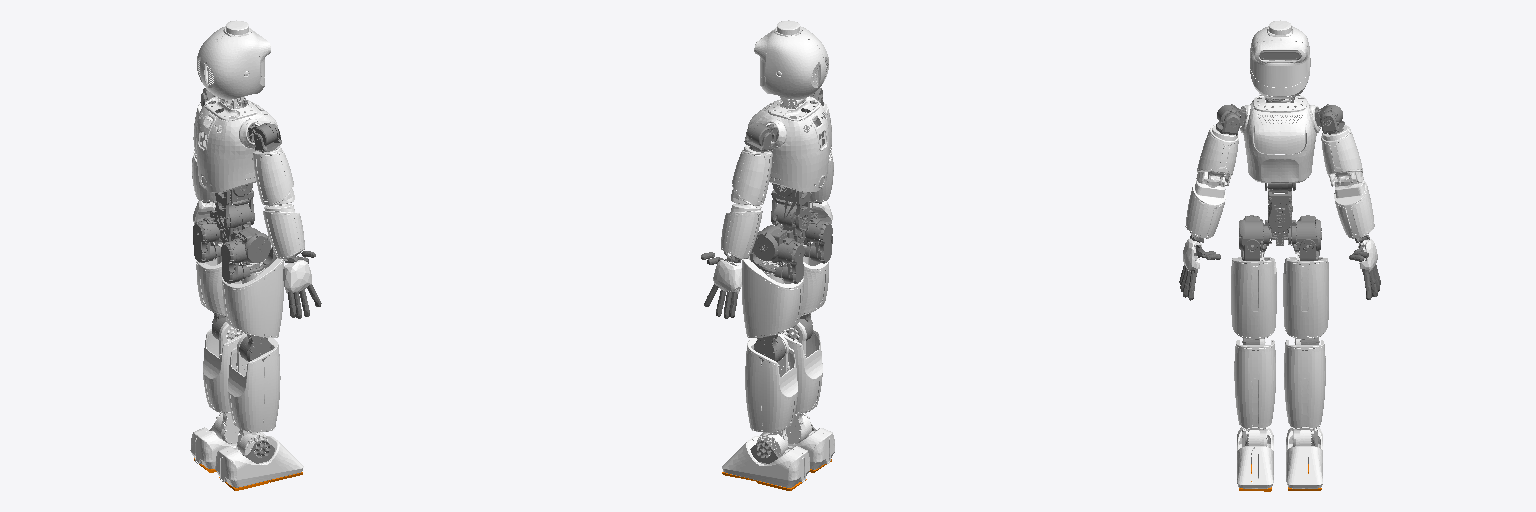
--- Render facts (derived) ---
Views: 3 orthographic renders of the robot side by side, from view 1: azimuth 30°, elevation 25°; view 2: azimuth 150°, elevation 25°; view 3: azimuth 270°, elevation 25°.
Model ergoCub with 204 links and 203 joints (57 revolute, 146 fixed), rooted at root_link, posed every joint at zero.
Links seen in each view (by area): view 1: chest, head, r_lower_leg, r_hip_3, l_lower_leg, r_ankle_2, r_upper_arm, r_forearm, l_hip_3, r_hip_2, l_ankle_2, l_hip_2 (+5 smaller); view 2: chest, head, l_lower_leg, l_hip_3, r_lower_leg, l_ankle_2, l_upper_arm, l_forearm, r_hip_3, l_hip_2, r_ankle_2, r_hip_2 (+5 smaller); view 3: chest, l_lower_leg, r_lower_leg, head, r_hip_3, l_hip_3, r_forearm, l_forearm, r_ankle_2, l_ankle_2, l_upper_arm, r_upper_arm (+4 smaller).
Boxes of the visible links, x1,y1,x2,y2 form: chest: [196, 96, 277, 192]; head: [197, 20, 270, 99]; r_lower_leg: [228, 334, 280, 455]; r_hip_3: [222, 247, 283, 337]; l_lower_leg: [203, 321, 244, 443]; r_ankle_2: [215, 436, 303, 487]; r_upper_arm: [253, 146, 294, 205]; r_forearm: [263, 203, 304, 258]; l_hip_3: [196, 242, 233, 315]; r_hip_2: [221, 236, 274, 283]; l_ankle_2: [190, 427, 265, 468]; l_hip_2: [193, 219, 221, 262]; chest: [748, 96, 828, 192]; head: [754, 20, 828, 99]; l_lower_leg: [745, 334, 797, 455]; l_hip_3: [742, 256, 803, 337]; r_lower_leg: [781, 322, 822, 444]; l_ankle_2: [722, 436, 809, 487]; l_upper_arm: [731, 145, 772, 205]; l_forearm: [721, 203, 762, 258]; r_hip_3: [792, 242, 828, 315]; l_hip_2: [750, 240, 804, 283]; r_ankle_2: [760, 428, 834, 469]; r_hip_2: [802, 218, 832, 263]; chest: [1239, 95, 1320, 183]; l_lower_leg: [1284, 339, 1325, 446]; r_lower_leg: [1234, 339, 1275, 446]; head: [1250, 20, 1310, 98]; r_hip_3: [1231, 251, 1276, 339]; l_hip_3: [1283, 251, 1328, 339]; r_forearm: [1185, 172, 1225, 238]; l_forearm: [1334, 172, 1374, 238]; r_ankle_2: [1237, 427, 1273, 488]; l_ankle_2: [1286, 427, 1322, 488]; l_upper_arm: [1321, 125, 1363, 186]; r_upper_arm: [1196, 125, 1238, 185].
Size in the robot's own frame: 0.2875 by 0.6045 by 1.47 metres.
66 mesh visuals loaded from 66 distinct referenced files (66 OBJ).

The robot description file, URDF, robot "ergoCub":
<?xml version="1.0"?>
<robot name="ergoCub">
  <link name="root_link">
    <inertial>
      <mass value="2.823751482824641"/>
      <origin xyz="0.0024748962432214403 -1.050794470993344e-4 0.023450368787955644" rpy="0 -0 0"/>
      <inertia ixx="0.005630606285299466" ixy="1.4369039688385168e-6" ixz="2.329934099458601e-5" iyy="0.004380033669258687" iyz="1.4098441290533537e-5" izz="0.003616681010808376"/>
    </inertial>
    <visual>
      <origin xyz="0 0 0" rpy="0 -0 0"/>
      <geometry>
        <mesh filename="package://ergoCub/meshes/simmechanics/sim_ecub_1-1_root_link.obj" scale="0.001 0.001 0.001"/>
      </geometry>
      <material name="">
        <color rgba="0.6 0.6 0.6 1"/>
      </material>
    </visual>
    <collision>
      <origin xyz="0 0 0" rpy="0 -0 0"/>
      <geometry>
        <box size="0 0 0"/>
      </geometry>
    </collision>
  </link>
  <joint name="l_hip_pitch" type="revolute">
    <origin xyz="0.02109999999999964 0.050500000000000836 1.942890293094024e-16" rpy="3.958535957527503e-15 3.810968172190701e-15 1.167434911886406e-16"/>
    <axis xyz="-5.772831379991284e-17 -1 -1.3843833381666392e-17"/>
    <parent link="root_link"/>
    <child link="l_hip_1"/>
    <limit lower="-0.7504915783575618" upper="1.7976891295541595" effort="1e+9" velocity="1e+9"/>
    <dynamics damping="2" friction="0"/>
  </joint>
  <link name="l_hip_1">
    <inertial>
      <mass value="2.231768868859629"/>
      <origin xyz="-0.0040154224851623455 0.028247280560774652 -6.811143992383195e-4" rpy="0 -0 0"/>
      <inertia ixx="0.002210921814931002" ixy="5.971255499379551e-5" ixz="-1.5432160879022988e-5" iyy="0.002695326128467937" iyz="-5.838535051658118e-6" izz="0.0024610381641843883"/>
    </inertial>
    <visual>
      <origin xyz="0 0 0" rpy="0 -0 0"/>
      <geometry>
        <mesh filename="package://ergoCub/meshes/simmechanics/sim_ecub_1-1_l_hip_1.obj" scale="0.001 0.001 0.001"/>
      </geometry>
      <material name="">
        <color rgba="0.6 0.6 0.6 1"/>
      </material>
    </visual>
    <collision>
      <origin xyz="0 0 0" rpy="0 -0 0"/>
      <geometry>
        <box size="0 0 0"/>
      </geometry>
    </collision>
  </link>
  <joint name="r_hip_pitch" type="revolute">
    <origin xyz="0.021099999999999643 -0.05049999999999917 -2.220446049250313e-16" rpy="3.986223624290839e-15 9.012328668422501e-14 4.978996250550603e-17"/>
    <axis xyz="-1.0880513989386065e-16 -1 1.384383338166008e-17"/>
    <parent link="root_link"/>
    <child link="r_hip_1"/>
    <limit lower="-0.7504915783575618" upper="1.7976891295541595" effort="1e+9" velocity="1e+9"/>
    <dynamics damping="2" friction="0"/>
  </joint>
  <link name="r_hip_1">
    <inertial>
      <mass value="2.2320852637398954"/>
      <origin xyz="-0.004032117730258793 -0.028249385885545365 -6.739019720393702e-4" rpy="0 -0 0"/>
      <inertia ixx="0.00221225947743564" ixy="-6.126720536020865e-5" ixz="-1.5035655169601288e-5" iyy="0.002695545891317729" iyz="6.443355522460266e-6" izz="0.0024608876750051726"/>
    </inertial>
    <visual>
      <origin xyz="0 0 0" rpy="0 -0 0"/>
      <geometry>
        <mesh filename="package://ergoCub/meshes/simmechanics/sim_ecub_1-1_r_hip_1.obj" scale="0.001 0.001 0.001"/>
      </geometry>
      <material name="">
        <color rgba="0.6 0.6 0.6 1"/>
      </material>
    </visual>
    <collision>
      <origin xyz="0 0 0" rpy="0 -0 0"/>
      <geometry>
        <box size="0 0 0"/>
      </geometry>
    </collision>
  </link>
  <joint name="torso_roll" type="revolute">
    <origin xyz="-2.23890229767886e-18 -5.551115123142428e-20 0.060500000000000095" rpy="0 -2.2470258116354473e-44 5.656623812198896e-30"/>
    <axis xyz="-1 0 1.4239886692466155e-15"/>
    <parent link="root_link"/>
    <child link="torso_1"/>
    <limit lower="-0.4014257279586958" upper="0.4014257279586958" effort="1e+9" velocity="1e+9"/>
    <dynamics damping="2" friction="0"/>
  </joint>
  <link name="torso_1">
    <inertial>
      <mass value="2.0645667"/>
      <origin xyz="-0.00963997362197503 6.168494736287859e-4 0.08244231288506354" rpy="0 -0 0"/>
      <inertia ixx="0.007406085999999999" ixy="0" ixz="0" iyy="0.0059470732999999994" iyz="0" izz="0.0031780111"/>
    </inertial>
    <visual>
      <origin xyz="0 0 0" rpy="0 -0 0"/>
      <geometry>
        <mesh filename="package://ergoCub/meshes/simmechanics/sim_ecub_1-1_torso_1.obj" scale="0.001 0.001 0.001"/>
      </geometry>
      <material name="">
        <color rgba="0.6 0.6 0.6 1"/>
      </material>
    </visual>
    <collision>
      <origin xyz="0 0 0" rpy="0 -0 0"/>
      <geometry>
        <box size="0 0 0"/>
      </geometry>
    </collision>
  </link>
  <joint name="torso_pitch" type="revolute">
    <origin xyz="-7.30886630439206e-17 -4.930380657631324e-32 0.11800000000000001" rpy="3.9719461100401744e-15 2.710505431213761e-20 1.0587911275090697e-22"/>
    <axis xyz="1.058791184074231e-22 1 4.336808689942018e-19"/>
    <parent link="torso_1"/>
    <child link="torso_2"/>
    <limit lower="-0.3141592653589793" upper="0.7853981633974483" effort="1e+9" velocity="1e+9"/>
    <dynamics damping="2" friction="0"/>
  </joint>
  <link name="torso_2">
    <inertial>
      <mass value="0.7051627057068411"/>
      <origin xyz="0.0015724674776760373 0.0036223466761378907 0.026019504666210766" rpy="0 -0 0"/>
      <inertia ixx="0.0012590296877101025" ixy="4.1986239270733835e-6" ixz="-5.398163583772818e-6" iyy="6.675525890436374e-4" iyz="7.014302140884287e-5" izz="0.001145822810927014"/>
    </inertial>
    <visual>
      <origin xyz="0 0 0" rpy="0 -0 0"/>
      <geometry>
        <mesh filename="package://ergoCub/meshes/simmechanics/sim_ecub_1-1_torso_2.obj" scale="0.001 0.001 0.001"/>
      </geometry>
      <material name="">
        <color rgba="0.6 0.6 0.6 1"/>
      </material>
    </visual>
    <collision>
      <origin xyz="0 0 0" rpy="0 -0 0"/>
      <geometry>
        <box size="0 0 0"/>
      </geometry>
    </collision>
  </link>
  <joint name="torso_yaw" type="revolute">
    <origin xyz="7.32502235717738e-17 2.561326957877574e-16 0.0644699999999999" rpy="-3.971868545919581e-15 -4.385099568445115e-23 -3.1763738272196853e-22"/>
    <axis xyz="2.084864385226231e-15 -2.114127025714114e-15 -1"/>
    <parent link="torso_2"/>
    <child link="chest"/>
    <limit lower="-0.7504915783575618" upper="0.7504915783575618" effort="1e+9" velocity="1e+9"/>
    <dynamics damping="2" friction="0"/>
  </joint>
  <link name="chest">
    <inertial>
      <mass value="8.065471632648594"/>
      <origin xyz="-0.010721051678060345 -3.482064053382885e-4 0.07611063517438793" rpy="0 -0 0"/>
      <inertia ixx="0.048454754024617776" ixy="1.7611941682820642e-4" ixz="-3.124089280569708e-4" iyy="0.044938830524554475" iyz="-1.2962048932614557e-4" izz="0.030687687298016447"/>
    </inertial>
    <visual>
      <origin xyz="0 0 0" rpy="0 -0 0"/>
      <geometry>
        <mesh filename="package://ergoCub/meshes/simmechanics/sim_ecub_1-1_chest.obj" scale="0.001 0.001 0.001"/>
      </geometry>
      <material name="">
        <color rgba="1 1 1 1"/>
      </material>
    </visual>
    <collision>
      <origin xyz="0 0 0" rpy="0 -0 0"/>
      <geometry>
        <box size="0 0 0"/>
      </geometry>
    </collision>
  </link>
  <joint name="neck_pitch" type="revolute">
    <origin xyz="0.004861512347971912 4.1253975310307907e-16 0.22529999999999994" rpy="-1.541978321110266e-15 -2.0480667158215426e-15 -1.389802281096855e-15"/>
    <axis xyz="2.6472211157644926e-18 -1 -7.807858529815144e-16"/>
    <parent link="chest"/>
    <child link="neck_2"/>
    <limit lower="-0.5235987755982988" upper="0.3839724354387525" effort="1e+9" velocity="1e+9"/>
    <dynamics damping="2" friction="0"/>
  </joint>
  <link name="neck_2">
    <inertial>
      <mass value="0.12100314943032965"/>
      <origin xyz="-0.006305773955890982 3.0141314376407138e-5 0.006373188453183354" rpy="0 -0 0"/>
      <inertia ixx="4.5383766592166864e-5" ixy="-9.375752008423039e-8" ixz="8.622664755132213e-6" iyy="3.848306673536227e-5" iyz="4.870043501244136e-8" izz="3.7535538604448367e-5"/>
    </inertial>
    <visual>
      <origin xyz="0 0 0" rpy="0 -0 0"/>
      <geometry>
        <mesh filename="package://ergoCub/meshes/simmechanics/sim_ecub_1-1_head_neck_2.obj" scale="0.001 0.001 0.001"/>
      </geometry>
      <material name="">
        <color rgba="0.6 0.6 0.6 1"/>
      </material>
    </visual>
    <collision>
      <origin xyz="0 0 0" rpy="0 -0 0"/>
      <geometry>
        <box size="0 0 0"/>
      </geometry>
    </collision>
  </link>
  <joint name="l_shoulder_pitch" type="revolute">
    <origin xyz="-0.013518676842610159 0.06704761117227499 0.12351981080941767" rpy="0.2536123238732541 -0.05203160550449479 -0.27527873241387235"/>
    <axis xyz="-3.452099717193846e-16 1.0000000000000002 3.0531133177191805e-16"/>
    <parent link="chest"/>
    <child link="l_shoulder_1"/>
    <limit lower="-2.9670597283903604" upper="0.6108652381980153" effort="1e+9" velocity="1e+9"/>
    <dynamics damping="2" friction="0"/>
  </joint>
  <link name="l_shoulder_1">
    <inertial>
      <mass value="0.7913756606310043"/>
      <origin xyz="1.4824275422014796e-4 0.06782971819041986 5.036196460999898e-4" rpy="0 -0 0"/>
      <inertia ixx="0.01" ixy="0" ixz="0" iyy="0.01" iyz="0" izz="0.01"/>
    </inertial>
    <visual>
      <origin xyz="0 0 0" rpy="0 -0 0"/>
      <geometry>
        <mesh filename="package://ergoCub/meshes/simmechanics/sim_ecub_1-1_l_shoulder_1.obj" scale="0.001 0.001 0.001"/>
      </geometry>
      <material name="">
        <color rgba="0.6 0.6 0.6 1"/>
      </material>
    </visual>
    <collision>
      <origin xyz="0 0 0" rpy="0 -0 0"/>
      <geometry>
        <box size="0 0 0"/>
      </geometry>
    </collision>
  </link>
  <joint name="r_shoulder_pitch" type="revolute">
    <origin xyz="-0.013518676842610352 -0.06704761117227452 0.12351981080941783" rpy="-0.25361232387326116 -0.05203160550449495 0.2752787324138702"/>
    <axis xyz="-2.445960101127298e-16 1 3.552713678800501e-15"/>
    <parent link="chest"/>
    <child link="r_shoulder_1"/>
    <limit lower="-2.9670597283903604" upper="0.6108652381980153" effort="1e+9" velocity="1e+9"/>
    <dynamics damping="2" friction="0"/>
  </joint>
  <link name="r_shoulder_1">
    <inertial>
      <mass value="0.7922822880502421"/>
      <origin xyz="1.7243569867328445e-4 -0.06784040318161474 4.7600094527533443e-4" rpy="0 -0 0"/>
      <inertia ixx="0.01" ixy="0" ixz="0" iyy="0.01" iyz="0" izz="0.01"/>
    </inertial>
    <visual>
      <origin xyz="0 0 0" rpy="0 -0 0"/>
      <geometry>
        <mesh filename="package://ergoCub/meshes/simmechanics/sim_ecub_1-1_r_shoulder_1.obj" scale="0.001 0.001 0.001"/>
      </geometry>
      <material name="">
        <color rgba="0.6 0.6 0.6 1"/>
      </material>
    </visual>
    <collision>
      <origin xyz="0 0 0" rpy="0 -0 0"/>
      <geometry>
        <box size="0 0 0"/>
      </geometry>
    </collision>
  </link>
  <joint name="r_shoulder_roll" type="revolute">
    <origin xyz="0.007499999999999977 -0.09330000000000004 -3.885780586188048e-16" rpy="-9.325873406851307e-15 9.520162436160717e-15 -4.718447854656912e-15"/>
    <axis xyz="-1.0000000000000007 8.760353553682006e-16 -4.510281037539194e-16"/>
    <parent link="r_shoulder_1"/>
    <child link="r_shoulder_2"/>
    <limit lower="-0.2617993877991494" upper="2.6179938779914944" effort="1e+9" velocity="1e+9"/>
    <dynamics damping="2" friction="0"/>
  </joint>
  <link name="r_shoulder_2">
    <inertial>
      <mass value="0.4392272062642899"/>
      <origin xyz="0.005113618901434032 -2.13348557806331e-4 -0.020425805469504787" rpy="0 -0 0"/>
      <inertia ixx="0.01" ixy="0" ixz="0" iyy="0.01" iyz="0" izz="0.01"/>
    </inertial>
    <visual>
      <origin xyz="0 0 0" rpy="0 -0 0"/>
      <geometry>
        <mesh filename="package://ergoCub/meshes/simmechanics/sim_ecub_1-1_r_shoulder_2.obj" scale="0.001 0.001 0.001"/>
      </geometry>
      <material name="">
        <color rgba="0.6 0.6 0.6 1"/>
      </material>
    </visual>
    <collision>
      <origin xyz="0 0 0" rpy="0 -0 0"/>
      <geometry>
        <box size="0 0 0"/>
      </geometry>
    </collision>
  </link>
  <joint name="r_arm_ft_sensor" type="fixed">
    <origin xyz="-0.006850000000000004 -5.551115123125783e-17 -0.054300000000000015" rpy="-2.220446049250312e-16 -2.3592239273284576e-16 1.6098233857064762e-15"/>
    <parent link="r_shoulder_2"/>
    <child link="r_shoulder_3"/>
  </joint>
  <link name="r_shoulder_3">
    <inertial>
      <mass value="0.271466272759966"/>
      <origin xyz="-8.31167799586717e-5 -3.0654831449927755e-5 -0.007966545320293866" rpy="0 -0 0"/>
      <inertia ixx="0.01" ixy="0" ixz="0" iyy="0.01" iyz="0" izz="0.01"/>
    </inertial>
    <visual>
      <origin xyz="0 0 0" rpy="0 -0 0"/>
      <geometry>
        <mesh filename="package://ergoCub/meshes/simmechanics/sim_ecub_1-1_r_shoulder_3.obj" scale="0.001 0.001 0.001"/>
      </geometry>
      <material name="">
        <color rgba="0.6 0.6 0.6 1"/>
      </material>
    </visual>
    <collision>
      <origin xyz="0 0 0" rpy="0 -0 0"/>
      <geometry>
        <box size="0 0 0"/>
      </geometry>
    </collision>
  </link>
  <joint name="r_shoulder_yaw" type="revolute">
    <origin xyz="-7.979727989493313e-17 5.551115123125783e-17 -0.02249999999999998" rpy="-5.55111512312578e-17 -3.0531133177191805e-16 7.660538869913577e-15"/>
    <axis xyz="2.567390744445681e-16 2.775557561562927e-17 1.0000000000000004"/>
    <parent link="r_shoulder_3"/>
    <child link="r_upper_arm"/>
    <limit lower="-0.8726646259971648" upper="1.3962634015954636" effort="1e+9" velocity="1e+9"/>
    <dynamics damping="2" friction="0"/>
  </joint>
  <link name="r_upper_arm">
    <inertial>
      <mass value="1.7722348545631907"/>
      <origin xyz="1.4699786491786937e-4 -0.0023354938418406186 -0.05011711267210951" rpy="0 -0 0"/>
      <inertia ixx="0.0034219198528275844" ixy="3.081029189714289e-5" ixz="2.5743017599563002e-5" iyy="0.003510878854314856" iyz="-1.0938393403810045e-4" izz="0.0015765483711818404"/>
    </inertial>
    <visual>
      <origin xyz="0 0 0" rpy="0 -0 0"/>
      <geometry>
        <mesh filename="package://ergoCub/meshes/simmechanics/sim_ecub_1-1_r_upperarm.obj" scale="0.001 0.001 0.001"/>
      </geometry>
      <material name="">
        <color rgba="1 1 1 1"/>
      </material>
    </visual>
    <collision>
      <origin xyz="0 0 0" rpy="0 -0 0"/>
      <geometry>
        <box size="0 0 0"/>
      </geometry>
    </collision>
  </link>
  <joint name="r_elbow" type="revolute">
    <origin xyz="0.01000000000000002 0.0015000000000005287 -0.12369999999999992" rpy="-4.1633363423443286e-16 -5.842548667089886e-15 -8.326672684688652e-15"/>
    <axis xyz="3.001071613439684e-16 -1.0000000000000027 1.2712053631958044e-14"/>
    <parent link="r_upper_arm"/>
    <child link="r_forearm"/>
    <limit lower="-0.05235987755982989" upper="1.3089969389957472" effort="1e+9" velocity="1e+9"/>
    <dynamics damping="2" friction="0"/>
  </joint>
  <link name="r_forearm">
    <inertial>
      <mass value="1.4760712424977045"/>
      <origin xyz="-0.01830687629472739 -0.002214887320910963 -0.08814943647449926" rpy="0 -0 0"/>
      <inertia ixx="0.009999999999999998" ixy="0" ixz="0" iyy="0.01" iyz="0" izz="0.01"/>
    </inertial>
    <visual>
      <origin xyz="0 0 0" rpy="0 -0 0"/>
      <geometry>
        <mesh filename="package://ergoCub/meshes/simmechanics/sim_ecub_1-1_r_forearm.obj" scale="0.001 0.001 0.001"/>
      </geometry>
      <material name="">
        <color rgba="1 1 1 1"/>
      </material>
    </visual>
    <collision>
      <origin xyz="0 0 0" rpy="0 -0 0"/>
      <geometry>
        <box size="0 0 0"/>
      </geometry>
    </collision>
  </link>
  <joint name="r_wrist_yaw" type="revolute">
    <origin xyz="-0.014999999999999767 -0.0019999999999965323 -0.1943500000000011" rpy="-2.081668171172164e-15 -1.1587952819525071e-14 -2.997602166487915e-15"/>
    <axis xyz="5.5788706987414416e-15 -1.2628786905111175e-14 1.000000000000002"/>
    <parent link="r_forearm"/>
    <child link="r_wrist_1"/>
    <limit lower="-1.6057029118347832" upper="1.6057029118347832" effort="1e+9" velocity="1e+9"/>
    <dynamics damping="2" friction="0"/>
  </joint>
  <link name="r_wrist_1">
    <inertial>
      <mass value="0.12269276206782376"/>
      <origin xyz="-1.4544607175177166e-4 1.559247070407055e-4 0.022377800821402394" rpy="0 -0 0"/>
      <inertia ixx="0.01" ixy="0" ixz="0" iyy="0.01" iyz="0" izz="0.01"/>
    </inertial>
    <visual>
      <origin xyz="0 0 0" rpy="0 -0 0"/>
      <geometry>
        <mesh filename="package://ergoCub/meshes/simmechanics/sim_ecub_1-1_r_wrist_1.obj" scale="0.001 0.001 0.001"/>
      </geometry>
      <material name="">
        <color rgba="0.6 0.6 0.6 1"/>
      </material>
    </visual>
    <collision>
      <origin xyz="0 0 0" rpy="0 -0 0"/>
      <geometry>
        <box size="0 0 0"/>
      </geometry>
    </collision>
  </link>
  <joint name="r_wrist_roll" type="revolute">
    <origin xyz="1.4224732503009818e-16 2.498001805406602e-16 1.3877787807814457e-16" rpy="3.8857805861880484e-16 5.551115123125783e-17 -1.6653345369377353e-16"/>
    <axis xyz="0.9999999999999997 -2.480654570646835e-16 -1.873501354054953e-16"/>
    <parent link="r_wrist_1"/>
    <child link="r_wrist_2"/>
    <limit lower="-1.0821041362364843" upper="0.9075712110370514" effort="1e+9" velocity="1e+9"/>
    <dynamics damping="2" friction="0"/>
  </joint>
  <link name="r_wrist_2">
    <inertial>
      <mass value="0.021188357245777188"/>
      <origin xyz="5.05499045400093e-11 7.897372606293362e-4 -0.004696960055006527" rpy="0 -0 0"/>
      <inertia ixx="0.01" ixy="0" ixz="0" iyy="0.01" iyz="0" izz="0.01"/>
    </inertial>
    <visual>
      <origin xyz="0 0 0" rpy="0 -0 0"/>
      <geometry>
        <mesh filename="package://ergoCub/meshes/simmechanics/sim_ecub_1-1_r_wrist_2.obj" scale="0.001 0.001 0.001"/>
      </geometry>
      <material name="">
        <color rgba="0.5 0.5 0.5 1"/>
      </material>
    </visual>
    <collision>
      <origin xyz="0 0 0" rpy="0 -0 0"/>
      <geometry>
        <box size="0 0 0"/>
      </geometry>
    </collision>
  </link>
  <joint name="r_wrist_pitch" type="revolute">
    <origin xyz="-4.85722573273506e-17 0 2.7755575615628914e-17" rpy="2.2204460492503136e-16 -5.551115123125783e-17 -3.88578058618805e-16"/>
    <axis xyz="4.128641872824801e-16 -0.9999999999999998 -8.049116928532385e-16"/>
    <parent link="r_wrist_2"/>
    <child link="r_hand_palm"/>
    <limit lower="-0.5585053606381855" upper="0.5585053606381855" effort="1e+9" velocity="1e+9"/>
    <dynamics damping="2" friction="0"/>
  </joint>
  <link name="r_hand_palm">
    <inertial>
      <mass value="0.2020068404688116"/>
      <origin xyz="-0.003982157972782507 -0.0021135289059891482 -0.05842371394186491" rpy="0 -0 0"/>
      <inertia ixx="0.01" ixy="0" ixz="0" iyy="0.01" iyz="0" izz="0.01"/>
    </inertial>
    <visual>
      <origin xyz="0 0 0" rpy="0 -0 0"/>
      <geometry>
        <mesh filename="package://ergoCub/meshes/simmechanics/sim_ecub_1-1_r_hand_palm.obj" scale="0.001 0.001 0.001"/>
      </geometry>
      <material name="">
        <color rgba="1 1 1 1"/>
      </material>
    </visual>
    <collision>
      <origin xyz="0 0 0" rpy="0 -0 0"/>
      <geometry>
        <box size="0 0 0"/>
      </geometry>
    </collision>
  </link>
  <joint name="r_index_add" type="revolute">
    <origin xyz="0.022499999999999992 0.0015000000000002234 -0.06859999999999983" rpy="-1.6833790438334957e-15 0.29670597283904 3.141592653589792"/>
    <axis xyz="-5.389323627044831e-16 -0.9999999999999999 1.6046911875538946e-15"/>
    <parent link="r_hand_palm"/>
    <child link="r_hand_index_1"/>
    <limit lower="0" upper="0.2617993877991494" effort="1e+9" velocity="1e+9"/>
    <dynamics damping="2" friction="0"/>
  </joint>
  <link name="r_hand_index_1">
    <inertial>
      <mass value="0.019232477290189804"/>
      <origin xyz="-0.008420124408709713 0.003850331678233287 -0.01714942611279774" rpy="0 -0 0"/>
      <inertia ixx="0.01" ixy="0" ixz="0" iyy="0.01" iyz="0" izz="0.01"/>
    </inertial>
    <visual>
      <origin xyz="0 0 0" rpy="0 -0 0"/>
      <geometry>
        <mesh filename="package://ergoCub/meshes/simmechanics/sim_ecub_1-1_r_hand_index_1.obj" scale="0.001 0.001 0.001"/>
      </geometry>
      <material name="">
        <color rgba="0.5 0.5 0.5 1"/>
      </material>
    </visual>
    <collision>
      <origin xyz="0 0 0" rpy="0 -0 0"/>
      <geometry>
        <box size="0 0 0"/>
      </geometry>
    </collision>
  </link>
  <joint name="r_middle_prox" type="revolute">
    <origin xyz="0.009599999988882939 0.00150000000000039 -0.1030000000010361" rpy="-1.8596235662471376e-15 -1.0793124727292991e-10 3.1415926535897927"/>
    <axis xyz="-0.9999999999999996 -4.562322741819007e-15 1.079337105802658e-10"/>
    <parent link="r_hand_palm"/>
    <child link="r_hand_middle_1"/>
    <limit lower="0" upper="1.5707963267948966" effort="1e+9" velocity="1e+9"/>
    <dynamics damping="2" friction="0"/>
  </joint>
  <link name="r_hand_middle_1">
    <inertial>
      <mass value="0.007486365997467528"/>
      <origin xyz="5.610258533731913e-5 0.0011131046827904112 -0.01742880983276912" rpy="0 -0 0"/>
      <inertia ixx="0.01" ixy="0" ixz="0" iyy="0.01" iyz="0" izz="0.01"/>
    </inertial>
    <visual>
      <origin xyz="0 0 0" rpy="0 -0 0"/>
      <geometry>
        <mesh filename="package://ergoCub/meshes/simmechanics/sim_ecub_1-1_r_hand_middle_1.obj" scale="0.001 0.001 0.001"/>
      </geometry>
      <material name="">
        <color rgba="0.5 0.5 0.5 1"/>
      </material>
    </visual>
    <collision>
      <origin xyz="0 0 0" rpy="0 -0 0"/>
      <geometry>
        <box size="0 0 0"/>
      </geometry>
    </collision>
  </link>
  <joint name="r_pinkie_prox" type="revolute">
    <origin xyz="-0.035982680943166166 0.002377759579109573 -0.09206828131946371" rpy="4.1095343980510334e-4 -0.08726646259972864 3.1154127148098776"/>
    <axis xyz="-0.9999999999999998 4.364801434782878e-15 0"/>
    <parent link="r_hand_palm"/>
    <child link="r_hand_pinkie_1"/>
    <limit lower="0" upper="1.5707963267948966" effort="1e+9" velocity="1e+9"/>
    <dynamics damping="2" friction="0"/>
  </joint>
  <link name="r_hand_pinkie_1">
    <inertial>
      <mass value="0.006357585733638135"/>
      <origin xyz="3.616260147435227e-5 0.0012147050941129778 -0.015053109692718447" rpy="0 -0 0"/>
      <inertia ixx="0.01" ixy="0" ixz="0" iyy="0.01" iyz="0" izz="0.01"/>
    </inertial>
    <visual>
      <origin xyz="0 0 0" rpy="0 -0 0"/>
      <geometry>
        <mesh filename="package://ergoCub/meshes/simmechanics/sim_ecub_1-1_r_hand_pinkie_1.obj" scale="0.001 0.001 0.001"/>
      </geometry>
      <material name="">
        <color rgba="0.5 0.5 0.5 1"/>
      </material>
    </visual>
    <collision>
      <origin xyz="0 0 0" rpy="0 -0 0"/>
      <geometry>
        <box size="0 0 0"/>
      </geometry>
    </collision>
  </link>
  <joint name="r_ring_prox" type="revolute">
    <origin xyz="-0.015417755568684424 0.001849813728471178 -0.09788067183717986" rpy="2.019965811910767e-14 -0.08726646270762471 3.11541271480963"/>
    <axis xyz="-0.9999999999999997 -2.498435601042699e-13 1.0789123761067998e-10"/>
    <parent link="r_hand_palm"/>
    <child link="r_hand_ring_1"/>
    <limit lower="0" upper="1.5707963267948966" effort="1e+9" velocity="1e+9"/>
    <dynamics damping="2" friction="0"/>
  </joint>
  <link name="r_hand_ring_1">
    <inertial>
      <mass value="0.007486365997467528"/>
      <origin xyz="5.6102585337293107e-5 0.0011131045999587252 -0.017428809839565573" rpy="0 -0 0"/>
      <inertia ixx="0.01" ixy="0" ixz="0" iyy="0.01" iyz="0" izz="0.01"/>
    </inertial>
    <visual>
      <origin xyz="0 0 0" rpy="0 -0 0"/>
      <geometry>
        <mesh filename="package://ergoCub/meshes/simmechanics/sim_ecub_1-1_r_hand_ring_1.obj" scale="0.001 0.001 0.001"/>
      </geometry>
      <material name="">
        <color rgba="0.5 0.5 0.5 1"/>
      </material>
    </visual>
    <collision>
      <origin xyz="0 0 0" rpy="0 -0 0"/>
      <geometry>
        <box size="0 0 0"/>
      </geometry>
    </collision>
  </link>
  <joint name="r_thumb_add" type="revolute">
    <origin xyz="0.023374863252664337 0.003000000000000058 -0.03452383847607743" rpy="1.566711369727914e-15 -0.226892802651332 -5.127419028200447e-16"/>
    <axis xyz="-1.0793213545134961e-10 2.4089270891491094e-15 0.9999999999999998"/>
    <parent link="r_hand_palm"/>
    <child link="r_hand_thumb_1"/>
    <limit lower="0" upper="1.7453292519943295" effort="1e+9" velocity="1e+9"/>
    <dynamics damping="2" friction="0"/>
  </joint>
  <link name="r_hand_thumb_1">
    <inertial>
      <mass value="0.02894174189037044"/>
      <origin xyz="0.0183756324403817 -4.55521018183358e-5 0.002126473485347669" rpy="0 -0 0"/>
      <inertia ixx="0.01" ixy="0" ixz="0" iyy="0.01" iyz="0" izz="0.01"/>
    </inertial>
    <visual>
      <origin xyz="0 0 0" rpy="0 -0 0"/>
      <geometry>
        <mesh filename="package://ergoCub/meshes/simmechanics/sim_ecub_1-1_r_hand_thumb_1.obj" scale="0.001 0.001 0.001"/>
      </geometry>
      <material name="">
        <color rgba="0.5 0.5 0.5 1"/>
      </material>
    </visual>
    <collision>
      <origin xyz="0 0 0" rpy="0 -0 0"/>
      <geometry>
        <box size="0 0 0"/>
      </geometry>
    </collision>
  </link>
  <joint name="r_thumb_prox" type="revolute">
    <origin xyz="0.0380746544995605 0.003469109580325286 -0.0036017448035497446" rpy="-1.7697290685198344 -0.13749152761469902 -2.965379613992927"/>
    <axis xyz="9.992007221626409e-16 -1.1102230246251565e-15 -0.9999999999999997"/>
    <parent link="r_hand_thumb_1"/>
    <child link="r_hand_thumb_2"/>
    <limit lower="0" upper="1.5707963267948966" effort="1e+9" velocity="1e+9"/>
    <dynamics damping="2" friction="0"/>
  </joint>
  <link name="r_hand_thumb_2">
    <inertial>
      <mass value="0.00669603218404702"/>
      <origin xyz="-0.014887264468035837 -0.0011329726380328586 6.26600593671145e-5" rpy="0 -0 0"/>
      <inertia ixx="0.01" ixy="0" ixz="0" iyy="0.01" iyz="0" izz="0.01"/>
    </inertial>
    <visual>
      <origin xyz="0 0 0" rpy="0 -0 0"/>
      <geometry>
        <mesh filename="package://ergoCub/meshes/simmechanics/sim_ecub_1-1_r_hand_thumb_2.obj" scale="0.001 0.001 0.001"/>
      </geometry>
      <material name="">
        <color rgba="0.5 0.5 0.5 1"/>
      </material>
    </visual>
    <collision>
      <origin xyz="0 0 0" rpy="0 -0 0"/>
      <geometry>
        <box size="0 0 0"/>
      </geometry>
    </collision>
  </link>
  <joint name="r_thumb_dist" type="revolute">
    <origin xyz="-0.035000000003687984 0.0014999999936707586 -1.0737244426906045e-12" rpy="-1.87424381570267e-11 1.845751329554446e-11 3.1415926535883125"/>
    <axis xyz="1.8458673825549887e-11 1.8743298579870785e-11 -0.9999999999999999"/>
    <parent link="r_hand_thumb_2"/>
    <child link="r_hand_thumb_3"/>
    <limit lower="0" upper="1.7697638615222502" effort="1e+9" velocity="1e+9"/>
    <dynamics damping="2" friction="0"/>
  </joint>
  <link name="r_hand_thumb_3">
    <inertial>
      <mass value="0.00683159462238797"/>
      <origin xyz="0.016086236544425966 0.0026526877650291103 4.703179416121195e-5" rpy="0 -0 0"/>
      <inertia ixx="0.01" ixy="0" ixz="0" iyy="0.01" iyz="0" izz="0.01"/>
    </inertial>
    <visual>
      <origin xyz="0 0 0" rpy="0 -0 0"/>
      <geometry>
        <mesh filename="package://ergoCub/meshes/simmechanics/sim_ecub_1-1_r_hand_thumb_3.obj" scale="0.001 0.001 0.001"/>
      </geometry>
      <material name="">
        <color rgba="0.5 0.5 0.5 1"/>
      </material>
    </visual>
    <collision>
      <origin xyz="0 0 0" rpy="0 -0 0"/>
      <geometry>
        <box size="0 0 0"/>
      </geometry>
    </collision>
  </link>
  <joint name="r_ring_dist" type="revolute">
    <origin xyz="-1.498102770308707e-11 -0.0015000000002765024 -0.040000000000737446" rpy="-5.828670879282074e-16 1.0789557441936992e-10 2.461919557106285e-13"/>
    <axis xyz="-0.9999999999999999 2.4672971998818127e-13 -1.0789569585001324e-10"/>
    <parent link="r_hand_ring_1"/>
    <child link="r_hand_ring_2"/>
    <limit lower="0" upper="1.7994344588061537" effort="1e+9" velocity="1e+9"/>
    <dynamics damping="2" friction="0"/>
  </joint>
  <link name="r_hand_ring_2">
    <inertial>
      <mass value="0.007251413355667432"/>
      <origin xyz="4.43251343077225e-5 0.00275470906266162 -0.018890876418029168" rpy="0 -0 0"/>
      <inertia ixx="0.01" ixy="0" ixz="0" iyy="0.01" iyz="0" izz="0.01"/>
    </inertial>
    <visual>
      <origin xyz="0 0 0" rpy="0 -0 0"/>
      <geometry>
        <mesh filename="package://ergoCub/meshes/simmechanics/sim_ecub_1-1_r_hand_ring_2.obj" scale="0.001 0.001 0.001"/>
      </geometry>
      <material name="">
        <color rgba="0.5 0.5 0.5 1"/>
      </material>
    </visual>
    <collision>
      <origin xyz="0 0 0" rpy="0 -0 0"/>
      <geometry>
        <box size="0 0 0"/>
      </geometry>
    </collision>
  </link>
  <joint name="r_pinkie_dist" type="revolute">
    <origin xyz="4.5102810375396984e-17 -0.001514193309379297 -0.03499938883211873" rpy="-0.0012956915198213642 -1.8735013540549517e-16 -2.775557561562892e-16"/>
    <axis xyz="-0.9999999999999999 9.036247971209683e-16 -2.4586692098222613e-15"/>
    <parent link="r_hand_pinkie_1"/>
    <child link="r_hand_pinkie_2"/>
    <limit lower="0" upper="1.7226399717184033" effort="1e+9" velocity="1e+9"/>
    <dynamics damping="2" friction="0"/>
  </joint>
  <link name="r_hand_pinkie_2">
    <inertial>
      <mass value="0.007240237490764073"/>
      <origin xyz="2.1391072559044655e-5 0.0027712863562942003 -0.018930305880602127" rpy="0 -0 0"/>
      <inertia ixx="0.01" ixy="0" ixz="0" iyy="0.01" iyz="0" izz="0.01"/>
    </inertial>
    <visual>
      <origin xyz="0 0 0" rpy="0 -0 0"/>
      <geometry>
        <mesh filename="package://ergoCub/meshes/simmechanics/sim_ecub_1-1_r_hand_pinkie_2.obj" scale="0.001 0.001 0.001"/>
      </geometry>
      <material name="">
        <color rgba="0.5 0.5 0.5 1"/>
      </material>
    </visual>
    <collision>
      <origin xyz="0 0 0" rpy="0 -0 0"/>
      <geometry>
        <box size="0 0 0"/>
      </geometry>
    </collision>
  </link>
  <joint name="r_middle_dist" type="revolute">
    <origin xyz="-1.5434174771566944e-11 -0.0014999999999999736 -0.0399999999989637" rpy="-7.535550930470877e-8 1.0793281546295219e-10 0"/>
    <axis xyz="-0.9999999999999998 -2.0695253452753748e-15 -1.0792969296086812e-10"/>
    <parent link="r_hand_middle_1"/>
    <child link="r_hand_middle_2"/>
    <limit lower="0" upper="1.7994344588061537" effort="1e+9" velocity="1e+9"/>
    <dynamics damping="2" friction="0"/>
  </joint>
  <link name="r_hand_middle_2">
    <inertial>
      <mass value="0.007251413355667432"/>
      <origin xyz="4.432513430769475e-5 0.0027547091926723166 -0.018890876399070666" rpy="0 -0 0"/>
      <inertia ixx="0.01" ixy="0" ixz="0" iyy="0.01" iyz="0" izz="0.01"/>
    </inertial>
    <visual>
      <origin xyz="0 0 0" rpy="0 -0 0"/>
      <geometry>
        <mesh filename="package://ergoCub/meshes/simmechanics/sim_ecub_1-1_r_hand_middle_2.obj" scale="0.001 0.001 0.001"/>
      </geometry>
      <material name="">
        <color rgba="0.5 0.5 0.5 1"/>
      </material>
    </visual>
    <collision>
      <origin xyz="0 0 0" rpy="0 -0 0"/>
      <geometry>
        <box size="0 0 0"/>
      </geometry>
    </collision>
  </link>
  <joint name="r_index_prox" type="revolute">
    <origin xyz="-0.009192533317427393 5.551115123125783e-17 -0.030713451316238316" rpy="-3.0531133177191805e-16 -2.0816681711721685e-17 0"/>
    <axis xyz="-0.9999999999999993 3.434752482434078e-15 -1.672273430841644e-15"/>
    <parent link="r_hand_index_1"/>
    <child link="r_hand_index_2"/>
    <limit lower="0" upper="1.5707963267948966" effort="1e+9" velocity="1e+9"/>
    <dynamics damping="2" friction="0"/>
  </joint>
  <link name="r_hand_index_2">
    <inertial>
      <mass value="0.007486365997467528"/>
      <origin xyz="5.610258533736423e-5 0.0011131050125119946 -0.01742880980571504" rpy="0 -0 0"/>
      <inertia ixx="0.01" ixy="0" ixz="0" iyy="0.01" iyz="0" izz="0.01"/>
    </inertial>
    <visual>
      <origin xyz="0 0 0" rpy="0 -0 0"/>
      <geometry>
        <mesh filename="package://ergoCub/meshes/simmechanics/sim_ecub_1-1_r_hand_index_2.obj" scale="0.001 0.001 0.001"/>
      </geometry>
      <material name="">
        <color rgba="0.5 0.5 0.5 1"/>
      </material>
    </visual>
    <collision>
      <origin xyz="0 0 0" rpy="0 -0 0"/>
      <geometry>
        <box size="0 0 0"/>
      </geometry>
    </collision>
  </link>
  <joint name="r_index_dist" type="revolute">
    <origin xyz="4.163336342344337e-17 -0.0014999999999998903 -0.040000000000000036" rpy="1.942890293094024e-16 3.469446951953614e-17 1.665334536937736e-16"/>
    <axis xyz="-0.9999999999999993 -2.0122792321330975e-16 -4.510281037539697e-16"/>
    <parent link="r_hand_index_2"/>
    <child link="r_hand_index_3"/>
    <limit lower="0" upper="1.7994344588061537" effort="1e+9" velocity="1e+9"/>
    <dynamics damping="2" friction="0"/>
  </joint>
  <link name="r_hand_index_3">
    <inertial>
      <mass value="0.007251413355667432"/>
      <origin xyz="4.432513430773638e-5 0.0027547026217409343 -0.01889087735725714" rpy="0 -0 0"/>
      <inertia ixx="0.01" ixy="0" ixz="0" iyy="0.01" iyz="0" izz="0.01"/>
    </inertial>
    <visual>
      <origin xyz="0 0 0" rpy="0 -0 0"/>
      <geometry>
        <mesh filename="package://ergoCub/meshes/simmechanics/sim_ecub_1-1_r_hand_index_3.obj" scale="0.001 0.001 0.001"/>
      </geometry>
      <material name="">
        <color rgba="0.5 0.5 0.5 1"/>
      </material>
    </visual>
    <collision>
      <origin xyz="0 0 0" rpy="0 -0 0"/>
      <geometry>
        <box size="0 0 0"/>
      </geometry>
    </collision>
  </link>
  <joint name="l_shoulder_roll" type="revolute">
    <origin xyz="0.005000000000000011 0.09329999999999987 -3.0531133177191805e-16" rpy="2.6895152771544417e-14 1.790234627208065e-15 -2.3314683517128287e-15"/>
    <axis xyz="1 4.891920202255013e-16 3.3029134982598896e-15"/>
    <parent link="l_shoulder_1"/>
    <child link="l_shoulder_2"/>
    <limit lower="-0.2617993877991494" upper="2.6179938779914944" effort="1e+9" velocity="1e+9"/>
    <dynamics damping="2" friction="0"/>
  </joint>
  <link name="l_shoulder_2">
    <inertial>
      <mass value="0.44093319265387243"/>
      <origin xyz="0.007519395712385758 1.8727197477702573e-4 -0.020486062588588566" rpy="0 -0 0"/>
      <inertia ixx="0.01" ixy="0" ixz="0" iyy="0.01" iyz="0" izz="0.01"/>
    </inertial>
    <visual>
      <origin xyz="0 0 0" rpy="0 -0 0"/>
      <geometry>
        <mesh filename="package://ergoCub/meshes/simmechanics/sim_ecub_1-1_l_shoulder_2.obj" scale="0.001 0.001 0.001"/>
      </geometry>
      <material name="">
        <color rgba="0.6 0.6 0.6 1"/>
      </material>
    </visual>
    <collision>
      <origin xyz="0 0 0" rpy="0 -0 0"/>
      <geometry>
        <box size="0 0 0"/>
      </geometry>
    </collision>
  </link>
  <joint name="l_arm_ft_sensor" type="fixed">
    <origin xyz="-0.004349999999999986 -2.7755575615628914e-17 -0.05430000000000004" rpy="2.2204460492503136e-16 6.938893903907228e-18 1.4988010832439621e-15"/>
    <parent link="l_shoulder_2"/>
    <child link="l_shoulder_3"/>
  </joint>
  <link name="l_shoulder_3">
    <inertial>
      <mass value="0.271466272759966"/>
      <origin xyz="8.311677995862313e-5 3.065483169523153e-5 -0.007966545320293866" rpy="0 -0 0"/>
      <inertia ixx="0.01" ixy="0" ixz="0" iyy="0.01" iyz="0" izz="0.01"/>
    </inertial>
    <visual>
      <origin xyz="0 0 0" rpy="0 -0 0"/>
      <geometry>
        <mesh filename="package://ergoCub/meshes/simmechanics/sim_ecub_1-1_l_shoulder_3.obj" scale="0.001 0.001 0.001"/>
      </geometry>
      <material name="">
        <color rgba="0.6 0.6 0.6 1"/>
      </material>
    </visual>
    <collision>
      <origin xyz="0 0 0" rpy="0 -0 0"/>
      <geometry>
        <box size="0 0 0"/>
      </geometry>
    </collision>
  </link>
  <joint name="l_shoulder_yaw" type="revolute">
    <origin xyz="4.163336342344337e-17 -5.551115123125783e-17 -0.022499999999999937" rpy="-3.3029134982598486e-15 -3.002459392220658e-14 6.383782391594671e-15"/>
    <axis xyz="-3.0080105073437835e-14 3.191891195797326e-15 -0.9999999999999977"/>
    <parent link="l_shoulder_3"/>
    <child link="l_upper_arm"/>
    <limit lower="-0.8726646259971648" upper="1.3962634015954636" effort="1e+9" velocity="1e+9"/>
    <dynamics damping="2" friction="0"/>
  </joint>
  <link name="l_upper_arm">
    <inertial>
      <mass value="1.7708527474969076"/>
      <origin xyz="1.3049265136780286e-4 0.0022530185376357925 -0.050065038959805325" rpy="0 -0 0"/>
      <inertia ixx="0.003417154867942194" ixy="-2.952452997527239e-5" ixz="2.6752323704214618e-5" iyy="0.0035109035513553296" iyz="1.0388063737032838e-4" izz="0.0015716101936389657"/>
    </inertial>
    <visual>
      <origin xyz="0 0 0" rpy="0 -0 0"/>
      <geometry>
        <mesh filename="package://ergoCub/meshes/simmechanics/sim_ecub_1-1_l_upperarm.obj" scale="0.001 0.001 0.001"/>
      </geometry>
      <material name="">
        <color rgba="1 1 1 1"/>
      </material>
    </visual>
    <collision>
      <origin xyz="0 0 0" rpy="0 -0 0"/>
      <geometry>
        <box size="0 0 0"/>
      </geometry>
    </collision>
  </link>
  <joint name="l_elbow" type="revolute">
    <origin xyz="0.009999999999996342 -0.0014999999999996405 -0.12369999999999956" rpy="-3.1641356201817088e-15 -3.134298376394895e-14 -7.827072323607395e-15"/>
    <axis xyz="-4.215378046622413e-16 -0.9999999999999953 6.5780714209038095e-15"/>
    <parent link="l_upper_arm"/>
    <child link="l_forearm"/>
    <limit lower="-0.05235987755982989" upper="1.3089969389957472" effort="1e+9" velocity="1e+9"/>
    <dynamics damping="2" friction="0"/>
  </joint>
  <link name="l_forearm">
    <inertial>
      <mass value="1.4604487031386884"/>
      <origin xyz="-0.018553263328673478 0.0023119252259846124 -0.08919372240797706" rpy="0 -0 0"/>
      <inertia ixx="0.009999999999999998" ixy="0" ixz="0" iyy="0.010000000000000002" iyz="0" izz="0.01"/>
    </inertial>
    <visual>
      <origin xyz="0 0 0" rpy="0 -0 0"/>
      <geometry>
        <mesh filename="package://ergoCub/meshes/simmechanics/sim_ecub_1-1_l_forearm.obj" scale="0.001 0.001 0.001"/>
      </geometry>
      <material name="">
        <color rgba="1 1 1 1"/>
      </material>
    </visual>
    <collision>
      <origin xyz="0 0 0" rpy="0 -0 0"/>
      <geometry>
        <box size="0 0 0"/>
      </geometry>
    </collision>
  </link>
  <joint name="l_wrist_yaw" type="revolute">
    <origin xyz="-0.014999999999992455 0.0020000000000007234 -0.1943500000000013" rpy="-2.775557561562897e-16 -7.741723928589295e-14 -5.551115123125795e-17"/>
    <axis xyz="-3.1023794644369224e-14 2.9420910152566676e-15 -0.9999999999999981"/>
    <parent link="l_forearm"/>
    <child link="l_wrist_1"/>
    <limit lower="-1.6057029118347832" upper="1.6057029118347832" effort="1e+9" velocity="1e+9"/>
    <dynamics damping="2" friction="0"/>
  </joint>
  <link name="l_wrist_1">
    <inertial>
      <mass value="0.1226928"/>
      <origin xyz="1.4545073498396788e-4 -1.5595311920038601e-4 0.022377795694245" rpy="0 -0 0"/>
      <inertia ixx="0.01" ixy="0" ixz="0" iyy="0.01" iyz="0" izz="0.01"/>
    </inertial>
    <visual>
      <origin xyz="0 0 0" rpy="0 -0 0"/>
      <geometry>
        <mesh filename="package://ergoCub/meshes/simmechanics/sim_ecub_1-1_l_wrist_1.obj" scale="0.001 0.001 0.001"/>
      </geometry>
      <material name="">
        <color rgba="0.6 0.6 0.6 1"/>
      </material>
    </visual>
    <collision>
      <origin xyz="0 0 0" rpy="0 -0 0"/>
      <geometry>
        <box size="0 0 0"/>
      </geometry>
    </collision>
  </link>
  <joint name="l_wrist_roll" type="revolute">
    <origin xyz="2.7755575615628914e-17 1.942890293094024e-16 2.7755575615628914e-17" rpy="3.885780586188047e-16 9.71445146547012e-17 -4.440892098500624e-16"/>
    <axis xyz="-1.0000000000000004 4.909267437014364e-16 -2.0122792321330943e-16"/>
    <parent link="l_wrist_1"/>
    <child link="l_wrist_2"/>
    <limit lower="-1.0821041362364843" upper="0.9075712110370514" effort="1e+9" velocity="1e+9"/>
    <dynamics damping="2" friction="0"/>
  </joint>
  <link name="l_wrist_2">
    <inertial>
      <mass value="0.02118836"/>
      <origin xyz="-7.4183919215875535e-9 -7.897157534373368e-4 -0.0046969679508168105" rpy="0 -0 0"/>
      <inertia ixx="0.01" ixy="0" ixz="0" iyy="0.01" iyz="0" izz="0.01"/>
    </inertial>
    <visual>
      <origin xyz="0 0 0" rpy="0 -0 0"/>
      <geometry>
        <mesh filename="package://ergoCub/meshes/simmechanics/sim_ecub_1-1_l_wrist_2.obj" scale="0.001 0.001 0.001"/>
      </geometry>
      <material name="">
        <color rgba="0.5 0.5 0.5 1"/>
      </material>
    </visual>
    <collision>
      <origin xyz="0 0 0" rpy="0 -0 0"/>
      <geometry>
        <box size="0 0 0"/>
      </geometry>
    </collision>
  </link>
  <joint name="l_wrist_pitch" type="revolute">
    <origin xyz="-1.214306433183765e-16 -1.6653345369377348e-16 0" rpy="-4.163336342344336e-16 1.0798191507621624e-10 3.330669073875468e-16"/>
    <axis xyz="-2.4459601009774425e-16 -1.0000000000000002 -1.3600232051562635e-15"/>
    <parent link="l_wrist_2"/>
    <child link="l_hand_palm"/>
    <limit lower="-0.5585053606381855" upper="0.5585053606381855" effort="1e+9" velocity="1e+9"/>
    <dynamics damping="2" friction="0"/>
  </joint>
  <link name="l_hand_palm">
    <inertial>
      <mass value="0.20364988213680776"/>
      <origin xyz="-0.003950502224178115 0.0019881930945492288 -0.058015852438740544" rpy="0 -0 0"/>
      <inertia ixx="0.01" ixy="0" ixz="0" iyy="0.01" iyz="0" izz="0.01"/>
    </inertial>
    <visual>
      <origin xyz="0 0 0" rpy="0 -0 0"/>
      <geometry>
        <mesh filename="package://ergoCub/meshes/simmechanics/sim_ecub_1-1_l_hand_palm.obj" scale="0.001 0.001 0.001"/>
      </geometry>
      <material name="">
        <color rgba="1 1 1 1"/>
      </material>
    </visual>
    <collision>
      <origin xyz="0 0 0" rpy="0 -0 0"/>
      <geometry>
        <box size="0 0 0"/>
      </geometry>
    </collision>
  </link>
  <joint name="l_index_add" type="revolute">
    <origin xyz="0.022500000000000023 -0.0015000000000006952 -0.0685999999999996" rpy="-8.416895217637947e-16 -0.29670597224465534 5.804755322508926e-17"/>
    <axis xyz="1.1895336853461886e-15 0.9999999999999999 -1.9812040713213337e-15"/>
    <parent link="l_hand_palm"/>
    <child link="l_hand_index_1"/>
    <limit lower="0" upper="0.2617993877991494" effort="1e+9" velocity="1e+9"/>
    <dynamics damping="2" friction="0"/>
  </joint>
  <link name="l_hand_index_1">
    <inertial>
      <mass value="0.01923264"/>
      <origin xyz="0.008430306749277854 0.0038510231844406384 -0.017148502808541133" rpy="0 -0 0"/>
      <inertia ixx="0.01" ixy="0" ixz="0" iyy="0.01" iyz="0" izz="0.01"/>
    </inertial>
    <visual>
      <origin xyz="0 0 0" rpy="0 -0 0"/>
      <geometry>
        <mesh filename="package://ergoCub/meshes/simmechanics/sim_ecub_1-1_l_hand_index_1.obj" scale="0.001 0.001 0.001"/>
      </geometry>
      <material name="">
        <color rgba="0.5 0.5 0.5 1"/>
      </material>
    </visual>
    <collision>
      <origin xyz="0 0 0" rpy="0 -0 0"/>
      <geometry>
        <box size="0 0 0"/>
      </geometry>
    </collision>
  </link>
  <joint name="l_middle_prox" type="revolute">
    <origin xyz="0.00960000000000016 -0.0015000000000005842 -0.10299999999999959" rpy="5.479728916549446e-4 1.4363510381087963e-15 -8.32667268468867e-16"/>
    <axis xyz="-1.0000000000000004 1.6098145522958664e-16 4.176883423103147e-15"/>
    <parent link="l_hand_palm"/>
    <child link="l_hand_middle_1"/>
    <limit lower="0" upper="1.5707963267948966" effort="1e+9" velocity="1e+9"/>
    <dynamics damping="2" friction="0"/>
  </joint>
  <link name="l_hand_middle_1">
    <inertial>
      <mass value="0.007486366"/>
      <origin xyz="5.609414423399586e-5 0.0010938363913530202 -0.0174225309754375" rpy="0 -0 0"/>
      <inertia ixx="0.01" ixy="0" ixz="0" iyy="0.01" iyz="0" izz="0.01"/>
    </inertial>
    <visual>
      <origin xyz="0 0 0" rpy="0 -0 0"/>
      <geometry>
        <mesh filename="package://ergoCub/meshes/simmechanics/sim_ecub_1-1_l_hand_middle_1.obj" scale="0.001 0.001 0.001"/>
      </geometry>
      <material name="">
        <color rgba="0.5 0.5 0.5 1"/>
      </material>
    </visual>
    <collision>
      <origin xyz="0 0 0" rpy="0 -0 0"/>
      <geometry>
        <box size="0 0 0"/>
      </geometry>
    </collision>
  </link>
  <joint name="l_pinkie_prox" type="revolute">
    <origin xyz="-0.035982322249527285 -0.0023883158589564635 -0.09206560929209856" rpy="-1.9934591492976922e-5 0.08728175651239228 0.02618761244812705"/>
    <axis xyz="-0.9999999998538295 7.644772463726695e-6 -1.529375771042174e-5"/>
    <parent link="l_hand_palm"/>
    <child link="l_hand_pinkie_1"/>
    <limit lower="0" upper="1.5707963267948966" effort="1e+9" velocity="1e+9"/>
    <dynamics damping="2" friction="0"/>
  </joint>
  <link name="l_hand_pinkie_1">
    <inertial>
      <mass value="0.006357586"/>
      <origin xyz="3.6554577562467744e-5 0.0012135491682558897 -0.015052861815374408" rpy="0 -0 0"/>
      <inertia ixx="0.01" ixy="0" ixz="0" iyy="0.01" iyz="0" izz="0.01"/>
    </inertial>
    <visual>
      <origin xyz="0 0 0" rpy="0 -0 0"/>
      <geometry>
        <mesh filename="package://ergoCub/meshes/simmechanics/sim_ecub_1-1_l_hand_pinkie_1.obj" scale="0.001 0.001 0.001"/>
      </geometry>
      <material name="">
        <color rgba="0.5 0.5 0.5 1"/>
      </material>
    </visual>
    <collision>
      <origin xyz="0 0 0" rpy="0 -0 0"/>
      <geometry>
        <box size="0 0 0"/>
      </geometry>
    </collision>
  </link>
  <joint name="l_ring_prox" type="revolute">
    <origin xyz="-0.015417755558120038 -0.0018498137284707894 -0.09788067183884419" rpy="-4.001819369804634e-5 0.08726646259973214 0.026179938779914452"/>
    <axis xyz="-1.0000000000000002 4.364549018964596e-17 3.6637359812630166e-15"/>
    <parent link="l_hand_palm"/>
    <child link="l_hand_ring_1"/>
    <limit lower="0" upper="1.5707963267948966" effort="1e+9" velocity="1e+9"/>
    <dynamics damping="2" friction="0"/>
  </joint>
  <link name="l_hand_ring_1">
    <inertial>
      <mass value="0.007486366"/>
      <origin xyz="5.610953414397422e-5 0.001113903955753115 -0.017428756834488968" rpy="0 -0 0"/>
      <inertia ixx="0.01" ixy="0" ixz="0" iyy="0.01" iyz="0" izz="0.01"/>
    </inertial>
    <visual>
      <origin xyz="0 0 0" rpy="0 -0 0"/>
      <geometry>
        <mesh filename="package://ergoCub/meshes/simmechanics/sim_ecub_1-1_l_hand_ring_1.obj" scale="0.001 0.001 0.001"/>
      </geometry>
      <material name="">
        <color rgba="0.5 0.5 0.5 1"/>
      </material>
    </visual>
    <collision>
      <origin xyz="0 0 0" rpy="0 -0 0"/>
      <geometry>
        <box size="0 0 0"/>
      </geometry>
    </collision>
  </link>
  <joint name="l_thumb_add" type="revolute">
    <origin xyz="0.02337486325639077 -0.0030000000000002525 -0.03452383847355461" rpy="-0.04044970061859103 0.22331918636553513 2.9608435412698353"/>
    <axis xyz="9.71445146547012e-16 1.0269562977782698e-15 -1.0000000000000002"/>
    <parent link="l_hand_palm"/>
    <child link="l_hand_thumb_1"/>
    <limit lower="0" upper="1.7453292519943295" effort="1e+9" velocity="1e+9"/>
    <dynamics damping="2" friction="0"/>
  </joint>
  <link name="l_hand_thumb_1">
    <inertial>
      <mass value="0.029029542280278556"/>
      <origin xyz="-0.018039176431428286 -0.0028662725726853466 0.0021177719486905056" rpy="0 -0 0"/>
      <inertia ixx="0.01" ixy="0" ixz="0" iyy="0.01" iyz="0" izz="0.01"/>
    </inertial>
    <visual>
      <origin xyz="0 0 0" rpy="0 -0 0"/>
      <geometry>
        <mesh filename="package://ergoCub/meshes/simmechanics/sim_ecub_1-1_l_hand_thumb_1.obj" scale="0.001 0.001 0.001"/>
      </geometry>
      <material name="">
        <color rgba="0.5 0.5 0.5 1"/>
      </material>
    </visual>
    <collision>
      <origin xyz="0 0 0" rpy="0 -0 0"/>
      <geometry>
        <box size="0 0 0"/>
      </geometry>
    </collision>
  </link>
  <joint name="l_thumb_prox" type="revolute">
    <origin xyz="-0.038093197449591214 -0.0032591938585579128 -0.0036017448035497446" rpy="1.37186358506996 0.1374915276146556 -3.1415926535689005"/>
    <axis xyz="5.134781488891349e-16 3.1363800445660672e-15 -0.9999999999999996"/>
    <parent link="l_hand_thumb_1"/>
    <child link="l_hand_thumb_2"/>
    <limit lower="0" upper="1.5707963267948966" effort="1e+9" velocity="1e+9"/>
    <dynamics damping="2" friction="0"/>
  </joint>
  <link name="l_hand_thumb_2">
    <inertial>
      <mass value="0.00669603218404702"/>
      <origin xyz="0.014887264468035857 0.0011329726380328031 6.266005936719776e-5" rpy="0 -0 0"/>
      <inertia ixx="0.01" ixy="0" ixz="0" iyy="0.01" iyz="0" izz="0.01"/>
    </inertial>
    <visual>
      <origin xyz="0 0 0" rpy="0 -0 0"/>
      <geometry>
        <mesh filename="package://ergoCub/meshes/simmechanics/sim_ecub_1-1_l_hand_thumb_2.obj" scale="0.001 0.001 0.001"/>
      </geometry>
      <material name="">
        <color rgba="0.5 0.5 0.5 1"/>
      </material>
    </visual>
    <collision>
      <origin xyz="0 0 0" rpy="0 -0 0"/>
      <geometry>
        <box size="0 0 0"/>
      </geometry>
    </collision>
  </link>
  <joint name="l_thumb_dist" type="revolute">
    <origin xyz="0.03500000000368915 -0.001499999993667872 1.0741685319004546e-12" rpy="1.8750459518379624e-11 -1.8465340367868066e-11 -1.4806766923669552e-12"/>
    <axis xyz="-1.846719305254041e-11 -1.8750709318560158e-11 -0.9999999999999996"/>
    <parent link="l_hand_thumb_2"/>
    <child link="l_hand_thumb_3"/>
    <limit lower="0" upper="1.7697638615222502" effort="1e+9" velocity="1e+9"/>
    <dynamics damping="2" friction="0"/>
  </joint>
  <link name="l_hand_thumb_3">
    <inertial>
      <mass value="0.006831595"/>
      <origin xyz="0.016086252532748233 0.0026526887310780456 4.701425890352162e-5" rpy="0 -0 0"/>
      <inertia ixx="0.01" ixy="0" ixz="0" iyy="0.01" iyz="0" izz="0.01"/>
    </inertial>
    <visual>
      <origin xyz="0 0 0" rpy="0 -0 0"/>
      <geometry>
        <mesh filename="package://ergoCub/meshes/simmechanics/sim_ecub_1-1_l_hand_thumb_3.obj" scale="0.001 0.001 0.001"/>
      </geometry>
      <material name="">
        <color rgba="0.5 0.5 0.5 1"/>
      </material>
    </visual>
    <collision>
      <origin xyz="0 0 0" rpy="0 -0 0"/>
      <geometry>
        <box size="0 0 0"/>
      </geometry>
    </collision>
  </link>
  <joint name="l_ring_dist" type="revolute">
    <origin xyz="1.4987329953475292e-11 -0.0015000000002768354 -0.04000000000073728" rpy="-1.2044308636062927e-4 -1.0794291155358238e-10 -2.509104035652854e-13"/>
    <axis xyz="-1 -2.617159685310911e-13 1.0794249544288393e-10"/>
    <parent link="l_hand_ring_1"/>
    <child link="l_hand_ring_2"/>
    <limit lower="0" upper="1.7994344588061537" effort="1e+9" velocity="1e+9"/>
    <dynamics damping="2" friction="0"/>
  </joint>
  <link name="l_hand_ring_2">
    <inertial>
      <mass value="0.007251413"/>
      <origin xyz="4.433654030530642e-5 0.0027546754597598533 -0.01889085949732494" rpy="0 -0 0"/>
      <inertia ixx="0.01" ixy="0" ixz="0" iyy="0.01" iyz="0" izz="0.01"/>
    </inertial>
    <visual>
      <origin xyz="0 0 0" rpy="0 -0 0"/>
      <geometry>
        <mesh filename="package://ergoCub/meshes/simmechanics/sim_ecub_1-1_l_hand_ring_2.obj" scale="0.001 0.001 0.001"/>
      </geometry>
      <material name="">
        <color rgba="0.5 0.5 0.5 1"/>
      </material>
    </visual>
    <collision>
      <origin xyz="0 0 0" rpy="0 -0 0"/>
      <geometry>
        <box size="0 0 0"/>
      </geometry>
    </collision>
  </link>
  <joint name="l_pinkie_dist" type="revolute">
    <origin xyz="1.4015903021524778e-11 -0.0014999999962120036 -0.03500000000709719" rpy="-4.438681233740257e-5 -1.0794289073690067e-10 -2.489120021209601e-13"/>
    <axis xyz="-0.9999999998538309 7.645451042193251e-6 -1.5293310428212298e-5"/>
    <parent link="l_hand_pinkie_1"/>
    <child link="l_hand_pinkie_2"/>
    <limit lower="0" upper="1.7226399717184033" effort="1e+9" velocity="1e+9"/>
    <dynamics damping="2" friction="0"/>
  </joint>
  <link name="l_hand_pinkie_2">
    <inertial>
      <mass value="0.007240237"/>
      <origin xyz="2.2378292628411067e-5 0.0027712834790767915 -0.018930353878106154" rpy="0 -0 0"/>
      <inertia ixx="0.01" ixy="0" ixz="0" iyy="0.01" iyz="0" izz="0.01"/>
    </inertial>
    <visual>
      <origin xyz="0 0 0" rpy="0 -0 0"/>
      <geometry>
        <mesh filename="package://ergoCub/meshes/simmechanics/sim_ecub_1-1_l_hand_pinkie_2.obj" scale="0.001 0.001 0.001"/>
      </geometry>
      <material name="">
        <color rgba="0.5 0.5 0.5 1"/>
      </material>
    </visual>
    <collision>
      <origin xyz="0 0 0" rpy="0 -0 0"/>
      <geometry>
        <box size="0 0 0"/>
      </geometry>
    </collision>
  </link>
  <joint name="l_middle_dist" type="revolute">
    <origin xyz="1.5440777129116512e-11 -0.001499999999999363 -0.03999999999896309" rpy="0.017535706363213464 -1.0797945176888035e-10 5.917488721252084e-14"/>
    <axis xyz="-1 1.952334931070572e-12 1.0795870667149422e-10"/>
    <parent link="l_hand_middle_1"/>
    <child link="l_hand_middle_2"/>
    <limit lower="0" upper="1.7994344588061537" effort="1e+9" velocity="1e+9"/>
    <dynamics damping="2" friction="0"/>
  </joint>
  <link name="l_hand_middle_2">
    <inertial>
      <mass value="0.007251413"/>
      <origin xyz="4.4316320155644157e-5 0.0027547229469275236 -0.018890877319942878" rpy="0 -0 0"/>
      <inertia ixx="0.01" ixy="0" ixz="0" iyy="0.01" iyz="0" izz="0.01"/>
    </inertial>
    <visual>
      <origin xyz="0 0 0" rpy="0 -0 0"/>
      <geometry>
        <mesh filename="package://ergoCub/meshes/simmechanics/sim_ecub_1-1_l_hand_middle_2.obj" scale="0.001 0.001 0.001"/>
      </geometry>
      <material name="">
        <color rgba="0.5 0.5 0.5 1"/>
      </material>
    </visual>
    <collision>
      <origin xyz="0 0 0" rpy="0 -0 0"/>
      <geometry>
        <box size="0 0 0"/>
      </geometry>
    </collision>
  </link>
  <joint name="l_index_prox" type="revolute">
    <origin xyz="0.00919253334679343 0 -0.030713451309624218" rpy="-3.0531133177191815e-16 -7.023611484080483e-10 -7.771561172376096e-16"/>
    <axis xyz="-1 8.326672684688522e-17 7.023654435833748e-10"/>
    <parent link="l_hand_index_1"/>
    <child link="l_hand_index_2"/>
    <limit lower="0" upper="1.5707963267948966" effort="1e+9" velocity="1e+9"/>
    <dynamics damping="2" friction="0"/>
  </joint>
  <link name="l_hand_index_2">
    <inertial>
      <mass value="0.007486366"/>
      <origin xyz="5.6100110941745274e-5 0.001113133191428639 -0.01742880406449937" rpy="0 -0 0"/>
      <inertia ixx="0.01" ixy="0" ixz="0" iyy="0.01" iyz="0" izz="0.01"/>
    </inertial>
    <visual>
      <origin xyz="0 0 0" rpy="0 -0 0"/>
      <geometry>
        <mesh filename="package://ergoCub/meshes/simmechanics/sim_ecub_1-1_l_hand_index_2.obj" scale="0.001 0.001 0.001"/>
      </geometry>
      <material name="">
        <color rgba="0.5 0.5 0.5 1"/>
      </material>
    </visual>
    <collision>
      <origin xyz="0 0 0" rpy="0 -0 0"/>
      <geometry>
        <box size="0 0 0"/>
      </geometry>
    </collision>
  </link>
  <joint name="l_index_dist" type="revolute">
    <origin xyz="-1.3877787807814457e-17 -0.001500000000000029 -0.03999999999999987" rpy="-7.482326172536535e-8 1.8041124150158794e-16 -6.106226635438361e-16"/>
    <axis xyz="-1 -2.359224176539984e-16 4.163337069211178e-17"/>
    <parent link="l_hand_index_2"/>
    <child link="l_hand_index_3"/>
    <limit lower="0" upper="1.7994344588061537" effort="1e+9" velocity="1e+9"/>
    <dynamics damping="2" friction="0"/>
  </joint>
  <link name="l_hand_index_3">
    <inertial>
      <mass value="0.007251413"/>
      <origin xyz="4.431356673249148e-5 0.0027546711855188366 -0.018890916917498335" rpy="0 -0 0"/>
      <inertia ixx="0.01" ixy="0" ixz="0" iyy="0.01" iyz="0" izz="0.01"/>
    </inertial>
    <visual>
      <origin xyz="0 0 0" rpy="0 -0 0"/>
      <geometry>
        <mesh filename="package://ergoCub/meshes/simmechanics/sim_ecub_1-1_l_hand_index_3.obj" scale="0.001 0.001 0.001"/>
      </geometry>
      <material name="">
        <color rgba="0.5 0.5 0.5 1"/>
      </material>
    </visual>
    <collision>
      <origin xyz="0 0 0" rpy="0 -0 0"/>
      <geometry>
        <box size="0 0 0"/>
      </geometry>
    </collision>
  </link>
  <joint name="neck_roll" type="revolute">
    <origin xyz="8.673617379884035e-19 6.416192023745373e-17 0.009499999999999786" rpy="-1.7364294099408703e-15 -2.980403162017727e-16 1.580860396783509e-15"/>
    <axis xyz="1 -1.6820355477448088e-15 -3.806893332301044e-15"/>
    <parent link="neck_2"/>
    <child link="neck_3"/>
    <limit lower="-0.3490658503988659" upper="0.3490658503988659" effort="1e+9" velocity="1e+9"/>
    <dynamics damping="2" friction="0"/>
  </joint>
  <link name="neck_3">
    <inertial>
      <mass value="0.17811376821431446"/>
      <origin xyz="7.590511663558711e-4 -4.0916906938460536e-5 0.036035516549226765" rpy="0 -0 0"/>
      <inertia ixx="9.70548692219775e-5" ixy="1.7629468835177367e-7" ixz="6.130672988864901e-6" iyy="1.0759851740143377e-4" iyz="-2.503969674072287e-7" izz="3.626415440724103e-5"/>
    </inertial>
    <visual>
      <origin xyz="0 0 0" rpy="0 -0 0"/>
      <geometry>
        <mesh filename="package://ergoCub/meshes/simmechanics/sim_ecub_1-1_head_neck_3.obj" scale="0.001 0.001 0.001"/>
      </geometry>
      <material name="">
        <color rgba="0.6 0.6 0.6 1"/>
      </material>
    </visual>
    <collision>
      <origin xyz="0 0 0" rpy="0 -0 0"/>
      <geometry>
        <box size="0 0 0"/>
      </geometry>
    </collision>
  </link>
  <joint name="neck_yaw" type="revolute">
    <origin xyz="-1.43982048506075e-16 -4.1419339784385294e-17 0.06914999999999999" rpy="1.2720090288173385e-15 -3.1687776687987536e-15 3.715432083235576e-16"/>
    <axis xyz="3.1628618281392715e-15 1.6479574685948862e-15 0.9999999999999998"/>
    <parent link="neck_3"/>
    <child link="head"/>
    <limit lower="-0.7853981633974483" upper="0.7853981633974483" effort="1e+9" velocity="1e+9"/>
    <dynamics damping="2" friction="0"/>
  </joint>
  <link name="head">
    <inertial>
      <mass value="1.6902682"/>
      <origin xyz="-0.01620091412622722 -0.002268813231724542 0.03500744217497026" rpy="0 -0 0"/>
      <inertia ixx="0.007991907355842523" ixy="1.8186740348760937e-4" ixz="-1.9244538977657914e-4" iyy="0.009883124315185845" iyz="-3.994074771344834e-5" izz="0.00786000669468763"/>
    </inertial>
    <visual>
      <origin xyz="0 0 0" rpy="0 -0 0"/>
      <geometry>
        <mesh filename="package://ergoCub/meshes/simmechanics/sim_ecub_1-1_head.obj" scale="0.001 0.001 0.001"/>
      </geometry>
      <material name="">
        <color rgba="1 1 1 1"/>
      </material>
    </visual>
    <collision>
      <origin xyz="0 0 0" rpy="0 -0 0"/>
      <geometry>
        <box size="0 0 0"/>
      </geometry>
    </collision>
  </link>
  <joint name="camera_tilt" type="revolute">
    <origin xyz="0.06250999999999993 -3.0000000001105853e-5 0.07639250000000064" rpy="9.166950960511526e-15 2.595819949100105e-4 1.9343583275079285e-15"/>
    <axis xyz="-3.1332662159460226e-17 -1 -1.3036401662462866e-15"/>
    <parent link="head"/>
    <child link="realsense"/>
    <limit lower="-0.5235987755982988" upper="0.5235987755982988" effort="1e+9" velocity="1e+9"/>
    <dynamics damping="2" friction="0"/>
  </joint>
  <link name="realsense">
    <inertial>
      <mass value="0.0973042045264468"/>
      <origin xyz="-0.01566548310600667 0.004519995218644514 0.002745610154123612" rpy="0 -0 0"/>
      <inertia ixx="0.01" ixy="0" ixz="0" iyy="0.01" iyz="0" izz="0.01"/>
    </inertial>
    <visual>
      <origin xyz="0 0 0" rpy="0 -0 0"/>
      <geometry>
        <mesh filename="package://ergoCub/meshes/simmechanics/sim_ecub_1-1_realsense.obj" scale="0.001 0.001 0.001"/>
      </geometry>
      <material name="">
        <color rgba="0.6 0.6 0.6 1"/>
      </material>
    </visual>
    <collision>
      <origin xyz="0 0 0" rpy="0 -0 0"/>
      <geometry>
        <box size="0 0 0"/>
      </geometry>
    </collision>
  </link>
  <joint name="r_hip_roll" type="revolute">
    <origin xyz="-0.047250000000000625 -0.033099999999999824 -0.009000000000000091" rpy="-2.73316156054826e-16 2.504641391024977e-16 -3.1036377681447894e-15"/>
    <axis xyz="-1 -3.3813287685016297e-16 -7.120227705451219e-17"/>
    <parent link="r_hip_1"/>
    <child link="r_hip_2"/>
    <limit lower="-0.2792526803190927" upper="1.9024088846738192" effort="1e+9" velocity="1e+9"/>
    <dynamics damping="2" friction="0"/>
  </joint>
  <link name="r_hip_2">
    <inertial>
      <mass value="1.8425374083524118"/>
      <origin xyz="-0.004338858395569037 -4.276785411407025e-5 -0.03711583728304848" rpy="0 -0 0"/>
      <inertia ixx="0.003120303249647105" ixy="2.3735315120274186e-6" ixz="0.0010124685247925123" iyy="0.005459166113270065" iyz="-1.8523984061140002e-6" izz="0.003419002844852166"/>
    </inertial>
    <visual>
      <origin xyz="0 0 0" rpy="0 -0 0"/>
      <geometry>
        <mesh filename="package://ergoCub/meshes/simmechanics/sim_ecub_1-1_r_hip_2.obj" scale="0.001 0.001 0.001"/>
      </geometry>
      <material name="">
        <color rgba="0.6 0.6 0.6 1"/>
      </material>
    </visual>
    <collision>
      <origin xyz="0 0 0" rpy="0 -0 0"/>
      <geometry>
        <box size="0 0 0"/>
      </geometry>
    </collision>
  </link>
  <joint name="r_leg_ft_sensor" type="fixed">
    <origin xyz="0.036699999999999976 -5.551115123125783e-17 -0.08969999999999992" rpy="-1.3775953441385743e-15 5.490828022886651e-16 1.6105578736269433e-15"/>
    <parent link="r_hip_2"/>
    <child link="r_hip_3"/>
  </joint>
  <link name="r_hip_3">
    <inertial>
      <mass value="2.147900058066585"/>
      <origin xyz="0.0051510124501743006 0.012832092744145235 -0.05168842502826221" rpy="0 -0 0"/>
      <inertia ixx="0.007193177523135792" ixy="3.498727117566612e-5" ixz="2.4096738440560362e-5" iyy="0.008149001665389528" iyz="-1.2572783372468582e-4" izz="0.0057278283877820494"/>
    </inertial>
    <visual>
      <origin xyz="0 0 0" rpy="0 -0 0"/>
      <geometry>
        <mesh filename="package://ergoCub/meshes/simmechanics/sim_ecub_1-1_r_hip_3.obj" scale="0.001 0.001 0.001"/>
      </geometry>
      <material name="">
        <color rgba="1 1 1 1"/>
      </material>
    </visual>
    <collision>
      <origin xyz="0 0 0" rpy="0 -0 0"/>
      <geometry>
        <box size="0 0 0"/>
      </geometry>
    </collision>
  </link>
  <joint name="r_hip_yaw" type="revolute">
    <origin xyz="-2.8622937353617317e-16 0.014999999999999777 -0.07269999999999871" rpy="-3.94514163379533e-15 7.430123072146451e-16 1.2193157749540276e-6"/>
    <axis xyz="-2.3953050207433507e-20 1.4749328491810949e-15 -1"/>
    <parent link="r_hip_3"/>
    <child link="r_upper_leg"/>
    <limit lower="-1.3788101090755203" upper="1.3788101090755203" effort="1e+9" velocity="1e+9"/>
    <dynamics damping="2" friction="0"/>
  </joint>
  <link name="r_upper_leg">
    <inertial>
      <mass value="2.784923431729287"/>
      <origin xyz="0.008517474024287675 -0.014468465702474021 -0.12674960557185616" rpy="0 -0 0"/>
      <inertia ixx="0.01186013252999811" ixy="5.455450241372543e-5" ixz="5.393573740676933e-4" iyy="0.01210913335208505" iyz="-4.0331041015476653e-4" izz="0.0022609706907693243"/>
    </inertial>
    <visual>
      <origin xyz="0 0 0" rpy="0 -0 0"/>
      <geometry>
        <mesh filename="package://ergoCub/meshes/simmechanics/sim_ecub_1-1_r_upper_leg.obj" scale="0.001 0.001 0.001"/>
      </geometry>
      <material name="">
        <color rgba="0.6 0.6 0.6 1"/>
      </material>
    </visual>
    <collision>
      <origin xyz="0 0 0" rpy="0 -0 0"/>
      <geometry>
        <box size="0 0 0"/>
      </geometry>
    </collision>
  </link>
  <joint name="r_knee" type="revolute">
    <origin xyz="0.01060000963260985 0.007899987075259289 -0.17970000000000058" rpy="6.892643261935339e-14 -6.650159361880639e-14 -1.2193157700904425e-6"/>
    <axis xyz="1.2193157766326317e-6 -0.9999999999992566 4.719551160658923e-15"/>
    <parent link="r_upper_leg"/>
    <child link="r_lower_leg"/>
    <limit lower="-1.8151424220741028" upper="0.10471975511965978" effort="1e+9" velocity="1e+9"/>
    <dynamics damping="2" friction="0"/>
  </joint>
  <link name="r_lower_leg">
    <inertial>
      <mass value="3.7621532589747924"/>
      <origin xyz="0.0012157689164458522 -0.006184734585333342 -0.21372759879868175" rpy="0 -0 0"/>
      <inertia ixx="0.04644215616821937" ixy="3.7269274872175814e-5" ixz="-8.519885904633137e-4" iyy="0.047738936736850285" iyz="-0.0018042981721195497" izz="0.004839671863500647"/>
    </inertial>
    <visual>
      <origin xyz="0 0 0" rpy="0 -0 0"/>
      <geometry>
        <mesh filename="package://ergoCub/meshes/simmechanics/sim_ecub_1-1_r_lower_leg.obj" scale="0.001 0.001 0.001"/>
      </geometry>
      <material name="">
        <color rgba="1 1 1 1"/>
      </material>
    </visual>
    <collision>
      <origin xyz="0 0 0" rpy="0 -0 0"/>
      <geometry>
        <box size="0 0 0"/>
      </geometry>
    </collision>
  </link>
  <joint name="r_ankle_pitch" type="revolute">
    <origin xyz="-5.936223734792634e-15 -0.03190000000000005 -0.3210000000000002" rpy="-2.9932805576414174e-15 -2.0242047360524565e-14 8.880636788937802e-17"/>
    <axis xyz="-3.505264366441263e-17 1 -1.331317022347139e-16"/>
    <parent link="r_lower_leg"/>
    <child link="r_ankle_1"/>
    <limit lower="-0.7853981633974483" upper="0.7853981633974483" effort="1e+9" velocity="1e+9"/>
    <dynamics damping="2" friction="0"/>
  </joint>
  <link name="r_ankle_1">
    <inertial>
      <mass value="0.3481278950635556"/>
      <origin xyz="-0.0013672309746954776 -6.60186959019704e-4 -0.014087432401547305" rpy="0 -0 0"/>
      <inertia ixx="0.01" ixy="0" ixz="0" iyy="0.01" iyz="0" izz="0.01"/>
    </inertial>
    <visual>
      <origin xyz="0 0 0" rpy="0 -0 0"/>
      <geometry>
        <mesh filename="package://ergoCub/meshes/simmechanics/sim_ecub_1-1_r_ankle_1.obj" scale="0.001 0.001 0.001"/>
      </geometry>
      <material name="">
        <color rgba="0.6 0.6 0.6 1"/>
      </material>
    </visual>
    <collision>
      <origin xyz="0 0 0" rpy="0 -0 0"/>
      <geometry>
        <box size="0 0 0"/>
      </geometry>
    </collision>
  </link>
  <joint name="r_ankle_roll" type="revolute">
    <origin xyz="-0.052750000000001546 0.018200000000000008 -0.0349999999999977" rpy="-1.0176053241861382e-24 3.8838282931741325e-14 -9.278622199115707e-23"/>
    <axis xyz="-1 -1.628246671334752e-16 2.560295622560413e-15"/>
    <parent link="r_ankle_1"/>
    <child link="r_ankle_2"/>
    <limit lower="-0.4363323129985824" upper="0.4363323129985824" effort="1e+9" velocity="1e+9"/>
    <dynamics damping="2" friction="0"/>
  </joint>
  <link name="r_ankle_2">
    <inertial>
      <mass value="1.5418216247038539"/>
      <origin xyz="0.04052646811695935 -8.642493098851012e-5 -0.023871143533700234" rpy="0 -0 0"/>
      <inertia ixx="0.01" ixy="0" ixz="0" iyy="0.009999999999999998" iyz="0" izz="0.01"/>
    </inertial>
    <visual>
      <origin xyz="0 0 0" rpy="0 -0 0"/>
      <geometry>
        <mesh filename="package://ergoCub/meshes/simmechanics/sim_ecub_1-1_r_ankle_2.obj" scale="0.001 0.001 0.001"/>
      </geometry>
      <material name="">
        <color rgba="1 1 1 1"/>
      </material>
    </visual>
    <collision>
      <origin xyz="0 0 0" rpy="0 -0 0"/>
      <geometry>
        <box size="0 0 0"/>
      </geometry>
    </collision>
  </link>
  <joint name="r_foot_front_ft_sensor" type="fixed">
    <origin xyz="0.13525000000000004 0 -0.04789999999999994" rpy="2.66139136471374e-17 -9.20811369242055e-17 -1.4551888385804406e-15"/>
    <parent link="r_ankle_2"/>
    <child link="r_foot_front"/>
  </joint>
  <link name="r_foot_front">
    <inertial>
      <mass value="0.22110467939552797"/>
      <origin xyz="5.879202911245884e-4 -3.747924692820703e-9 -0.02000061661590058" rpy="0 -0 0"/>
      <inertia ixx="0.009999999999999998" ixy="0" ixz="0" iyy="0.01" iyz="0" izz="0.01"/>
    </inertial>
    <visual>
      <origin xyz="0 0 0" rpy="0 -0 0"/>
      <geometry>
        <mesh filename="package://ergoCub/meshes/simmechanics/sim_ecub_1-1_r_foot_front.obj" scale="0.001 0.001 0.001"/>
      </geometry>
      <material name="">
        <color rgba="1 0.51 0 1"/>
      </material>
    </visual>
    <collision>
      <origin xyz="0 0 -0.0193" rpy="0 -0 0"/>
      <geometry>
        <box size="0.117 0.1 0.006"/>
      </geometry>
    </collision>
  </link>
  <joint name="r_foot_rear_ft_sensor" type="fixed">
    <origin xyz="0.016 0 -0.04789999999999983" rpy="2.661391364712478e-17 -9.208113692419957e-17 -1.566211141042955e-15"/>
    <parent link="r_ankle_2"/>
    <child link="r_foot_rear"/>
  </joint>
  <link name="r_foot_rear">
    <inertial>
      <mass value="0.22110467939552797"/>
      <origin xyz="5.879202911244878e-4 -3.747924665065128e-9 -0.020000616615901023" rpy="0 -0 0"/>
      <inertia ixx="0.01" ixy="0" ixz="0" iyy="0.01" iyz="0" izz="0.01"/>
    </inertial>
    <visual>
      <origin xyz="0 0 0" rpy="0 -0 0"/>
      <geometry>
        <mesh filename="package://ergoCub/meshes/simmechanics/sim_ecub_1-1_r_foot_rear.obj" scale="0.001 0.001 0.001"/>
      </geometry>
      <material name="">
        <color rgba="1 0.51 0 1"/>
      </material>
    </visual>
    <collision>
      <origin xyz="0 0 -0.0193" rpy="0 -0 0"/>
      <geometry>
        <box size="0.117 0.1 0.006"/>
      </geometry>
    </collision>
  </link>
  <joint name="l_hip_roll" type="revolute">
    <origin xyz="-0.04725000000000078 0.033100000000000004 -0.009000000000000119" rpy="7.584245024416732e-16 1.5745686587446743e-30 1.1102230246251548e-16"/>
    <axis xyz="1 -6.123233995736708e-17 6.3201403498236e-16"/>
    <parent link="l_hip_1"/>
    <child link="l_hip_2"/>
    <limit lower="-0.2792526803190927" upper="1.9024088846738192" effort="1e+9" velocity="1e+9"/>
    <dynamics damping="2" friction="0"/>
  </joint>
  <link name="l_hip_2">
    <inertial>
      <mass value="1.8338392164825101"/>
      <origin xyz="-0.004125697068299468 3.917475804632309e-5 -0.03750964603556273" rpy="0 -0 0"/>
      <inertia ixx="0.003159514595905926" ixy="-1.6542815235215681e-6" ixz="9.977368607484037e-4" iyy="0.005488243677251951" iyz="-2.1904093887368695e-6" izz="0.0033984945726571185"/>
    </inertial>
    <visual>
      <origin xyz="0 0 0" rpy="0 -0 0"/>
      <geometry>
        <mesh filename="package://ergoCub/meshes/simmechanics/sim_ecub_1-1_l_hip_2.obj" scale="0.001 0.001 0.001"/>
      </geometry>
      <material name="">
        <color rgba="0.6 0.6 0.6 1"/>
      </material>
    </visual>
    <collision>
      <origin xyz="0 0 0" rpy="0 -0 0"/>
      <geometry>
        <box size="0 0 0"/>
      </geometry>
    </collision>
  </link>
  <joint name="l_leg_ft_sensor" type="fixed">
    <origin xyz="0.03669999999999985 -1.3877787807814457e-17 -0.08970000000000003" rpy="-1.1075796462727634e-15 -2.3847605106274887e-30 2.775557561562846e-16"/>
    <parent link="l_hip_2"/>
    <child link="l_hip_3"/>
  </joint>
  <link name="l_hip_3">
    <inertial>
      <mass value="2.147524084050246"/>
      <origin xyz="0.005176125839593024 -0.01282881302682233 -0.05174852447453404" rpy="0 -0 0"/>
      <inertia ixx="0.007242161971060034" ixy="-3.321392954197042e-5" ixz="2.505985505401264e-5" iyy="0.008197962692605146" iyz="1.2474874840596051e-4" izz="0.005727458772759987"/>
    </inertial>
    <visual>
      <origin xyz="0 0 0" rpy="0 -0 0"/>
      <geometry>
        <mesh filename="package://ergoCub/meshes/simmechanics/sim_ecub_1-1_l_hip_3.obj" scale="0.001 0.001 0.001"/>
      </geometry>
      <material name="">
        <color rgba="1 1 1 1"/>
      </material>
    </visual>
    <collision>
      <origin xyz="0 0 0" rpy="0 -0 0"/>
      <geometry>
        <box size="0 0 0"/>
      </geometry>
    </collision>
  </link>
  <joint name="l_hip_yaw" type="revolute">
    <origin xyz="-8.448103328007051e-16 -0.014999999999999944 -0.07269999999999993" rpy="3.011883887564833e-16 1.143142903721238e-14 -2.2204460492502608e-16"/>
    <axis xyz="-8.622588011769357e-16 1.593666547307703e-16 1"/>
    <parent link="l_hip_3"/>
    <child link="l_upper_leg"/>
    <limit lower="-1.3788101090755203" upper="1.3788101090755203" effort="1e+9" velocity="1e+9"/>
    <dynamics damping="2" friction="0"/>
  </joint>
  <link name="l_upper_leg">
    <inertial>
      <mass value="2.784923431765453"/>
      <origin xyz="0.008503494694160183 0.014484874736048647 -0.12674659802303312" rpy="0 -0 0"/>
      <inertia ixx="0.011852293952284196" ixy="-4.907145319317264e-5" ixz="5.393933817879138e-4" iyy="0.012109807149567942" iyz="3.9208918647670385e-4" izz="0.002253627916731084"/>
    </inertial>
    <visual>
      <origin xyz="0 0 0" rpy="0 -0 0"/>
      <geometry>
        <mesh filename="package://ergoCub/meshes/simmechanics/sim_ecub_1-1_l_upper_leg.obj" scale="0.001 0.001 0.001"/>
      </geometry>
      <material name="">
        <color rgba="0.6 0.6 0.6 1"/>
      </material>
    </visual>
    <collision>
      <origin xyz="0 0 0" rpy="0 -0 0"/>
      <geometry>
        <box size="0 0 0"/>
      </geometry>
    </collision>
  </link>
  <joint name="l_knee" type="revolute">
    <origin xyz="0.010600000000000822 -0.007900000000000185 -0.17969999999999958" rpy="1.970486418692682e-16 -1.1419428146632273e-14 2.8602839935211434e-15"/>
    <axis xyz="-2.608937546411318e-16 -1 5.166588955193111e-17"/>
    <parent link="l_upper_leg"/>
    <child link="l_lower_leg"/>
    <limit lower="-1.8151424220741028" upper="0.10471975511965978" effort="1e+9" velocity="1e+9"/>
    <dynamics damping="2" friction="0"/>
  </joint>
  <link name="l_lower_leg">
    <inertial>
      <mass value="3.767581145212888"/>
      <origin xyz="0.0014201768088090358 0.006186333743956739 -0.21383298861124922" rpy="0 -0 0"/>
      <inertia ixx="0.04647110900067475" ixy="-2.1189289797886653e-5" ixz="-8.110710215722959e-4" iyy="0.04776726641499918" iyz="0.0018123762001582078" izz="0.004840491251955261"/>
    </inertial>
    <visual>
      <origin xyz="0 0 0" rpy="0 -0 0"/>
      <geometry>
        <mesh filename="package://ergoCub/meshes/simmechanics/sim_ecub_1-1_l_lower_leg.obj" scale="0.001 0.001 0.001"/>
      </geometry>
      <material name="">
        <color rgba="1 1 1 1"/>
      </material>
    </visual>
    <collision>
      <origin xyz="0 0 0" rpy="0 -0 0"/>
      <geometry>
        <box size="0 0 0"/>
      </geometry>
    </collision>
  </link>
  <joint name="l_ankle_pitch" type="revolute">
    <origin xyz="-4.468647674116255e-15 0.03189999999999981 -0.3209999999999995" rpy="-1.9704864186927032e-16 -8.673617379880112e-19 -1.8683953730959558e-16"/>
    <axis xyz="-2.389602037081462e-16 1 1.4538275231733847e-16"/>
    <parent link="l_lower_leg"/>
    <child link="l_ankle_1"/>
    <limit lower="-0.7853981633974483" upper="0.7853981633974483" effort="1e+9" velocity="1e+9"/>
    <dynamics damping="2" friction="0"/>
  </joint>
  <link name="l_ankle_1">
    <inertial>
      <mass value="0.3481278951519182"/>
      <origin xyz="-0.0013852125067176195 6.601869600093568e-4 -0.014087432474324535" rpy="0 -0 0"/>
      <inertia ixx="0.01" ixy="0" ixz="0" iyy="0.01" iyz="0" izz="0.01"/>
    </inertial>
    <visual>
      <origin xyz="0 0 0" rpy="0 -0 0"/>
      <geometry>
        <mesh filename="package://ergoCub/meshes/simmechanics/sim_ecub_1-1_l_ankle_1.obj" scale="0.001 0.001 0.001"/>
      </geometry>
      <material name="">
        <color rgba="0.6 0.6 0.6 1"/>
      </material>
    </visual>
    <collision>
      <origin xyz="0 0 0" rpy="0 -0 0"/>
      <geometry>
        <box size="0 0 0"/>
      </geometry>
    </collision>
  </link>
  <joint name="l_ankle_roll" type="revolute">
    <origin xyz="-0.052750000000000324 -0.01819999999999991 -0.03499999999999959" rpy="3.340196646750626e-19 1.1217589357404033e-14 -2.3665827156630354e-30"/>
    <axis xyz="1 -4.05028482201375e-16 -1.2496691978128869e-15"/>
    <parent link="l_ankle_1"/>
    <child link="l_ankle_2"/>
    <limit lower="-0.4363323129985824" upper="0.4363323129985824" effort="1e+9" velocity="1e+9"/>
    <dynamics damping="2" friction="0"/>
  </joint>
  <link name="l_ankle_2">
    <inertial>
      <mass value="1.5418216247038539"/>
      <origin xyz="0.0405224005088543 -9.790751646740482e-5 -0.02387114353368558" rpy="0 -0 0"/>
      <inertia ixx="0.01" ixy="0" ixz="0" iyy="0.010000000000000002" iyz="0" izz="0.01"/>
    </inertial>
    <visual>
      <origin xyz="0 0 0" rpy="0 -0 0"/>
      <geometry>
        <mesh filename="package://ergoCub/meshes/simmechanics/sim_ecub_1-1_l_ankle_2.obj" scale="0.001 0.001 0.001"/>
      </geometry>
      <material name="">
        <color rgba="1 1 1 1"/>
      </material>
    </visual>
    <collision>
      <origin xyz="0 0 0" rpy="0 -0 0"/>
      <geometry>
        <box size="0 0 0"/>
      </geometry>
    </collision>
  </link>
  <joint name="l_foot_front_ft_sensor" type="fixed">
    <origin xyz="0.13524999999999998 -5.551115123125783e-17 -0.047899999999999165" rpy="-8.751425667295598e-31 1.9428902930939912e-16 -9.788946385468152e-16"/>
    <parent link="l_ankle_2"/>
    <child link="l_foot_front"/>
  </joint>
  <link name="l_foot_front">
    <inertial>
      <mass value="0.22110467939552797"/>
      <origin xyz="5.879202911245329e-4 -3.747924692820703e-9 -0.02000061661590158" rpy="0 -0 0"/>
      <inertia ixx="0.01" ixy="0" ixz="0" iyy="0.01" iyz="0" izz="0.01"/>
    </inertial>
    <visual>
      <origin xyz="0 0 0" rpy="0 -0 0"/>
      <geometry>
        <mesh filename="package://ergoCub/meshes/simmechanics/sim_ecub_1-1_l_foot_front.obj" scale="0.001 0.001 0.001"/>
      </geometry>
      <material name="">
        <color rgba="1 0.51 0 1"/>
      </material>
    </visual>
    <collision>
      <origin xyz="0 0 -0.0193" rpy="0 -0 0"/>
      <geometry>
        <box size="0.117 0.1 0.006"/>
      </geometry>
    </collision>
  </link>
  <joint name="l_foot_rear_ft_sensor" type="fixed">
    <origin xyz="0.015999999999999986 -4.163336342344337e-17 -0.04789999999999994" rpy="-1.0970096963229695e-30 1.942890293093975e-16 2.0306083615826833e-17"/>
    <parent link="l_ankle_2"/>
    <child link="l_foot_rear"/>
  </joint>
  <link name="l_foot_rear">
    <inertial>
      <mass value="0.22110467939552797"/>
      <origin xyz="5.879202911244826e-4 -3.7479246789429155e-9 -0.020000616615901134" rpy="0 -0 0"/>
      <inertia ixx="0.01" ixy="0" ixz="0" iyy="0.01" iyz="0" izz="0.01"/>
    </inertial>
    <visual>
      <origin xyz="0 0 0" rpy="0 -0 0"/>
      <geometry>
        <mesh filename="package://ergoCub/meshes/simmechanics/sim_ecub_1-1_l_foot_rear.obj" scale="0.001 0.001 0.001"/>
      </geometry>
      <material name="">
        <color rgba="1 0.51 0 1"/>
      </material>
    </visual>
    <collision>
      <origin xyz="0 0 -0.0193" rpy="0 -0 0"/>
      <geometry>
        <box size="0.117 0.1 0.006"/>
      </geometry>
    </collision>
  </link>
  <link name="head_imu_0"/>
  <joint name="head_imu_0_fixed_joint" type="fixed">
    <origin xyz="-0.004299999999999899 -0.005500000000001061 0.03823450000000106" rpy="-3.141592653589788 -9.688477917552238e-15 1.5707963267948986"/>
    <parent link="head"/>
    <child link="head_imu_0"/>
  </joint>
  <link name="realsense_imu_0"/>
  <joint name="realsense_imu_0_fixed_joint" type="fixed">
    <origin xyz="0.007515481871156526 0.010000000000000002 1.7352099479506222e-8" rpy="-1.5707963267948966 3.7596758519972983e-16 -1.5707963267948966"/>
    <parent link="realsense"/>
    <child link="realsense_imu_0"/>
  </joint>
  <link name="l_arm_ft"/>
  <joint name="l_arm_ft_fixed_joint" type="fixed">
    <origin xyz="-0.004349999999999996 -2.7755575615628914e-17 -0.054300000000000015" rpy="3.141592653589793 2.498001805406602e-16 -1.5707963267948952"/>
    <parent link="l_shoulder_2"/>
    <child link="l_arm_ft"/>
  </joint>
  <link name="l_foot_front_ft"/>
  <joint name="l_foot_front_ft_fixed_joint" type="fixed">
    <origin xyz="0.13525 -4.163336342344337e-17 -0.047899999999999054" rpy="-4.259189482954547e-17 -7.513330770412076e-17 -2.0943951023931966"/>
    <parent link="l_ankle_2"/>
    <child link="l_foot_front_ft"/>
  </joint>
  <link name="l_foot_rear_ft"/>
  <joint name="l_foot_rear_ft_fixed_joint" type="fixed">
    <origin xyz="0.015999999999999993 -2.7755575615628914e-17 -0.04789999999999983" rpy="-4.259189482954531e-17 -7.513330770412153e-17 -2.0943951023931957"/>
    <parent link="l_ankle_2"/>
    <child link="l_foot_rear_ft"/>
  </joint>
  <link name="l_leg_ft"/>
  <joint name="l_leg_ft_fixed_joint" type="fixed">
    <origin xyz="0.03669999999999986 -1.3877787807814457e-17 -0.08969999999999997" rpy="-3.1415926535897927 -1.4675346083959194e-15 2.617993877991494"/>
    <parent link="l_hip_2"/>
    <child link="l_leg_ft"/>
  </joint>
  <link name="r_arm_ft"/>
  <joint name="r_arm_ft_fixed_joint" type="fixed">
    <origin xyz="-0.006849999999999986 -2.7755575615628914e-17 -0.05429999999999999" rpy="3.141592653589793 1.6653345369377348e-16 1.5707963267948981"/>
    <parent link="r_shoulder_2"/>
    <child link="r_arm_ft"/>
  </joint>
  <link name="r_foot_front_ft"/>
  <joint name="r_foot_front_ft_fixed_joint" type="fixed">
    <origin xyz="0.13525 1.3877787807814457e-17 -0.04789999999999983" rpy="-4.2591894829555776e-17 -7.513330770412949e-17 -2.094395102393197"/>
    <parent link="r_ankle_2"/>
    <child link="r_foot_front_ft"/>
  </joint>
  <link name="r_foot_rear_ft"/>
  <joint name="r_foot_rear_ft_fixed_joint" type="fixed">
    <origin xyz="0.016 1.3877787807814457e-17 -0.04789999999999994" rpy="-4.2591894829543154e-17 -7.513330770412949e-17 -2.0943951023931966"/>
    <parent link="r_ankle_2"/>
    <child link="r_foot_rear_ft"/>
  </joint>
  <link name="r_leg_ft"/>
  <joint name="r_leg_ft_fixed_joint" type="fixed">
    <origin xyz="0.03669999999999999 0 -0.08969999999999997" rpy="-3.1415926535897927 -8.654368135774127e-16 -2.6179938779914935"/>
    <parent link="r_hip_2"/>
    <child link="r_leg_ft"/>
  </joint>
  <link name="realsense_depth_frame"/>
  <joint name="realsense_depth_frame_fixed_joint" type="fixed">
    <origin xyz="0.007515481871156526 0.010000000000000002 1.7352099479506222e-8" rpy="-1.5707963267948966 3.7596758519972983e-16 -1.5707963267948966"/>
    <parent link="realsense"/>
    <child link="realsense_depth_frame"/>
  </joint>
  <link name="imu_frame"/>
  <joint name="imu_frame_fixed_joint" type="fixed">
    <origin xyz="-0.004299999999999899 -0.005500000000001061 0.03823450000000106" rpy="-3.141592653589788 -9.688477917552238e-15 1.5707963267948986"/>
    <parent link="head"/>
    <child link="imu_frame"/>
  </joint>
  <link name="realsense_rgb_frame"/>
  <joint name="realsense_rgb_frame_fixed_joint" type="fixed">
    <origin xyz="0.007515481871156526 -0.011499999999999996 1.7352099701550827e-8" rpy="-1.5707963267948966 3.7596758519972983e-16 -1.5707963267948966"/>
    <parent link="realsense"/>
    <child link="realsense_rgb_frame"/>
  </joint>
  <link name="head_laser_frame"/>
  <joint name="head_laser_frame_fixed_joint" type="fixed">
    <origin xyz="5.000000000061726e-5 -1.938549701738834e-15 0.13480249990363524" rpy="9.721954681893984e-15 5.33156930061495e-15 3.167605067133685e-15"/>
    <parent link="head"/>
    <child link="head_laser_frame"/>
  </joint>
  <link name="l_hand_index_skin_0"/>
  <joint name="l_hand_index_skin_0_fixed_joint" type="fixed">
    <origin xyz="-1.3877787807814457e-17 -0.002433918058236534 -0.03140545777888892" rpy="-5.286130912234566e-16 1.2225055986691187 -1.570796326794897"/>
    <parent link="l_hand_index_3"/>
    <child link="l_hand_index_skin_0"/>
  </joint>
  <link name="l_hand_index_skin_1"/>
  <joint name="l_hand_index_skin_1_fixed_joint" type="fixed">
    <origin xyz="0.0032999999999999974 -0.0031311476143919548 -0.033280418005286916" rpy="-5.049308804587452e-16 1.2200949024613605 -1.570796326794897"/>
    <parent link="l_hand_index_3"/>
    <child link="l_hand_index_skin_1"/>
  </joint>
  <link name="l_hand_index_skin_10"/>
  <joint name="l_hand_index_skin_10_fixed_joint" type="fixed">
    <origin xyz="-0.003300000000000025 -0.004081940988398508 -0.03776668459795801" rpy="-3.1415926535897913 1.5049109712528748 1.5707963267948997"/>
    <parent link="l_hand_index_3"/>
    <child link="l_hand_index_skin_10"/>
  </joint>
  <link name="l_hand_index_skin_11"/>
  <joint name="l_hand_index_skin_11_fixed_joint" type="fixed">
    <origin xyz="-0.0033000000000000113 -0.0031311476143919548 -0.033280418005286916" rpy="-5.049308804587451e-16 1.2200949024613599 -1.570796326794897"/>
    <parent link="l_hand_index_3"/>
    <child link="l_hand_index_skin_11"/>
  </joint>
  <link name="l_hand_index_skin_2"/>
  <joint name="l_hand_index_skin_2_fixed_joint" type="fixed">
    <origin xyz="-6.938893903907228e-18 -0.003758241653579991 -0.035192049408458936" rpy="-6.620570360759466e-16 1.3056813328515076 -1.5707963267948972"/>
    <parent link="l_hand_index_3"/>
    <child link="l_hand_index_skin_2"/>
  </joint>
  <link name="l_hand_index_skin_3"/>
  <joint name="l_hand_index_skin_3_fixed_joint" type="fixed">
    <origin xyz="0.0032999999999999974 -0.004081940988398425 -0.03776668459795801" rpy="-3.1415926535897913 1.5049109712528748 1.5707963267948997"/>
    <parent link="l_hand_index_3"/>
    <child link="l_hand_index_skin_3"/>
  </joint>
  <link name="l_hand_index_skin_4"/>
  <joint name="l_hand_index_skin_4_fixed_joint" type="fixed">
    <origin xyz="0.005929525942276338 -0.001192320688661208 -0.03799999999999998" rpy="3.1415926535897922 1.2994442229713599 2.7771555423255903"/>
    <parent link="l_hand_index_3"/>
    <child link="l_hand_index_skin_4"/>
  </joint>
  <link name="l_hand_index_skin_5"/>
  <joint name="l_hand_index_skin_5_fixed_joint" type="fixed">
    <origin xyz="1.3877787807814457e-17 -0.0034840921633512434 -0.03982136611863335" rpy="-3.1415926535897927 1.088751329798359 1.5707963267948972"/>
    <parent link="l_hand_index_3"/>
    <child link="l_hand_index_skin_5"/>
  </joint>
  <link name="l_hand_index_skin_6"/>
  <joint name="l_hand_index_skin_6_fixed_joint" type="fixed">
    <origin xyz="0.0032999999999999696 -0.001828801718873424 -0.04176963440415199" rpy="3.141592653589793 0.7788155893137823 2.5320677565812"/>
    <parent link="l_hand_index_3"/>
    <child link="l_hand_index_skin_6"/>
  </joint>
  <link name="l_hand_index_skin_7"/>
  <joint name="l_hand_index_skin_7_fixed_joint" type="fixed">
    <origin xyz="-6.938893903907228e-18 -2.9018466437888413e-4 -0.043259640911881" rpy="-3.141592653589793 0.6209480183022732 1.571212482632116"/>
    <parent link="l_hand_index_3"/>
    <child link="l_hand_index_skin_7"/>
  </joint>
  <link name="l_hand_index_skin_8"/>
  <joint name="l_hand_index_skin_8_fixed_joint" type="fixed">
    <origin xyz="-0.003300000000000025 -0.0018288017188733685 -0.041769634404151934" rpy="-3.1415926535897927 0.7788155893137829 0.6095248970085935"/>
    <parent link="l_hand_index_3"/>
    <child link="l_hand_index_skin_8"/>
  </joint>
  <link name="l_hand_index_skin_9"/>
  <joint name="l_hand_index_skin_9_fixed_joint" type="fixed">
    <origin xyz="-0.005929525942276387 -0.001192320688661208 -0.03799999999999998" rpy="-3.141592653589792 1.2994442229713608 0.36443711126420336"/>
    <parent link="l_hand_index_3"/>
    <child link="l_hand_index_skin_9"/>
  </joint>
  <link name="l_hand_middle_skin_0"/>
  <joint name="l_hand_middle_skin_0_fixed_joint" type="fixed">
    <origin xyz="0 -0.002433918058236506 -0.03140545777888887" rpy="1.626501819149097e-16 1.22250559866912 -1.5707963267948966"/>
    <parent link="l_hand_middle_2"/>
    <child link="l_hand_middle_skin_0"/>
  </joint>
  <link name="l_hand_middle_skin_1"/>
  <joint name="l_hand_middle_skin_1_fixed_joint" type="fixed">
    <origin xyz="0.0033000000000000043 -0.003131147614391927 -0.033280418005286805" rpy="1.615778817467984e-16 1.2200949024613614 -1.5707963267948966"/>
    <parent link="l_hand_middle_2"/>
    <child link="l_hand_middle_skin_1"/>
  </joint>
  <link name="l_hand_middle_skin_10"/>
  <joint name="l_hand_middle_skin_10_fixed_joint" type="fixed">
    <origin xyz="-0.003299999999999973 -0.004081940988398425 -0.037766684597957956" rpy="3.1415926535897922 1.5049109712528765 1.5707963267948972"/>
    <parent link="l_hand_middle_2"/>
    <child link="l_hand_middle_skin_10"/>
  </joint>
  <link name="l_hand_middle_skin_11"/>
  <joint name="l_hand_middle_skin_11_fixed_joint" type="fixed">
    <origin xyz="-0.003299999999999994 -0.0031311476143918715 -0.033280418005286805" rpy="1.615778817467984e-16 1.2200949024613614 -1.5707963267948966"/>
    <parent link="l_hand_middle_2"/>
    <child link="l_hand_middle_skin_11"/>
  </joint>
  <link name="l_hand_middle_skin_2"/>
  <joint name="l_hand_middle_skin_2_fixed_joint" type="fixed">
    <origin xyz="-6.938893903907228e-18 -0.0037582416535799634 -0.035192049408458936" rpy="2.118582515443029e-16 1.305681332851508 -1.5707963267948966"/>
    <parent link="l_hand_middle_2"/>
    <child link="l_hand_middle_skin_2"/>
  </joint>
  <link name="l_hand_middle_skin_3"/>
  <joint name="l_hand_middle_skin_3_fixed_joint" type="fixed">
    <origin xyz="0.0033000000000000113 -0.004081940988398369 -0.03776668459795801" rpy="3.1415926535897922 1.5049109712528765 1.5707963267948968"/>
    <parent link="l_hand_middle_2"/>
    <child link="l_hand_middle_skin_3"/>
  </joint>
  <link name="l_hand_middle_skin_4"/>
  <joint name="l_hand_middle_skin_4_fixed_joint" type="fixed">
    <origin xyz="0.005929525942276356 -0.0011923206886611804 -0.03799999999999998" rpy="3.1415926535897922 1.2994442229713614 2.7771555423255903"/>
    <parent link="l_hand_middle_2"/>
    <child link="l_hand_middle_skin_4"/>
  </joint>
  <link name="l_hand_middle_skin_5"/>
  <joint name="l_hand_middle_skin_5_fixed_joint" type="fixed">
    <origin xyz="1.0408340855860843e-17 -0.0034840921633511046 -0.03982136611863335" rpy="3.141592653589793 1.0887513297983595 1.570796326794897"/>
    <parent link="l_hand_middle_2"/>
    <child link="l_hand_middle_skin_5"/>
  </joint>
  <link name="l_hand_middle_skin_6"/>
  <joint name="l_hand_middle_skin_6_fixed_joint" type="fixed">
    <origin xyz="0.003300000000000008 -0.0018288017188733685 -0.04176963440415188" rpy="3.1415926535897927 0.7788155893137828 2.5320677565811995"/>
    <parent link="l_hand_middle_2"/>
    <child link="l_hand_middle_skin_6"/>
  </joint>
  <link name="l_hand_middle_skin_7"/>
  <joint name="l_hand_middle_skin_7_fixed_joint" type="fixed">
    <origin xyz="-3.469446951953614e-18 -2.9018466437885637e-4 -0.04325964091188095" rpy="3.141592653589793 0.6209480183022731 1.571212482632116"/>
    <parent link="l_hand_middle_2"/>
    <child link="l_hand_middle_skin_7"/>
  </joint>
  <link name="l_hand_middle_skin_8"/>
  <joint name="l_hand_middle_skin_8_fixed_joint" type="fixed">
    <origin xyz="-0.003299999999999994 -0.0018288017188733963 -0.041769634404151934" rpy="-3.141592653589793 0.7788155893137828 0.6095248970085932"/>
    <parent link="l_hand_middle_2"/>
    <child link="l_hand_middle_skin_8"/>
  </joint>
  <link name="l_hand_middle_skin_9"/>
  <joint name="l_hand_middle_skin_9_fixed_joint" type="fixed">
    <origin xyz="-0.0059295259422763695 -0.001192320688661208 -0.03799999999999998" rpy="-3.1415926535897922 1.2994442229713608 0.3644371112642029"/>
    <parent link="l_hand_middle_2"/>
    <child link="l_hand_middle_skin_9"/>
  </joint>
  <link name="l_hand_pinkie_skin_0"/>
  <joint name="l_hand_pinkie_skin_0_fixed_joint" type="fixed">
    <origin xyz="1.1364587082021704e-6 -0.0024339180633243807 -0.03140545776518122" rpy="4.4810406990145916e-5 1.222505598463966 -1.5707618523704918"/>
    <parent link="l_hand_pinkie_2"/>
    <child link="l_hand_pinkie_skin_0"/>
  </joint>
  <link name="l_hand_pinkie_skin_1"/>
  <joint name="l_hand_pinkie_skin_1_fixed_joint" type="fixed">
    <origin xyz="0.003301159802142385 -0.003131172849448638 -0.033280367523160825" rpy="4.451498643578038e-5 1.2200949022586114 -1.5707621667995164"/>
    <parent link="l_hand_pinkie_2"/>
    <child link="l_hand_pinkie_skin_1"/>
  </joint>
  <link name="l_hand_pinkie_skin_10"/>
  <joint name="l_hand_pinkie_skin_10_fixed_joint" type="fixed">
    <origin xyz="-0.003298778855785424 -0.004081915763448796 -0.037766735051979805" rpy="3.14136036390978 1.5049109693635563 1.5705568956520668"/>
    <parent link="l_hand_pinkie_2"/>
    <child link="l_hand_pinkie_skin_10"/>
  </joint>
  <link name="l_hand_pinkie_skin_11"/>
  <joint name="l_hand_pinkie_skin_11_fixed_joint" type="fixed">
    <origin xyz="-0.003298840196892895 -0.0031311223894700813 -0.033280468459722046" rpy="4.4514986435780384e-5 1.2200949022586114 -1.5707621667995162"/>
    <parent link="l_hand_pinkie_2"/>
    <child link="l_hand_pinkie_skin_11"/>
  </joint>
  <link name="l_hand_pinkie_skin_2"/>
  <joint name="l_hand_pinkie_skin_2_fixed_joint" type="fixed">
    <origin xyz="1.1842435866243894e-6 -0.0037582416586290635 -0.0351920493944633" rpy="5.8367315429754e-5 1.305681332537708 -1.570747644146057"/>
    <parent link="l_hand_pinkie_2"/>
    <child link="l_hand_pinkie_skin_2"/>
  </joint>
  <link name="l_hand_pinkie_skin_3"/>
  <joint name="l_hand_pinkie_skin_3_fixed_joint" type="fixed">
    <origin xyz="0.0033012211432498564 -0.00408196622342738 -0.03776663411541853" rpy="3.14136036390978 1.5049109693635563 1.5705568956520668"/>
    <parent link="l_hand_pinkie_2"/>
    <child link="l_hand_pinkie_skin_3"/>
  </joint>
  <link name="l_hand_pinkie_skin_4"/>
  <joint name="l_hand_pinkie_skin_4_fixed_joint" type="fixed">
    <origin xyz="0.005930772745783179 -0.0011923660276871306 -0.037999909302654955" rpy="3.141572315440389 1.2994585118923023 2.7771283028717044"/>
    <parent link="l_hand_pinkie_2"/>
    <child link="l_hand_pinkie_skin_4"/>
  </joint>
  <link name="l_hand_pinkie_skin_5"/>
  <joint name="l_hand_pinkie_skin_5_fixed_joint" type="fixed">
    <origin xyz="1.2571376604118834e-6 -0.003484092168408337 -0.03982136610406428" rpy="3.1415596646367674 1.0887513294579219 1.570759451523612"/>
    <parent link="l_hand_pinkie_2"/>
    <child link="l_hand_pinkie_skin_5"/>
  </joint>
  <link name="l_hand_pinkie_skin_6"/>
  <joint name="l_hand_pinkie_skin_6_fixed_joint" type="fixed">
    <origin xyz="0.0033012995883024976 -0.00182882695396816 -0.04176958392088087" rpy="3.1415803523625088 0.7788281285900823 2.532051470238895"/>
    <parent link="l_hand_pinkie_2"/>
    <child link="l_hand_pinkie_skin_6"/>
  </joint>
  <link name="l_hand_pinkie_skin_7"/>
  <joint name="l_hand_pinkie_skin_7_fixed_joint" type="fixed">
    <origin xyz="1.3341394995113054e-6 -2.901846695293475e-4 -0.04325964089653633" rpy="3.141573850067606 0.6209480244661378 1.571193897169884"/>
    <parent link="l_hand_pinkie_2"/>
    <child link="l_hand_pinkie_skin_7"/>
  </joint>
  <link name="l_hand_pinkie_skin_8"/>
  <joint name="l_hand_pinkie_skin_8_fixed_joint" type="fixed">
    <origin xyz="-0.003298700410732769 -0.0018287764939896034 -0.041769684857442146" rpy="3.1415803529363586 0.7788030498279591 0.6095086111791652"/>
    <parent link="l_hand_pinkie_2"/>
    <child link="l_hand_pinkie_skin_8"/>
  </joint>
  <link name="l_hand_pinkie_skin_9"/>
  <joint name="l_hand_pinkie_skin_9_fixed_joint" type="fixed">
    <origin xyz="-0.005928279137036092 -0.0011922753598834768 -0.0380000906680969" rpy="3.14157231834453 1.2994299338602708 0.36440987468608"/>
    <parent link="l_hand_pinkie_2"/>
    <child link="l_hand_pinkie_skin_9"/>
  </joint>
  <link name="l_hand_ring_skin_0"/>
  <joint name="l_hand_ring_skin_0_fixed_joint" type="fixed">
    <origin xyz="6.938893903907228e-18 -0.0024339180582365616 -0.03140545777888881" rpy="5.692756367021836e-16 1.222505598669119 -1.5707963267948966"/>
    <parent link="l_hand_ring_2"/>
    <child link="l_hand_ring_skin_0"/>
  </joint>
  <link name="l_hand_ring_skin_1"/>
  <joint name="l_hand_ring_skin_1_fixed_joint" type="fixed">
    <origin xyz="0.0033000000000000095 -0.0031311476143919548 -0.033280418005286805" rpy="5.655225861137946e-16 1.2200949024613605 -1.5707963267948966"/>
    <parent link="l_hand_ring_2"/>
    <child link="l_hand_ring_skin_1"/>
  </joint>
  <link name="l_hand_ring_skin_10"/>
  <joint name="l_hand_ring_skin_10_fixed_joint" type="fixed">
    <origin xyz="-0.0033000000000000043 -0.004081940988398369 -0.037766684597957956" rpy="3.141592653589791 1.5049109712528765 1.5707963267948966"/>
    <parent link="l_hand_ring_2"/>
    <child link="l_hand_ring_skin_10"/>
  </joint>
  <link name="l_hand_ring_skin_11"/>
  <joint name="l_hand_ring_skin_11_fixed_joint" type="fixed">
    <origin xyz="-0.0032999999999999887 -0.003131147614391927 -0.03328041800528686" rpy="5.655225861137945e-16 1.2200949024613605 -1.5707963267948966"/>
    <parent link="l_hand_ring_2"/>
    <child link="l_hand_ring_skin_11"/>
  </joint>
  <link name="l_hand_ring_skin_2"/>
  <joint name="l_hand_ring_skin_2_fixed_joint" type="fixed">
    <origin xyz="-5.204170427930421e-18 -0.003758241653579991 -0.03519204940845888" rpy="6.885393175189842e-16 1.305681332851508 -1.5707963267948963"/>
    <parent link="l_hand_ring_2"/>
    <child link="l_hand_ring_skin_2"/>
  </joint>
  <link name="l_hand_ring_skin_3"/>
  <joint name="l_hand_ring_skin_3_fixed_joint" type="fixed">
    <origin xyz="0.003300000000000008 -0.004081940988398397 -0.037766684597957956" rpy="3.141592653589791 1.5049109712528765 1.5707963267948968"/>
    <parent link="l_hand_ring_2"/>
    <child link="l_hand_ring_skin_3"/>
  </joint>
  <link name="l_hand_ring_skin_4"/>
  <joint name="l_hand_ring_skin_4_fixed_joint" type="fixed">
    <origin xyz="0.005929525942276373 -0.0011923206886612359 -0.03799999999999992" rpy="3.141592653589792 1.299444222971361 2.7771555423255903"/>
    <parent link="l_hand_ring_2"/>
    <child link="l_hand_ring_skin_4"/>
  </joint>
  <link name="l_hand_ring_skin_5"/>
  <joint name="l_hand_ring_skin_5_fixed_joint" type="fixed">
    <origin xyz="6.938893903907228e-18 -0.00348409216335116 -0.03982136611863335" rpy="3.1415926535897927 1.088751329798359 1.5707963267948968"/>
    <parent link="l_hand_ring_2"/>
    <child link="l_hand_ring_skin_5"/>
  </joint>
  <link name="l_hand_ring_skin_6"/>
  <joint name="l_hand_ring_skin_6_fixed_joint" type="fixed">
    <origin xyz="0.003299999999999994 -0.0018288017188733685 -0.041769634404151934" rpy="3.1415926535897927 0.7788155893137829 2.5320677565811995"/>
    <parent link="l_hand_ring_2"/>
    <child link="l_hand_ring_skin_6"/>
  </joint>
  <link name="l_hand_ring_skin_7"/>
  <joint name="l_hand_ring_skin_7_fixed_joint" type="fixed">
    <origin xyz="1.9081958235744878e-17 -2.9018466437888413e-4 -0.04325964091188089" rpy="3.141592653589793 0.6209480183022733 1.5712124826321159"/>
    <parent link="l_hand_ring_2"/>
    <child link="l_hand_ring_skin_7"/>
  </joint>
  <link name="l_hand_ring_skin_8"/>
  <joint name="l_hand_ring_skin_8_fixed_joint" type="fixed">
    <origin xyz="-0.0032999999999999852 -0.0018288017188733685 -0.041769634404151934" rpy="-3.141592653589793 0.7788155893137823 0.6095248970085929"/>
    <parent link="l_hand_ring_2"/>
    <child link="l_hand_ring_skin_8"/>
  </joint>
  <link name="l_hand_ring_skin_9"/>
  <joint name="l_hand_ring_skin_9_fixed_joint" type="fixed">
    <origin xyz="-0.005929525942276356 -0.0011923206886611804 -0.03799999999999992" rpy="-3.1415926535897927 1.2994442229713594 0.3644371112642026"/>
    <parent link="l_hand_ring_2"/>
    <child link="l_hand_ring_skin_9"/>
  </joint>
  <link name="l_sole"/>
  <joint name="l_sole_fixed_joint" type="fixed">
    <origin xyz="0.059629999999999996 -1.3877787807814457e-17 -0.024299999999999877" rpy="0 1.5094274020956558e-31 0"/>
    <parent link="l_foot_rear"/>
    <child link="l_sole"/>
  </joint>
  <link name="l_hand_thumb_skin_0"/>
  <joint name="l_hand_thumb_skin_0_fixed_joint" type="fixed">
    <origin xyz="0.026405457778888957 -0.002433918058236617 5.551115123125783e-17" rpy="-1.5707963267948963 1.1102230246251565e-16 2.793301925464017"/>
    <parent link="l_hand_thumb_3"/>
    <child link="l_hand_thumb_skin_0"/>
  </joint>
  <link name="l_hand_thumb_skin_1"/>
  <joint name="l_hand_thumb_skin_1_fixed_joint" type="fixed">
    <origin xyz="0.028280418005286963 -0.0031311476143920103 0.0033000000000000806" rpy="-1.5707963267948961 -7.216449660063518e-16 -2.1816615649914324"/>
    <parent link="l_hand_thumb_3"/>
    <child link="l_hand_thumb_skin_1"/>
  </joint>
  <link name="l_hand_thumb_skin_10"/>
  <joint name="l_hand_thumb_skin_10_fixed_joint" type="fixed">
    <origin xyz="0.032766684597958076 -0.004081940988398508 -0.0032999999999999696" rpy="-1.5707963267948961 -5.551115123125783e-17 -3.075707298047779"/>
    <parent link="l_hand_thumb_3"/>
    <child link="l_hand_thumb_skin_10"/>
  </joint>
  <link name="l_hand_thumb_skin_11"/>
  <joint name="l_hand_thumb_skin_11_fixed_joint" type="fixed">
    <origin xyz="0.028280418005286963 -0.0031311476143919825 -0.0032999999999999696" rpy="-1.5707963267948961 -0 2.790891229256258"/>
    <parent link="l_hand_thumb_3"/>
    <child link="l_hand_thumb_skin_11"/>
  </joint>
  <link name="l_hand_thumb_skin_2"/>
  <joint name="l_hand_thumb_skin_2_fixed_joint" type="fixed">
    <origin xyz="0.030192049408458998 -0.0037582416535800467 0" rpy="-1.5707963267948961 -0 2.8764776596464054"/>
    <parent link="l_hand_thumb_3"/>
    <child link="l_hand_thumb_skin_2"/>
  </joint>
  <link name="l_hand_thumb_skin_3"/>
  <joint name="l_hand_thumb_skin_3_fixed_joint" type="fixed">
    <origin xyz="0.03276668459795809 -0.004081940988398536 0.003300000000000025" rpy="-1.5707963267948961 -7.216449660063518e-16 -2.1816615649914324"/>
    <parent link="l_hand_thumb_3"/>
    <child link="l_hand_thumb_skin_3"/>
  </joint>
  <link name="l_hand_thumb_skin_4"/>
  <joint name="l_hand_thumb_skin_4_fixed_joint" type="fixed">
    <origin xyz="0.03300000000000006 -0.0011923206886612636 0.005929525942276415" rpy="-3.1415926535897927 3.3306690738754696e-16 -3.1415926535883125"/>
    <parent link="l_hand_thumb_3"/>
    <child link="l_hand_thumb_skin_4"/>
  </joint>
  <link name="l_hand_thumb_skin_5"/>
  <joint name="l_hand_thumb_skin_5_fixed_joint" type="fixed">
    <origin xyz="0.034821366118633415 -0.0034840921633512156 8.326672684688674e-17" rpy="-1.5707963267948963 -2.220446049250313e-16 -2.6595476565932565"/>
    <parent link="l_hand_thumb_3"/>
    <child link="l_hand_thumb_skin_5"/>
  </joint>
  <link name="l_hand_thumb_skin_6"/>
  <joint name="l_hand_thumb_skin_6_fixed_joint" type="fixed">
    <origin xyz="0.036769634404151985 -0.0018288017188734795 0.003300000000000053" rpy="1.5707963267948968 -2.7755575615628914e-16 -2.399827721490722"/>
    <parent link="l_hand_thumb_3"/>
    <child link="l_hand_thumb_skin_6"/>
  </joint>
  <link name="l_hand_thumb_skin_7"/>
  <joint name="l_hand_thumb_skin_7_fixed_joint" type="fixed">
    <origin xyz="0.03825964091188104 -2.9018466437893964e-4 0" rpy="-1.570554204626614 -3.384708831138008e-4 -2.1917443860728234"/>
    <parent link="l_hand_thumb_3"/>
    <child link="l_hand_thumb_skin_7"/>
  </joint>
  <link name="l_hand_thumb_skin_8"/>
  <joint name="l_hand_thumb_skin_8_fixed_joint" type="fixed">
    <origin xyz="0.03676963440415201 -0.001828801718873424 -0.003299999999999942" rpy="-2.3592109405351698 0.6231239758157896 -2.6159603834403367"/>
    <parent link="l_hand_thumb_3"/>
    <child link="l_hand_thumb_skin_8"/>
  </joint>
  <link name="l_hand_thumb_skin_9"/>
  <joint name="l_hand_thumb_skin_9_fixed_joint" type="fixed">
    <origin xyz="0.03300000000000007 -0.0011923206886612636 -0.005929525942276359" rpy="-2.7645689049691455 0.25312544974719003 -3.042753660865159"/>
    <parent link="l_hand_thumb_3"/>
    <child link="l_hand_thumb_skin_9"/>
  </joint>
  <link name="r_hand_index_skin_0"/>
  <joint name="r_hand_index_skin_0_fixed_joint" type="fixed">
    <origin xyz="3.469446951953614e-17 -0.002433928982192385 -0.03140545693228214" rpy="2.8463754567347765e-16 1.2225052508328904 -1.5707963267948963"/>
    <parent link="r_hand_index_3"/>
    <child link="r_hand_index_skin_0"/>
  </joint>
  <link name="r_hand_index_skin_1"/>
  <joint name="r_hand_index_skin_1_fixed_joint" type="fixed">
    <origin xyz="0.0032999999999999974 -0.0031311591905268388 -0.033280416916158295" rpy="2.4236659217065896e-16 1.2200945546251307 -1.5707963267948963"/>
    <parent link="r_hand_index_3"/>
    <child link="r_hand_index_skin_1"/>
  </joint>
  <link name="r_hand_index_skin_10"/>
  <joint name="r_hand_index_skin_10_fixed_joint" type="fixed">
    <origin xyz="-0.0032999999999999696 -0.0040819541250192715 -0.03776668317810877" rpy="3.1415926535897922 1.5049113190891115 1.5707963267948952"/>
    <parent link="r_hand_index_3"/>
    <child link="r_hand_index_skin_10"/>
  </joint>
  <link name="r_hand_index_skin_11"/>
  <joint name="r_hand_index_skin_11_fixed_joint" type="fixed">
    <origin xyz="-0.0033000000000000043 -0.0031311591905267833 -0.033280416916158295" rpy="2.4236659217065896e-16 1.2200945546251307 -1.5707963267948963"/>
    <parent link="r_hand_index_3"/>
    <child link="r_hand_index_skin_11"/>
  </joint>
  <link name="r_hand_index_skin_2"/>
  <joint name="r_hand_index_skin_2_fixed_joint" type="fixed">
    <origin xyz="6.938893903907228e-18 -0.003758253894649538 -0.03519204810120419" rpy="3.177869701880381e-16 1.3056809850152777 -1.5707963267948961"/>
    <parent link="r_hand_index_3"/>
    <child link="r_hand_index_skin_2"/>
  </joint>
  <link name="r_hand_index_skin_3"/>
  <joint name="r_hand_index_skin_3_fixed_joint" type="fixed">
    <origin xyz="0.0033000000000000043 -0.004081954125019299 -0.03776668317810877" rpy="3.1415926535897922 1.5049113190891115 1.5707963267948952"/>
    <parent link="r_hand_index_3"/>
    <child link="r_hand_index_skin_3"/>
  </joint>
  <link name="r_hand_index_skin_4"/>
  <joint name="r_hand_index_skin_4_fixed_joint" type="fixed">
    <origin xyz="0.005929525942276359 -0.0011923339064377758 -0.03799999958526529" rpy="-3.1415914410880514 1.299444346948154 2.777156710461142"/>
    <parent link="r_hand_index_3"/>
    <child link="r_hand_index_skin_4"/>
  </joint>
  <link name="r_hand_index_skin_5"/>
  <joint name="r_hand_index_skin_5_fixed_joint" type="fixed">
    <origin xyz="6.938893903907228e-18 -0.003484106014664784 -0.03982136490673749" rpy="3.141592653589793 1.0887516776345891 1.5707963267948963"/>
    <parent link="r_hand_index_3"/>
    <child link="r_hand_index_skin_5"/>
  </joint>
  <link name="r_hand_index_skin_6"/>
  <joint name="r_hand_index_skin_6_fixed_joint" type="fixed">
    <origin xyz="0.0033000000000000043 -0.0018288162478654058 -0.04176963376802595" rpy="-3.141592252887904 0.7788157884423246 2.5320680380490246"/>
    <parent link="r_hand_index_3"/>
    <child link="r_hand_index_skin_6"/>
  </joint>
  <link name="r_hand_index_skin_7"/>
  <joint name="r_hand_index_skin_7_fixed_joint" type="fixed">
    <origin xyz="-2.7755575615628914e-17 -2.901997116492028e-4 -0.04325964081094158" rpy="-3.1415926534118155 0.6209483661384732 1.5712124827356644"/>
    <parent link="r_hand_index_3"/>
    <child link="r_hand_index_skin_7"/>
  </joint>
  <link name="r_hand_index_skin_8"/>
  <joint name="r_hand_index_skin_8_fixed_joint" type="fixed">
    <origin xyz="-0.0032999999999999835 -0.0018288162478654058 -0.04176963376802595" rpy="3.141592252887904 0.7788157884423246 0.6095246155407682"/>
    <parent link="r_hand_index_3"/>
    <child link="r_hand_index_skin_8"/>
  </joint>
  <link name="r_hand_index_skin_9"/>
  <joint name="r_hand_index_skin_9_fixed_joint" type="fixed">
    <origin xyz="-0.005929525942276352 -0.0011923339064378036 -0.03799999958526534" rpy="3.1415914410880514 1.2994443469481536 0.36443594312865046"/>
    <parent link="r_hand_index_3"/>
    <child link="r_hand_index_skin_9"/>
  </joint>
  <link name="r_hand_middle_skin_0"/>
  <joint name="r_hand_middle_skin_0_fixed_joint" type="fixed">
    <origin xyz="-2.0816681711721685e-17 -0.002433918058236506 -0.03140545777888887" rpy="-2.4397527287236403e-16 1.2225055986691193 -1.570796326794897"/>
    <parent link="r_hand_middle_2"/>
    <child link="r_hand_middle_skin_0"/>
  </joint>
  <link name="r_hand_middle_skin_1"/>
  <joint name="r_hand_middle_skin_1_fixed_joint" type="fixed">
    <origin xyz="0.003299999999999987 -0.0031311476143918993 -0.033280418005286916" rpy="-2.4236682262019717e-16 1.2200949024613599 -1.5707963267948972"/>
    <parent link="r_hand_middle_2"/>
    <child link="r_hand_middle_skin_1"/>
  </joint>
  <link name="r_hand_middle_skin_10"/>
  <joint name="r_hand_middle_skin_10_fixed_joint" type="fixed">
    <origin xyz="-0.0033000000000000113 -0.004081940988398369 -0.03776668459795801" rpy="-3.141592653589792 1.5049109712528799 1.5707963267948983"/>
    <parent link="r_hand_middle_2"/>
    <child link="r_hand_middle_skin_10"/>
  </joint>
  <link name="r_hand_middle_skin_11"/>
  <joint name="r_hand_middle_skin_11_fixed_joint" type="fixed">
    <origin xyz="-0.003300000000000025 -0.0031311476143918715 -0.03328041800528686" rpy="-2.4236682262019727e-16 1.2200949024613594 -1.5707963267948972"/>
    <parent link="r_hand_middle_2"/>
    <child link="r_hand_middle_skin_11"/>
  </joint>
  <link name="r_hand_middle_skin_2"/>
  <joint name="r_hand_middle_skin_2_fixed_joint" type="fixed">
    <origin xyz="-4.5102810375396984e-17 -0.003758241653579991 -0.035192049408458936" rpy="-3.177873773164535e-16 1.3056813328515076 -1.5707963267948972"/>
    <parent link="r_hand_middle_2"/>
    <child link="r_hand_middle_skin_2"/>
  </joint>
  <link name="r_hand_middle_skin_3"/>
  <joint name="r_hand_middle_skin_3_fixed_joint" type="fixed">
    <origin xyz="0.003299999999999942 -0.004081940988398425 -0.03776668459795801" rpy="-3.141592653589792 1.5049109712528799 1.5707963267948986"/>
    <parent link="r_hand_middle_2"/>
    <child link="r_hand_middle_skin_3"/>
  </joint>
  <link name="r_hand_middle_skin_4"/>
  <joint name="r_hand_middle_skin_4_fixed_joint" type="fixed">
    <origin xyz="0.005929525942276321 -0.001192320688661208 -0.03799999999999998" rpy="-3.141592653589792 1.2994442229713614 2.7771555423255876"/>
    <parent link="r_hand_middle_2"/>
    <child link="r_hand_middle_skin_4"/>
  </joint>
  <link name="r_hand_middle_skin_5"/>
  <joint name="r_hand_middle_skin_5_fixed_joint" type="fixed">
    <origin xyz="-2.42861286636753e-17 -0.0034840921633511046 -0.03982136611863335" rpy="-3.141592653589793 1.08875132979836 1.5707963267948968"/>
    <parent link="r_hand_middle_2"/>
    <child link="r_hand_middle_skin_5"/>
  </joint>
  <link name="r_hand_middle_skin_6"/>
  <joint name="r_hand_middle_skin_6_fixed_joint" type="fixed">
    <origin xyz="0.0032999999999999766 -0.0018288017188733963 -0.041769634404151934" rpy="-3.1415926535897927 0.778815589313783 2.532067756581199"/>
    <parent link="r_hand_middle_2"/>
    <child link="r_hand_middle_skin_6"/>
  </joint>
  <link name="r_hand_middle_skin_7"/>
  <joint name="r_hand_middle_skin_7_fixed_joint" type="fixed">
    <origin xyz="-5.204170427930421e-17 -2.9018466437888413e-4 -0.04325964091188089" rpy="-3.141592653589793 0.6209480183022739 1.5712124826321157"/>
    <parent link="r_hand_middle_2"/>
    <child link="r_hand_middle_skin_7"/>
  </joint>
  <link name="r_hand_middle_skin_8"/>
  <joint name="r_hand_middle_skin_8_fixed_joint" type="fixed">
    <origin xyz="-0.0033000000000000217 -0.0018288017188733408 -0.04176963440415199" rpy="3.1415926535897927 0.778815589313783 0.6095248970085936"/>
    <parent link="r_hand_middle_2"/>
    <child link="r_hand_middle_skin_8"/>
  </joint>
  <link name="r_hand_middle_skin_9"/>
  <joint name="r_hand_middle_skin_9_fixed_joint" type="fixed">
    <origin xyz="-0.00592952594227638 -0.0011923206886611526 -0.03799999999999998" rpy="3.141592653589792 1.299444222971361 0.3644371112642049"/>
    <parent link="r_hand_middle_2"/>
    <child link="r_hand_middle_skin_9"/>
  </joint>
  <link name="r_hand_pinkie_skin_0"/>
  <joint name="r_hand_pinkie_skin_0_fixed_joint" type="fixed">
    <origin xyz="0 -0.0024339180582408637 -0.03140545777888881" rpy="2.6430654561173425e-16 1.2225055986691284 -1.5707963267948966"/>
    <parent link="r_hand_pinkie_2"/>
    <child link="r_hand_pinkie_skin_0"/>
  </joint>
  <link name="r_hand_pinkie_skin_1"/>
  <joint name="r_hand_pinkie_skin_1_fixed_joint" type="fixed">
    <origin xyz="0.0033000000000000113 -0.0031311476143962846 -0.03328041800528675" rpy="1.8177511696515236e-16 1.2200949024613699 -1.5707963267948966"/>
    <parent link="r_hand_pinkie_2"/>
    <child link="r_hand_pinkie_skin_1"/>
  </joint>
  <link name="r_hand_pinkie_skin_10"/>
  <joint name="r_hand_pinkie_skin_10_fixed_joint" type="fixed">
    <origin xyz="-0.0032999999999999974 -0.004081940988402782 -0.037766684597957845" rpy="3.1415926535897922 1.5049109712528714 1.5707963267948974"/>
    <parent link="r_hand_pinkie_2"/>
    <child link="r_hand_pinkie_skin_10"/>
  </joint>
  <link name="r_hand_pinkie_skin_11"/>
  <joint name="r_hand_pinkie_skin_11_fixed_joint" type="fixed">
    <origin xyz="-0.0032999999999999904 -0.0031311476143963124 -0.033280418005286805" rpy="1.8177511696515236e-16 1.2200949024613699 -1.5707963267948966"/>
    <parent link="r_hand_pinkie_2"/>
    <child link="r_hand_pinkie_skin_11"/>
  </joint>
  <link name="r_hand_pinkie_skin_2"/>
  <joint name="r_hand_pinkie_skin_2_fixed_joint" type="fixed">
    <origin xyz="0 -0.003758241653584321 -0.03519204940845877" rpy="3.17787377316464e-16 1.3056813328515169 -1.5707963267948966"/>
    <parent link="r_hand_pinkie_2"/>
    <child link="r_hand_pinkie_skin_2"/>
  </joint>
  <link name="r_hand_pinkie_skin_3"/>
  <joint name="r_hand_pinkie_skin_3_fixed_joint" type="fixed">
    <origin xyz="0.003300000000000018 -0.004081940988402699 -0.0377666845979579" rpy="3.1415926535897922 1.5049109712528714 1.5707963267948977"/>
    <parent link="r_hand_pinkie_2"/>
    <child link="r_hand_pinkie_skin_3"/>
  </joint>
  <link name="r_hand_pinkie_skin_4"/>
  <joint name="r_hand_pinkie_skin_4_fixed_joint" type="fixed">
    <origin xyz="0.005929525942276366 -0.0011923206886655102 -0.03799999999999981" rpy="3.1415926535897625 1.2994442229713585 2.777155542325558"/>
    <parent link="r_hand_pinkie_2"/>
    <child link="r_hand_pinkie_skin_4"/>
  </joint>
  <link name="r_hand_pinkie_skin_5"/>
  <joint name="r_hand_pinkie_skin_5_fixed_joint" type="fixed">
    <origin xyz="1.3877787807814457e-17 -0.00348409216335549 -0.03982136611863324" rpy="3.141592653589793 1.0887513297983513 1.5707963267948968"/>
    <parent link="r_hand_pinkie_2"/>
    <child link="r_hand_pinkie_skin_5"/>
  </joint>
  <link name="r_hand_pinkie_skin_6"/>
  <joint name="r_hand_pinkie_skin_6_fixed_joint" type="fixed">
    <origin xyz="0.0033000000000000043 -0.0018288017188776429 -0.04176963440415177" rpy="3.1415926535897833 0.778815589313778 2.532067756581192"/>
    <parent link="r_hand_pinkie_2"/>
    <child link="r_hand_pinkie_skin_6"/>
  </joint>
  <link name="r_hand_pinkie_skin_7"/>
  <joint name="r_hand_pinkie_skin_7_fixed_joint" type="fixed">
    <origin xyz="-6.938893903907228e-18 -2.901846643830752e-4 -0.04325964091188084" rpy="3.141592653589793 0.620948018302265 1.5712124826321159"/>
    <parent link="r_hand_pinkie_2"/>
    <child link="r_hand_pinkie_skin_7"/>
  </joint>
  <link name="r_hand_pinkie_skin_8"/>
  <joint name="r_hand_pinkie_skin_8_fixed_joint" type="fixed">
    <origin xyz="-0.0032999999999999904 -0.0018288017188776429 -0.04176963440415177" rpy="-3.1415926535897833 0.7788155893137778 0.6095248970086008"/>
    <parent link="r_hand_pinkie_2"/>
    <child link="r_hand_pinkie_skin_8"/>
  </joint>
  <link name="r_hand_pinkie_skin_9"/>
  <joint name="r_hand_pinkie_skin_9_fixed_joint" type="fixed">
    <origin xyz="-0.005929525942276352 -0.0011923206886654825 -0.03799999999999981" rpy="-3.141592653589763 1.299444222971359 0.3644371112642355"/>
    <parent link="r_hand_pinkie_2"/>
    <child link="r_hand_pinkie_skin_9"/>
  </joint>
  <link name="r_hand_ring_skin_0"/>
  <joint name="r_hand_ring_skin_0_fixed_joint" type="fixed">
    <origin xyz="3.469446951953614e-18 -0.0024339182743748355 -0.03140545776213821" rpy="1.4231890647798227e-16 1.222505591786931 -1.5707963267948966"/>
    <parent link="r_hand_ring_2"/>
    <child link="r_hand_ring_skin_0"/>
  </joint>
  <link name="r_hand_ring_skin_1"/>
  <joint name="r_hand_ring_skin_1_fixed_joint" type="fixed">
    <origin xyz="0.0032999999999999974 -0.0031311478434340456 -0.03328041798373782" rpy="1.4138064386867392e-16 1.2200948955791715 -1.5707963267948966"/>
    <parent link="r_hand_ring_2"/>
    <child link="r_hand_ring_skin_1"/>
  </joint>
  <link name="r_hand_ring_skin_10"/>
  <joint name="r_hand_ring_skin_10_fixed_joint" type="fixed">
    <origin xyz="-0.0033000000000000113 -0.004081941248315957 -0.03776668456986537" rpy="3.1415926535897927 1.5049109781350702 1.5707963267948977"/>
    <parent link="r_hand_ring_2"/>
    <child link="r_hand_ring_skin_10"/>
  </joint>
  <link name="r_hand_ring_skin_11"/>
  <joint name="r_hand_ring_skin_11_fixed_joint" type="fixed">
    <origin xyz="-0.0033000000000000026 -0.0031311478434340456 -0.033280417983737876" rpy="1.4138064386867392e-16 1.2200948955791715 -1.5707963267948966"/>
    <parent link="r_hand_ring_2"/>
    <child link="r_hand_ring_skin_11"/>
  </joint>
  <link name="r_hand_ring_skin_2"/>
  <joint name="r_hand_ring_skin_2_fixed_joint" type="fixed">
    <origin xyz="1.214306433183765e-17 -0.0037582418957782804 -0.035192049382594015" rpy="1.324114038587985e-16 1.305681325969319 -1.5707963267948966"/>
    <parent link="r_hand_ring_2"/>
    <child link="r_hand_ring_skin_2"/>
  </joint>
  <link name="r_hand_ring_skin_3"/>
  <joint name="r_hand_ring_skin_3_fixed_joint" type="fixed">
    <origin xyz="0.003299999999999987 -0.004081941248315901 -0.03776668456986537" rpy="3.1415926535897927 1.5049109781350702 1.5707963267948974"/>
    <parent link="r_hand_ring_2"/>
    <child link="r_hand_ring_skin_3"/>
  </joint>
  <link name="r_hand_ring_skin_4"/>
  <joint name="r_hand_ring_skin_4_fixed_joint" type="fixed">
    <origin xyz="0.005929525942276352 -0.0011923209501843446 -0.03799999999179421" rpy="-3.1415926295995895 1.2994442254243346 2.777155565437974"/>
    <parent link="r_hand_ring_2"/>
    <child link="r_hand_ring_skin_4"/>
  </joint>
  <link name="r_hand_ring_skin_5"/>
  <joint name="r_hand_ring_skin_5_fixed_joint" type="fixed">
    <origin xyz="-1.214306433183765e-17 -0.0034840924374092974 -0.03982136609465514" rpy="3.141592653589793 1.0887513366805477 1.570796326794897"/>
    <parent link="r_hand_ring_2"/>
    <child link="r_hand_ring_skin_5"/>
  </joint>
  <link name="r_hand_ring_skin_6"/>
  <joint name="r_hand_ring_skin_6_fixed_joint" type="fixed">
    <origin xyz="0.0032999999999999974 -0.0018288020063398913 -0.04176963439156578" rpy="-3.141592645661621 0.7788155932536848 2.53206776215024"/>
    <parent link="r_hand_ring_2"/>
    <child link="r_hand_ring_skin_6"/>
  </joint>
  <link name="r_hand_ring_skin_7"/>
  <joint name="r_hand_ring_skin_7_fixed_joint" type="fixed">
    <origin xyz="3.469446951953614e-18 -2.901849620998431e-4 -0.04325964090988388" rpy="-3.141592653586272 0.6209480251844615 1.5712124826341647"/>
    <parent link="r_hand_ring_2"/>
    <child link="r_hand_ring_skin_7"/>
  </joint>
  <link name="r_hand_ring_skin_8"/>
  <joint name="r_hand_ring_skin_8_fixed_joint" type="fixed">
    <origin xyz="-0.0032999999999999956 -0.0018288020063398913 -0.04176963439156589" rpy="3.141592645661621 0.7788155932536843 0.6095248914395535"/>
    <parent link="r_hand_ring_2"/>
    <child link="r_hand_ring_skin_8"/>
  </joint>
  <link name="r_hand_ring_skin_9"/>
  <joint name="r_hand_ring_skin_9_fixed_joint" type="fixed">
    <origin xyz="-0.0059295259422763695 -0.0011923209501843723 -0.03799999999179421" rpy="3.141592629599589 1.2994442254243332 0.36443708815181947"/>
    <parent link="r_hand_ring_2"/>
    <child link="r_hand_ring_skin_9"/>
  </joint>
  <link name="r_sole"/>
  <joint name="r_sole_fixed_joint" type="fixed">
    <origin xyz="0.05963 -1.3877787807814457e-17 -0.02429999999999999" rpy="0 3.1371750050201436e-30 0"/>
    <parent link="r_foot_rear"/>
    <child link="r_sole"/>
  </joint>
  <link name="r_hand_thumb_skin_0"/>
  <joint name="r_hand_thumb_skin_0_fixed_joint" type="fixed">
    <origin xyz="0.02640545777888894 -0.002433918058236617 0" rpy="-1.5707963267948961 2.220446049250313e-16 2.793301925464017"/>
    <parent link="r_hand_thumb_3"/>
    <child link="r_hand_thumb_skin_0"/>
  </joint>
  <link name="r_hand_thumb_skin_1"/>
  <joint name="r_hand_thumb_skin_1_fixed_joint" type="fixed">
    <origin xyz="0.028280418005286932 -0.0031311476143919825 0.003300000000000025" rpy="-1.570796326794896 -7.216449660063518e-16 -2.1816615649914324"/>
    <parent link="r_hand_thumb_3"/>
    <child link="r_hand_thumb_skin_1"/>
  </joint>
  <link name="r_hand_thumb_skin_10"/>
  <joint name="r_hand_thumb_skin_10_fixed_joint" type="fixed">
    <origin xyz="0.03276668459795807 -0.00408194098839848 -0.003300000000000025" rpy="-1.5707963267948961 5.551115123125783e-17 -3.075707298047779"/>
    <parent link="r_hand_thumb_3"/>
    <child link="r_hand_thumb_skin_10"/>
  </joint>
  <link name="r_hand_thumb_skin_11"/>
  <joint name="r_hand_thumb_skin_11_fixed_joint" type="fixed">
    <origin xyz="0.028280418005286953 -0.0031311476143919825 -0.0032999999999999974" rpy="-1.5707963267948961 1.6653345369377348e-16 2.790891229256258"/>
    <parent link="r_hand_thumb_3"/>
    <child link="r_hand_thumb_skin_11"/>
  </joint>
  <link name="r_hand_thumb_skin_2"/>
  <joint name="r_hand_thumb_skin_2_fixed_joint" type="fixed">
    <origin xyz="0.030192049408458994 -0.003758241653580019 0" rpy="-1.5707963267948961 2.7755575615628914e-16 2.8764776596464054"/>
    <parent link="r_hand_thumb_3"/>
    <child link="r_hand_thumb_skin_2"/>
  </joint>
  <link name="r_hand_thumb_skin_3"/>
  <joint name="r_hand_thumb_skin_3_fixed_joint" type="fixed">
    <origin xyz="0.03276668459795803 -0.004081940988398508 0.0032999999999999974" rpy="-1.570796326794896 -8.326672684688674e-16 -2.1816615649914324"/>
    <parent link="r_hand_thumb_3"/>
    <child link="r_hand_thumb_skin_3"/>
  </joint>
  <link name="r_hand_thumb_skin_4"/>
  <joint name="r_hand_thumb_skin_4_fixed_joint" type="fixed">
    <origin xyz="0.03300000000000006 -0.0011923206886612636 0.005929525942276415" rpy="-3.1415926535897927 2.220446049250313e-16 -3.1415926535883125"/>
    <parent link="r_hand_thumb_3"/>
    <child link="r_hand_thumb_skin_4"/>
  </joint>
  <link name="r_hand_thumb_skin_5"/>
  <joint name="r_hand_thumb_skin_5_fixed_joint" type="fixed">
    <origin xyz="0.03482136611863341 -0.0034840921633512434 0" rpy="-1.5707963267948961 -1.6653345369377348e-16 -2.659547656593256"/>
    <parent link="r_hand_thumb_3"/>
    <child link="r_hand_thumb_skin_5"/>
  </joint>
  <link name="r_hand_thumb_skin_6"/>
  <joint name="r_hand_thumb_skin_6_fixed_joint" type="fixed">
    <origin xyz="0.036769634404151964 -0.0018288017188734518 0.0032999999999999974" rpy="1.570796326794897 -2.220446049250313e-16 -2.399827721490722"/>
    <parent link="r_hand_thumb_3"/>
    <child link="r_hand_thumb_skin_6"/>
  </joint>
  <link name="r_hand_thumb_skin_7"/>
  <joint name="r_hand_thumb_skin_7_fixed_joint" type="fixed">
    <origin xyz="0.03825964091188099 -2.901846643789119e-4 0" rpy="-1.5705542046266139 -3.3847088311368976e-4 -2.191744386072823"/>
    <parent link="r_hand_thumb_3"/>
    <child link="r_hand_thumb_skin_7"/>
  </joint>
  <link name="r_hand_thumb_skin_8"/>
  <joint name="r_hand_thumb_skin_8_fixed_joint" type="fixed">
    <origin xyz="0.036769634404152 -0.0018288017188734518 -0.003300000000000025" rpy="-2.3592109405351698 0.6231239758157898 -2.6159603834403367"/>
    <parent link="r_hand_thumb_3"/>
    <child link="r_hand_thumb_skin_8"/>
  </joint>
  <link name="r_hand_thumb_skin_9"/>
  <joint name="r_hand_thumb_skin_9_fixed_joint" type="fixed">
    <origin xyz="0.03300000000000001 -0.0011923206886612636 -0.005929525942276359" rpy="-2.7645689049691455 0.25312544974719 -3.042753660865159"/>
    <parent link="r_hand_thumb_3"/>
    <child link="r_hand_thumb_skin_9"/>
  </joint>
  <link name="waist_imu_0"/>
  <joint name="waist_imu_0_fixed_joint" type="fixed">
    <origin xyz="0.0606 -0.00639428 0.01745" rpy="1.5708 -0.000105208 -1.5708"/>
    <parent link="torso_1"/>
    <child link="waist_imu_0"/>
    <dynamics damping="0.1"/>
  </joint>
  <gazebo>
    <plugin name="ergocub_yarp_gazebo_plugin_IMU" filename="libgazebo_yarp_imu.so">
      <yarpConfigurationFile>model://ergoCub/conf/gazebo_ergocub_waist_inertial.ini</yarpConfigurationFile>
    </plugin>
  </gazebo>
  <gazebo reference="torso_1">
    <sensor name="waist_imu_0" type="imu">
      <always_on>1</always_on>
      <update_rate>100</update_rate>
      <pose>0.0606 -0.00639428 0.01745 1.5708 -0.000105208 -1.5708</pose>
      <plugin name="ergocub_yarp_gazebo_plugin_IMU" filename="libgazebo_yarp_imu.so">
        <yarpConfigurationFile>model://ergoCub/conf/gazebo_ergocub_waist_inertial.ini</yarpConfigurationFile>
      </plugin>
    </sensor>
  </gazebo>
  <gazebo>
    <plugin name="gzyarp::Imu" filename="gz-sim-yarp-imu-system">
      <yarpConfigurationFile>model://ergoCub/conf/gazebo_ergocub_waist_inertial.ini</yarpConfigurationFile>
    </plugin>
  </gazebo>
  <sensor name="waist_imu_0" type="accelerometer">
    <parent link="torso_1"/>
    <origin xyz="0.0606 -0.00639428 0.01745" rpy="1.5708 -0.000105208 -1.5708"/>
  </sensor>
  <link name="base_link"/>
  <joint name="base_link_fixed_joint" type="fixed">
    <origin xyz="0 0 0" rpy="0 -0 0"/>
    <axis xyz="0 0 0"/>
    <parent link="root_link"/>
    <child link="base_link"/>
  </joint>
  <gazebo reference="r_arm_ft_sensor">
    <preserveFixedJoint>true</preserveFixedJoint>
    <!-- For compatibility with SDFormat < 4.4 -->
    <disableFixedJointLumping>true</disableFixedJointLumping>
  </gazebo>
  <gazebo reference="l_arm_ft_sensor">
    <preserveFixedJoint>true</preserveFixedJoint>
    <!-- For compatibility with SDFormat < 4.4 -->
    <disableFixedJointLumping>true</disableFixedJointLumping>
  </gazebo>
  <gazebo>
    <plugin name="gzyarp::ForceTorque" filename="gz-sim-yarp-forcetorque-system">
      <yarpConfigurationFile>model://ergoCub/conf/FT/gazebo_ergocub_left_arm_ft.ini</yarpConfigurationFile>
    </plugin>
  </gazebo>
  <gazebo>
    <plugin name="gzyarp::ForceTorque" filename="gz-sim-yarp-forcetorque-system">
      <yarpConfigurationFile>model://ergoCub/conf/FT/gazebo_ergocub_right_arm_ft.ini</yarpConfigurationFile>
    </plugin>
  </gazebo>
  <gazebo>
    <plugin name="gzyarp::Imu" filename="gz-sim-yarp-imu-system">
      <yarpConfigurationFile>model://ergoCub/conf/gazebo_ergocub_l_arm_ft_sensor_inertial.ini</yarpConfigurationFile>
    </plugin>
  </gazebo>
  <gazebo>
    <plugin name="gzyarp::Imu" filename="gz-sim-yarp-imu-system">
      <yarpConfigurationFile>model://ergoCub/conf/gazebo_ergocub_r_arm_ft_sensor_inertial.ini</yarpConfigurationFile>
    </plugin>
  </gazebo>
  <gazebo>
    <plugin name="controlboard_torso" filename="libgazebo_yarp_controlboard.so">
      <yarpConfigurationFile>model://ergoCub/conf/gazebo_ergocub_torso.ini</yarpConfigurationFile>
    </plugin>
  </gazebo>
  <gazebo>
    <plugin name="gzyarp::ControlBoard" filename="gz-sim-yarp-controlboard-system">
      <yarpConfigurationFile>model://ergoCub/conf/gazebo_ergocub_torso.ini</yarpConfigurationFile>
    </plugin>
  </gazebo>
  <gazebo reference="torso_pitch">
    <implicitSpringDamper>1</implicitSpringDamper>
  </gazebo>
  <gazebo reference="torso_roll">
    <implicitSpringDamper>1</implicitSpringDamper>
  </gazebo>
  <gazebo reference="torso_yaw">
    <implicitSpringDamper>1</implicitSpringDamper>
  </gazebo>
  <gazebo reference="r_shoulder_pitch">
    <implicitSpringDamper>1</implicitSpringDamper>
  </gazebo>
  <gazebo reference="r_shoulder_roll">
    <implicitSpringDamper>1</implicitSpringDamper>
  </gazebo>
  <gazebo reference="r_shoulder_yaw">
    <implicitSpringDamper>1</implicitSpringDamper>
  </gazebo>
  <gazebo reference="l_shoulder_pitch">
    <implicitSpringDamper>1</implicitSpringDamper>
  </gazebo>
  <gazebo reference="l_shoulder_roll">
    <implicitSpringDamper>1</implicitSpringDamper>
  </gazebo>
  <gazebo reference="l_shoulder_yaw">
    <implicitSpringDamper>1</implicitSpringDamper>
  </gazebo>
  <gazebo reference="l_leg_ft_sensor">
    <preserveFixedJoint>true</preserveFixedJoint>
    <!-- For compatibility with SDFormat < 4.4 -->
    <disableFixedJointLumping>true</disableFixedJointLumping>
  </gazebo>
  <gazebo reference="l_foot_front_ft_sensor">
    <preserveFixedJoint>true</preserveFixedJoint>
    <!-- For compatibility with SDFormat < 4.4 -->
    <disableFixedJointLumping>true</disableFixedJointLumping>
  </gazebo>
  <gazebo reference="l_foot_rear_ft_sensor">
    <preserveFixedJoint>true</preserveFixedJoint>
    <!-- For compatibility with SDFormat < 4.4 -->
    <disableFixedJointLumping>true</disableFixedJointLumping>
  </gazebo>
  <gazebo reference="l_foot_front">
    <collision>
      <surface>
        <bounce>
          <restitution_coefficient>0</restitution_coefficient>
          <threshold>100000</threshold>
        </bounce>
      </surface>
    </collision>
    <maxContacts>4</maxContacts>
    <kp>18000000</kp>
    <kd>100</kd>
    <maxVel>100</maxVel>
    <minDepth>0.0001</minDepth>
    <mu1>1</mu1>
    <mu2>1</mu2>
    <fdir1>0 0 0</fdir1>
  </gazebo>
  <gazebo reference="l_foot_rear">
    <collision>
      <surface>
        <bounce>
          <restitution_coefficient>0</restitution_coefficient>
          <threshold>100000</threshold>
        </bounce>
      </surface>
    </collision>
    <maxContacts>4</maxContacts>
    <kp>18000000</kp>
    <kd>100</kd>
    <maxVel>100</maxVel>
    <minDepth>0.0001</minDepth>
    <mu1>1</mu1>
    <mu2>1</mu2>
    <fdir1>0 0 0</fdir1>
  </gazebo>
  <gazebo>
    <plugin name="gzyarp::ForceTorque" filename="gz-sim-yarp-forcetorque-system">
      <yarpConfigurationFile>model://ergoCub/conf/FT/gazebo_ergocub_left_leg_ft.ini</yarpConfigurationFile>
    </plugin>
  </gazebo>
  <gazebo>
    <plugin name="gzyarp::ForceTorque" filename="gz-sim-yarp-forcetorque-system">
      <yarpConfigurationFile>model://ergoCub/conf/FT/gazebo_ergocub_left_foot_front_ft.ini</yarpConfigurationFile>
    </plugin>
  </gazebo>
  <gazebo>
    <plugin name="gzyarp::ForceTorque" filename="gz-sim-yarp-forcetorque-system">
      <yarpConfigurationFile>model://ergoCub/conf/FT/gazebo_ergocub_left_foot_rear_ft.ini</yarpConfigurationFile>
    </plugin>
  </gazebo>
  <gazebo>
    <plugin name="gzyarp::Imu" filename="gz-sim-yarp-imu-system">
      <yarpConfigurationFile>model://ergoCub/conf/gazebo_ergocub_l_foot_front_ft_sensor_inertial.ini</yarpConfigurationFile>
    </plugin>
  </gazebo>
  <gazebo>
    <plugin name="gzyarp::Imu" filename="gz-sim-yarp-imu-system">
      <yarpConfigurationFile>model://ergoCub/conf/gazebo_ergocub_l_foot_rear_ft_sensor_inertial.ini</yarpConfigurationFile>
    </plugin>
  </gazebo>
  <gazebo>
    <plugin name="gzyarp::Imu" filename="gz-sim-yarp-imu-system">
      <yarpConfigurationFile>model://ergoCub/conf/gazebo_ergocub_l_leg_ft_sensor_inertial.ini</yarpConfigurationFile>
    </plugin>
  </gazebo>
  <gazebo>
    <plugin name="controlboard_left_leg" filename="libgazebo_yarp_controlboard.so">
      <yarpConfigurationFile>model://ergoCub/conf/gazebo_ergocub_left_leg.ini</yarpConfigurationFile>
    </plugin>
  </gazebo>
  <gazebo>
    <plugin name="gzyarp::ControlBoard" filename="gz-sim-yarp-controlboard-system">
      <yarpConfigurationFile>model://ergoCub/conf/gazebo_ergocub_left_leg.ini</yarpConfigurationFile>
    </plugin>
  </gazebo>
  <gazebo reference="l_hip_pitch">
    <implicitSpringDamper>1</implicitSpringDamper>
  </gazebo>
  <gazebo reference="l_hip_roll">
    <implicitSpringDamper>1</implicitSpringDamper>
  </gazebo>
  <gazebo reference="l_hip_yaw">
    <implicitSpringDamper>1</implicitSpringDamper>
  </gazebo>
  <gazebo reference="l_knee">
    <implicitSpringDamper>1</implicitSpringDamper>
  </gazebo>
  <gazebo reference="l_ankle_pitch">
    <implicitSpringDamper>1</implicitSpringDamper>
  </gazebo>
  <gazebo reference="l_ankle_roll">
    <implicitSpringDamper>1</implicitSpringDamper>
  </gazebo>
  <gazebo reference="r_leg_ft_sensor">
    <preserveFixedJoint>true</preserveFixedJoint>
    <!-- For compatibility with SDFormat < 4.4 -->
    <disableFixedJointLumping>true</disableFixedJointLumping>
  </gazebo>
  <gazebo reference="r_foot_front_ft_sensor">
    <preserveFixedJoint>true</preserveFixedJoint>
    <!-- For compatibility with SDFormat < 4.4 -->
    <disableFixedJointLumping>true</disableFixedJointLumping>
  </gazebo>
  <gazebo reference="r_foot_rear_ft_sensor">
    <preserveFixedJoint>true</preserveFixedJoint>
    <!-- For compatibility with SDFormat < 4.4 -->
    <disableFixedJointLumping>true</disableFixedJointLumping>
  </gazebo>
  <gazebo reference="r_foot_front">
    <collision>
      <surface>
        <bounce>
          <restitution_coefficient>0</restitution_coefficient>
          <threshold>100000</threshold>
        </bounce>
      </surface>
    </collision>
    <maxContacts>4</maxContacts>
    <kp>18000000</kp>
    <kd>100</kd>
    <maxVel>100</maxVel>
    <minDepth>0.0001</minDepth>
    <mu1>1</mu1>
    <mu2>1</mu2>
    <fdir1>0 0 0</fdir1>
  </gazebo>
  <gazebo reference="r_foot_rear">
    <collision>
      <surface>
        <bounce>
          <restitution_coefficient>0</restitution_coefficient>
          <threshold>100000</threshold>
        </bounce>
      </surface>
    </collision>
    <maxContacts>4</maxContacts>
    <kp>18000000</kp>
    <kd>100</kd>
    <maxVel>100</maxVel>
    <minDepth>0.0001</minDepth>
    <mu1>1</mu1>
    <mu2>1</mu2>
    <fdir1>0 0 0</fdir1>
  </gazebo>
  <gazebo>
    <plugin name="gzyarp::ForceTorque" filename="gz-sim-yarp-forcetorque-system">
      <yarpConfigurationFile>model://ergoCub/conf/FT/gazebo_ergocub_right_leg_ft.ini</yarpConfigurationFile>
    </plugin>
  </gazebo>
  <gazebo>
    <plugin name="gzyarp::ForceTorque" filename="gz-sim-yarp-forcetorque-system">
      <yarpConfigurationFile>model://ergoCub/conf/FT/gazebo_ergocub_right_foot_front_ft.ini</yarpConfigurationFile>
    </plugin>
  </gazebo>
  <gazebo>
    <plugin name="gzyarp::ForceTorque" filename="gz-sim-yarp-forcetorque-system">
      <yarpConfigurationFile>model://ergoCub/conf/FT/gazebo_ergocub_right_foot_rear_ft.ini</yarpConfigurationFile>
    </plugin>
  </gazebo>
  <gazebo>
    <plugin name="gzyarp::Imu" filename="gz-sim-yarp-imu-system">
      <yarpConfigurationFile>model://ergoCub/conf/gazebo_ergocub_r_foot_front_ft_sensor_inertial.ini</yarpConfigurationFile>
    </plugin>
  </gazebo>
  <gazebo>
    <plugin name="gzyarp::Imu" filename="gz-sim-yarp-imu-system">
      <yarpConfigurationFile>model://ergoCub/conf/gazebo_ergocub_r_foot_rear_ft_sensor_inertial.ini</yarpConfigurationFile>
    </plugin>
  </gazebo>
  <gazebo>
    <plugin name="gzyarp::Imu" filename="gz-sim-yarp-imu-system">
      <yarpConfigurationFile>model://ergoCub/conf/gazebo_ergocub_r_leg_ft_sensor_inertial.ini</yarpConfigurationFile>
    </plugin>
  </gazebo>
  <gazebo>
    <plugin name="controlboard_right_leg" filename="libgazebo_yarp_controlboard.so">
      <yarpConfigurationFile>model://ergoCub/conf/gazebo_ergocub_right_leg.ini</yarpConfigurationFile>
    </plugin>
  </gazebo>
  <gazebo>
    <plugin name="gzyarp::ControlBoard" filename="gz-sim-yarp-controlboard-system">
      <yarpConfigurationFile>model://ergoCub/conf/gazebo_ergocub_right_leg.ini</yarpConfigurationFile>
    </plugin>
  </gazebo>
  <gazebo reference="r_hip_pitch">
    <implicitSpringDamper>1</implicitSpringDamper>
  </gazebo>
  <gazebo reference="r_hip_roll">
    <implicitSpringDamper>1</implicitSpringDamper>
  </gazebo>
  <gazebo reference="r_hip_yaw">
    <implicitSpringDamper>1</implicitSpringDamper>
  </gazebo>
  <gazebo reference="r_knee">
    <implicitSpringDamper>1</implicitSpringDamper>
  </gazebo>
  <gazebo reference="r_ankle_pitch">
    <implicitSpringDamper>1</implicitSpringDamper>
  </gazebo>
  <gazebo reference="r_ankle_roll">
    <implicitSpringDamper>1</implicitSpringDamper>
  </gazebo>
  <gazebo>
    <plugin name="gzyarp::Imu" filename="gz-sim-yarp-imu-system">
      <yarpConfigurationFile>model://ergoCub/conf/gazebo_ergocub_inertial.ini</yarpConfigurationFile>
    </plugin>
  </gazebo>
  <gazebo>
    <plugin name="gzyarp::Imu" filename="gz-sim-yarp-imu-system">
      <yarpConfigurationFile>model://ergoCub/conf/gazebo_ergocub_realsense_inertial.ini</yarpConfigurationFile>
    </plugin>
  </gazebo>
  <gazebo>
    <plugin name="gzyarp::Laser" filename="gz-sim-yarp-laser-system">
      <yarpConfigurationFile>model://ergoCub/conf/sensors/gazebo_ergocub_lidar.ini</yarpConfigurationFile>
    </plugin>
  </gazebo>
  <gazebo>
    <plugin name="controlboard_head" filename="libgazebo_yarp_controlboard.so">
      <yarpConfigurationFile>model://ergoCub/conf/gazebo_ergocub_head.ini</yarpConfigurationFile>
    </plugin>
  </gazebo>
  <gazebo>
    <plugin name="gzyarp::ControlBoard" filename="gz-sim-yarp-controlboard-system">
      <yarpConfigurationFile>model://ergoCub/conf/gazebo_ergocub_head.ini</yarpConfigurationFile>
    </plugin>
  </gazebo>
  <gazebo reference="neck_pitch">
    <implicitSpringDamper>1</implicitSpringDamper>
  </gazebo>
  <gazebo reference="neck_roll">
    <implicitSpringDamper>1</implicitSpringDamper>
  </gazebo>
  <gazebo reference="neck_yaw">
    <implicitSpringDamper>1</implicitSpringDamper>
  </gazebo>
  <gazebo>
    <plugin name="controlboard_left_arm_no_hand" filename="libgazebo_yarp_controlboard.so">
      <yarpConfigurationFile>model://ergoCub/conf/gazebo_ergocub_left_arm.ini</yarpConfigurationFile>
      <initialConfiguration>-0.52 0.52 0 0.785 0 0 0.0</initialConfiguration>
    </plugin>
  </gazebo>
  <gazebo>
    <plugin name="gzyarp::ControlBoard" filename="gz-sim-yarp-controlboard-system">
      <yarpConfigurationFile>model://ergoCub/conf/gazebo_ergocub_left_arm.ini</yarpConfigurationFile>
      <initialConfiguration>-0.52 0.52 0 0.785 0 0 0.0</initialConfiguration>
    </plugin>
  </gazebo>
  <gazebo>
    <plugin name="controlboard_left_hand" filename="libgazebo_yarp_controlboard.so">
      <yarpConfigurationFile>model://ergoCub/conf/gazebo_ergocub_left_hand_mk5_1.ini</yarpConfigurationFile>
    </plugin>
  </gazebo>
  <gazebo reference="l_shoulder_pitch">
    <implicitSpringDamper>1</implicitSpringDamper>
  </gazebo>
  <gazebo reference="l_shoulder_roll">
    <implicitSpringDamper>1</implicitSpringDamper>
  </gazebo>
  <gazebo reference="l_shoulder_yaw">
    <implicitSpringDamper>1</implicitSpringDamper>
  </gazebo>
  <gazebo reference="l_elbow">
    <implicitSpringDamper>1</implicitSpringDamper>
  </gazebo>
  <gazebo reference="l_wrist_roll">
    <implicitSpringDamper>1</implicitSpringDamper>
  </gazebo>
  <gazebo reference="l_wrist_pitch">
    <implicitSpringDamper>1</implicitSpringDamper>
  </gazebo>
  <gazebo reference="l_wrist_yaw">
    <implicitSpringDamper>1</implicitSpringDamper>
  </gazebo>
  <gazebo>
    <plugin name="controlboard_right_arm_no_hand" filename="libgazebo_yarp_controlboard.so">
      <yarpConfigurationFile>model://ergoCub/conf/gazebo_ergocub_right_arm.ini</yarpConfigurationFile>
      <initialConfiguration>-0.52 0.52 0 0.785 0 0 0.0</initialConfiguration>
    </plugin>
  </gazebo>
  <gazebo>
    <plugin name="gzyarp::ControlBoard" filename="gz-sim-yarp-controlboard-system">
      <yarpConfigurationFile>model://ergoCub/conf/gazebo_ergocub_right_arm.ini</yarpConfigurationFile>
      <initialConfiguration>-0.52 0.52 0 0.785 0 0 0.0</initialConfiguration>
    </plugin>
  </gazebo>
  <gazebo>
    <plugin name="controlboard_right_hand" filename="libgazebo_yarp_controlboard.so">
      <yarpConfigurationFile>model://ergoCub/conf/gazebo_ergocub_right_hand_mk5_1.ini</yarpConfigurationFile>
    </plugin>
  </gazebo>
  <gazebo reference="r_shoulder_pitch">
    <implicitSpringDamper>1</implicitSpringDamper>
  </gazebo>
  <gazebo reference="r_shoulder_roll">
    <implicitSpringDamper>1</implicitSpringDamper>
  </gazebo>
  <gazebo reference="r_shoulder_yaw">
    <implicitSpringDamper>1</implicitSpringDamper>
  </gazebo>
  <gazebo reference="r_elbow">
    <implicitSpringDamper>1</implicitSpringDamper>
  </gazebo>
  <gazebo reference="r_wrist_roll">
    <implicitSpringDamper>1</implicitSpringDamper>
  </gazebo>
  <gazebo reference="r_wrist_pitch">
    <implicitSpringDamper>1</implicitSpringDamper>
  </gazebo>
  <gazebo reference="r_wrist_yaw">
    <implicitSpringDamper>1</implicitSpringDamper>
  </gazebo>
  <gazebo>
    <plugin name="robotinterface" filename="libgazebo_yarp_robotinterface.so">
      <yarpRobotInterfaceConfigurationFile>model://ergoCub/conf/ergocub.xml</yarpRobotInterfaceConfigurationFile>
    </plugin>
  </gazebo>
  <gazebo>
    <plugin name="gzyarp::RobotInterface" filename="gz-sim-yarp-robotinterface-system">
      <yarpRobotInterfaceConfigurationFile>model://ergoCub/conf/ergocub_gz_sim.xml</yarpRobotInterfaceConfigurationFile>
    </plugin>
  </gazebo>
  <gazebo>
    <plugin filename="gz-sim-forcetorque-system" name="gz::sim::systems::ForceTorque"/>
  </gazebo>
  <gazebo>
    <plugin filename="gz-sim-imu-system" name="gz::sim::systems::Imu"/>
  </gazebo>
  <gazebo>
    <pose>0.000000 0.000000 0.800000 0.000000 0.000000 0.000000</pose>
  </gazebo>
  <gazebo reference="l_arm_ft_sensor">
    <sensor name="l_arm_ft" type="force_torque">
      <always_on>1</always_on>
      <update_rate>100</update_rate>
      <force_torque>
        <frame>sensor</frame>
        <measure_direction>child_to_parent</measure_direction>
      </force_torque>
      <pose>-3.46945e-18 0 0 3.14159 1.94289e-16 -1.5708 </pose>
      <plugin name="left_arm_ft_plugin" filename="libgazebo_yarp_forcetorque.so">
        <yarpConfigurationFile>model://ergoCub/conf/FT/gazebo_ergocub_left_arm_ft.ini</yarpConfigurationFile>
      </plugin>
    </sensor>
  </gazebo>
  <sensor name="l_arm_ft" type="force_torque">
    <parent joint="l_arm_ft_sensor"/>
    <force_torque>
      <frame>sensor</frame>
      <measure_direction>child_to_parent</measure_direction>
    </force_torque>
    <origin rpy="3.14159 1.94289e-16 -1.5708 " xyz="-3.46945e-18 0 0"/>
  </sensor>
  <gazebo reference="l_foot_front_ft_sensor">
    <sensor name="l_foot_front_ft" type="force_torque">
      <always_on>1</always_on>
      <update_rate>100</update_rate>
      <force_torque>
        <frame>sensor</frame>
        <measure_direction>parent_to_child</measure_direction>
      </force_torque>
      <pose>0 0 0 1.25667e-16 2.20112e-17 -2.0944 </pose>
      <plugin name="left_foot_front_ft_plugin" filename="libgazebo_yarp_forcetorque.so">
        <yarpConfigurationFile>model://ergoCub/conf/FT/gazebo_ergocub_left_foot_front_ft.ini</yarpConfigurationFile>
      </plugin>
    </sensor>
  </gazebo>
  <sensor name="l_foot_front_ft" type="force_torque">
    <parent joint="l_foot_front_ft_sensor"/>
    <force_torque>
      <frame>sensor</frame>
      <measure_direction>parent_to_child</measure_direction>
    </force_torque>
    <origin rpy="1.25667e-16 2.20112e-17 -2.0944 " xyz="0 0 0"/>
  </sensor>
  <gazebo reference="l_foot_rear_ft_sensor">
    <sensor name="l_foot_rear_ft" type="force_torque">
      <always_on>1</always_on>
      <update_rate>100</update_rate>
      <force_torque>
        <frame>sensor</frame>
        <measure_direction>parent_to_child</measure_direction>
      </force_torque>
      <pose>0 0 0 1.25667e-16 2.20112e-17 -2.0944 </pose>
      <plugin name="left_foot_rear_ft_plugin" filename="libgazebo_yarp_forcetorque.so">
        <yarpConfigurationFile>model://ergoCub/conf/FT/gazebo_ergocub_left_foot_rear_ft.ini</yarpConfigurationFile>
      </plugin>
    </sensor>
  </gazebo>
  <sensor name="l_foot_rear_ft" type="force_torque">
    <parent joint="l_foot_rear_ft_sensor"/>
    <force_torque>
      <frame>sensor</frame>
      <measure_direction>parent_to_child</measure_direction>
    </force_torque>
    <origin rpy="1.25667e-16 2.20112e-17 -2.0944 " xyz="0 0 0"/>
  </sensor>
  <gazebo reference="l_leg_ft_sensor">
    <sensor name="l_leg_ft" type="force_torque">
      <always_on>1</always_on>
      <update_rate>100</update_rate>
      <force_torque>
        <frame>sensor</frame>
        <measure_direction>child_to_parent</measure_direction>
      </force_torque>
      <pose>5.20417e-18 0 0 3.14159 -2.02132e-15 2.61799 </pose>
      <plugin name="left_leg_ft_plugin" filename="libgazebo_yarp_forcetorque.so">
        <yarpConfigurationFile>model://ergoCub/conf/FT/gazebo_ergocub_left_leg_ft.ini</yarpConfigurationFile>
      </plugin>
    </sensor>
  </gazebo>
  <sensor name="l_leg_ft" type="force_torque">
    <parent joint="l_leg_ft_sensor"/>
    <force_torque>
      <frame>sensor</frame>
      <measure_direction>child_to_parent</measure_direction>
    </force_torque>
    <origin rpy="3.14159 -2.02132e-15 2.61799 " xyz="5.20417e-18 0 0"/>
  </sensor>
  <gazebo reference="r_arm_ft_sensor">
    <sensor name="r_arm_ft" type="force_torque">
      <always_on>1</always_on>
      <update_rate>100</update_rate>
      <force_torque>
        <frame>sensor</frame>
        <measure_direction>child_to_parent</measure_direction>
      </force_torque>
      <pose>0 0 0 -3.14159 -2.77556e-17 1.5708 </pose>
      <plugin name="right_arm_ft_plugin" filename="libgazebo_yarp_forcetorque.so">
        <yarpConfigurationFile>model://ergoCub/conf/FT/gazebo_ergocub_right_arm_ft.ini</yarpConfigurationFile>
      </plugin>
    </sensor>
  </gazebo>
  <sensor name="r_arm_ft" type="force_torque">
    <parent joint="r_arm_ft_sensor"/>
    <force_torque>
      <frame>sensor</frame>
      <measure_direction>child_to_parent</measure_direction>
    </force_torque>
    <origin rpy="-3.14159 -2.77556e-17 1.5708 " xyz="0 0 0"/>
  </sensor>
  <gazebo reference="r_foot_front_ft_sensor">
    <sensor name="r_foot_front_ft" type="force_torque">
      <always_on>1</always_on>
      <update_rate>100</update_rate>
      <force_torque>
        <frame>sensor</frame>
        <measure_direction>parent_to_child</measure_direction>
      </force_torque>
      <pose>0 1.38778e-17 1.11022e-16 -1.0903e-16 -1.44222e-16 -2.0944 </pose>
      <plugin name="right_foot_front_ft_plugin" filename="libgazebo_yarp_forcetorque.so">
        <yarpConfigurationFile>model://ergoCub/conf/FT/gazebo_ergocub_right_foot_front_ft.ini</yarpConfigurationFile>
      </plugin>
    </sensor>
  </gazebo>
  <sensor name="r_foot_front_ft" type="force_torque">
    <parent joint="r_foot_front_ft_sensor"/>
    <force_torque>
      <frame>sensor</frame>
      <measure_direction>parent_to_child</measure_direction>
    </force_torque>
    <origin rpy="-1.0903e-16 -1.44222e-16 -2.0944 " xyz="0 1.38778e-17 1.11022e-16"/>
  </sensor>
  <gazebo reference="r_foot_rear_ft_sensor">
    <sensor name="r_foot_rear_ft" type="force_torque">
      <always_on>1</always_on>
      <update_rate>100</update_rate>
      <force_torque>
        <frame>sensor</frame>
        <measure_direction>parent_to_child</measure_direction>
      </force_torque>
      <pose>3.46945e-18 0 0 -1.0903e-16 -1.44222e-16 -2.0944 </pose>
      <plugin name="right_foot_rear_ft_plugin" filename="libgazebo_yarp_forcetorque.so">
        <yarpConfigurationFile>model://ergoCub/conf/FT/gazebo_ergocub_right_foot_rear_ft.ini</yarpConfigurationFile>
      </plugin>
    </sensor>
  </gazebo>
  <sensor name="r_foot_rear_ft" type="force_torque">
    <parent joint="r_foot_rear_ft_sensor"/>
    <force_torque>
      <frame>sensor</frame>
      <measure_direction>parent_to_child</measure_direction>
    </force_torque>
    <origin rpy="-1.0903e-16 -1.44222e-16 -2.0944 " xyz="3.46945e-18 0 0"/>
  </sensor>
  <gazebo reference="r_leg_ft_sensor">
    <sensor name="r_leg_ft" type="force_torque">
      <always_on>1</always_on>
      <update_rate>100</update_rate>
      <force_torque>
        <frame>sensor</frame>
        <measure_direction>child_to_parent</measure_direction>
      </force_torque>
      <pose>1.21431e-17 2.77556e-17 5.55112e-17 3.14159 2.98881e-16 -2.61799 </pose>
      <plugin name="right_leg_ft_plugin" filename="libgazebo_yarp_forcetorque.so">
        <yarpConfigurationFile>model://ergoCub/conf/FT/gazebo_ergocub_right_leg_ft.ini</yarpConfigurationFile>
      </plugin>
    </sensor>
  </gazebo>
  <sensor name="r_leg_ft" type="force_torque">
    <parent joint="r_leg_ft_sensor"/>
    <force_torque>
      <frame>sensor</frame>
      <measure_direction>child_to_parent</measure_direction>
    </force_torque>
    <origin rpy="3.14159 2.98881e-16 -2.61799 " xyz="1.21431e-17 2.77556e-17 5.55112e-17"/>
  </sensor>
  <gazebo reference="head">
    <sensor name="head_imu_0" type="imu">
      <always_on>1</always_on>
      <update_rate>100.000000</update_rate>
      <pose>-0.0043 -0.0055 0.0382345 -3.14159 -9.68848e-15 1.5708 </pose>
      <plugin name="ergocub_yarp_gazebo_plugin_IMU" filename="libgazebo_yarp_imu.so">
        <yarpConfigurationFile>model://ergoCub/conf/gazebo_ergocub_inertial.ini</yarpConfigurationFile>
      </plugin>
    </sensor>
  </gazebo>
  <sensor name="head_imu_0" type="accelerometer">
    <parent link="head"/>
    <origin rpy="-3.14159 -9.68848e-15 1.5708 " xyz="-0.0043 -0.0055 0.0382345"/>
  </sensor>
  <gazebo reference="realsense">
    <sensor name="realsense_head_depth" type="depth">
      <always_on>1</always_on>
      <update_rate>30.000000</update_rate>
      <pose>0.00751548 -0.0115 1.73521e-08 -1.5708 3.75968e-16 -1.5708 </pose>
      <camera name="intel_realsense_depth_camera">
        <pose>0 0 0 -1.57079 -1.57079 3.14159</pose>
        <horizontal_fov>1.2217</horizontal_fov>
        <distortion>
          <k1>0</k1>
          <k2>0</k2>
          <k3>0</k3>
          <p1>0</p1>
          <p2>0</p2>
          <center>319.5 239.5</center>
        </distortion>
        <image>
          <width>640</width>
          <height>480</height>
          <format>R8G8B8</format>
        </image>
        <clip>
          <near>0.175</near>
          <far>3000</far>
        </clip>
      </camera>
      <visualize>false</visualize>
      <plugin name="ergocub_yarp_gazebo_plugin_depthCamera" filename="libgazebo_yarp_depthCamera.so">
        <yarpConfigurationFile>model://ergoCub/conf/sensors/gazebo_ergocub_rgbd_camera.ini</yarpConfigurationFile>
      </plugin>
    </sensor>
  </gazebo>
  <sensor name="realsense_head_depth" type="depth">
    <parent link="realsense"/>
    <origin rpy="-1.5708 3.75968e-16 -1.5708 " xyz="0.00751548 -0.0115 1.73521e-08"/>
  </sensor>
  <gazebo reference="realsense">
    <sensor name="realsense_head_rgb" type="camera">
      <always_on>1</always_on>
      <update_rate>30.000000</update_rate>
      <pose>0.00751548 -0.0115 1.73521e-08 -1.5708 3.75968e-16 -1.5708 </pose>
      <camera name="intel_realsense_rgb_camera">
        <pose>0 0 0 -1.57079 -1.57079 3.14159</pose>
        <horizontal_fov>1.2217</horizontal_fov>
        <distortion>
          <k1>0</k1>
          <k2>0</k2>
          <k3>0</k3>
          <p1>0</p1>
          <p2>0</p2>
          <center>319.5 239.5</center>
        </distortion>
        <image>
          <width>640</width>
          <height>480</height>
          <format>R8G8B8</format>
        </image>
        <clip>
          <near>0.02</near>
          <far>3000</far>
        </clip>
      </camera>
      <visualize>false</visualize>
      <plugin name="ergocub_yarp_gazebo_plugin_camera" filename="libgazebo_yarp_camera.so">
        <yarpConfigurationFile>model://ergoCub/conf/gazebo_ergocub_rgb_camera.ini</yarpConfigurationFile>
      </plugin>
    </sensor>
  </gazebo>
  <sensor name="realsense_head_rgb" type="camera">
    <parent link="realsense"/>
    <origin rpy="-1.5708 3.75968e-16 -1.5708 " xyz="0.00751548 -0.0115 1.73521e-08"/>
  </sensor>
  <gazebo reference="realsense">
    <sensor name="realsense_imu_0" type="imu">
      <always_on>1</always_on>
      <update_rate>100.000000</update_rate>
      <pose>0.00751548 0.01 1.73521e-08 -1.5708 3.75968e-16 -1.5708 </pose>
      <plugin name="ergocub_yarp_gazebo_plugin_IMU" filename="libgazebo_yarp_imu.so">
        <yarpConfigurationFile>model://ergoCub/conf/gazebo_ergocub_realsense_inertial.ini</yarpConfigurationFile>
      </plugin>
    </sensor>
  </gazebo>
  <sensor name="realsense_imu_0" type="accelerometer">
    <parent link="realsense"/>
    <origin rpy="-1.5708 3.75968e-16 -1.5708 " xyz="0.00751548 0.01 1.73521e-08"/>
  </sensor>
  <gazebo reference="head">
    <sensor name="lasersensor_head" type="ray">
      <always_on>1</always_on>
      <update_rate>100.000000</update_rate>
      <pose>5e-05 -1.93855e-15 0.134802 9.72195e-15 5.33157e-15 3.16761e-15 </pose>
      <always_on>1</always_on>
      <visualize>true</visualize>
      <update_rate>40</update_rate>
      <ray>
        <scan>
          <horizontal>
            <samples>360</samples>
            <resolution>2</resolution>
            <min_angle>0</min_angle>
            <max_angle>6.28</max_angle>
          </horizontal>
        </scan>
        <range>
          <min>0.04</min>
          <max>5</max>
          <resolution>0.01</resolution>
        </range>
        <noise>
          <type>gaussian</type>
          <mean>0</mean>
          <stddev>0.005</stddev>
        </noise>
      </ray>
      <plugin name="ergocub_yarp_gazebo_plugin_laser" filename="libgazebo_yarp_lasersensor.so">
        <yarpConfigurationFile>model://ergoCub/conf/sensors/gazebo_ergocub_lidar.ini</yarpConfigurationFile>
      </plugin>
    </sensor>
  </gazebo>
  <sensor name="lasersensor_head" type="ray">
    <parent link="head"/>
    <origin rpy="9.72195e-15 5.33157e-15 3.16761e-15 " xyz="5e-05 -1.93855e-15 0.134802"/>
  </sensor>
  <gazebo reference="l_foot_front">
    <sensor name="l_foot_front_ft_imu" type="imu">
      <always_on>1</always_on>
      <update_rate>100.000000</update_rate>
      <pose>0 0 0 1.25667e-16 2.20112e-17 -2.0944 </pose>
      <plugin name="ergocub_yarp_gazebo_plugin_IMU" filename="libgazebo_yarp_imu.so">
        <yarpConfigurationFile>model://ergoCub/conf/gazebo_ergocub_l_foot_front_ft_sensor_inertial.ini</yarpConfigurationFile>
      </plugin>
    </sensor>
  </gazebo>
  <sensor name="l_foot_front_ft_imu" type="accelerometer">
    <parent link="l_foot_front"/>
    <origin rpy="1.25667e-16 2.20112e-17 -2.0944 " xyz="0 0 0"/>
  </sensor>
  <gazebo reference="l_foot_rear">
    <sensor name="l_foot_rear_ft_imu" type="imu">
      <always_on>1</always_on>
      <update_rate>100.000000</update_rate>
      <pose>0 0 0 1.25667e-16 2.20112e-17 -2.0944 </pose>
      <plugin name="ergocub_yarp_gazebo_plugin_IMU" filename="libgazebo_yarp_imu.so">
        <yarpConfigurationFile>model://ergoCub/conf/gazebo_ergocub_l_foot_rear_ft_sensor_inertial.ini</yarpConfigurationFile>
      </plugin>
    </sensor>
  </gazebo>
  <sensor name="l_foot_rear_ft_imu" type="accelerometer">
    <parent link="l_foot_rear"/>
    <origin rpy="1.25667e-16 2.20112e-17 -2.0944 " xyz="0 0 0"/>
  </sensor>
  <gazebo reference="r_foot_front">
    <sensor name="r_foot_front_ft_imu" type="imu">
      <always_on>1</always_on>
      <update_rate>100.000000</update_rate>
      <pose>0 1.38778e-17 1.11022e-16 -1.0903e-16 -1.44222e-16 -2.0944 </pose>
      <plugin name="ergocub_yarp_gazebo_plugin_IMU" filename="libgazebo_yarp_imu.so">
        <yarpConfigurationFile>model://ergoCub/conf/gazebo_ergocub_r_foot_front_ft_sensor_inertial.ini</yarpConfigurationFile>
      </plugin>
    </sensor>
  </gazebo>
  <sensor name="r_foot_front_ft_imu" type="accelerometer">
    <parent link="r_foot_front"/>
    <origin rpy="-1.0903e-16 -1.44222e-16 -2.0944 " xyz="0 1.38778e-17 1.11022e-16"/>
  </sensor>
  <gazebo reference="r_foot_rear">
    <sensor name="r_foot_rear_ft_imu" type="imu">
      <always_on>1</always_on>
      <update_rate>100.000000</update_rate>
      <pose>3.46945e-18 0 0 -1.0903e-16 -1.44222e-16 -2.0944 </pose>
      <plugin name="ergocub_yarp_gazebo_plugin_IMU" filename="libgazebo_yarp_imu.so">
        <yarpConfigurationFile>model://ergoCub/conf/gazebo_ergocub_r_foot_rear_ft_sensor_inertial.ini</yarpConfigurationFile>
      </plugin>
    </sensor>
  </gazebo>
  <sensor name="r_foot_rear_ft_imu" type="accelerometer">
    <parent link="r_foot_rear"/>
    <origin rpy="-1.0903e-16 -1.44222e-16 -2.0944 " xyz="3.46945e-18 0 0"/>
  </sensor>
  <gazebo reference="l_shoulder_3">
    <sensor name="l_arm_ft_imu" type="imu">
      <always_on>1</always_on>
      <update_rate>100.000000</update_rate>
      <pose>-3.46945e-18 0 0 3.14159 1.94289e-16 -1.5708 </pose>
      <plugin name="ergocub_yarp_gazebo_plugin_IMU" filename="libgazebo_yarp_imu.so">
        <yarpConfigurationFile>model://ergoCub/conf/gazebo_ergocub_l_arm_ft_sensor_inertial.ini</yarpConfigurationFile>
      </plugin>
    </sensor>
  </gazebo>
  <sensor name="l_arm_ft_imu" type="accelerometer">
    <parent link="l_shoulder_3"/>
    <origin rpy="3.14159 1.94289e-16 -1.5708 " xyz="-3.46945e-18 0 0"/>
  </sensor>
  <gazebo reference="r_shoulder_3">
    <sensor name="r_arm_ft_imu" type="imu">
      <always_on>1</always_on>
      <update_rate>100.000000</update_rate>
      <pose>0 0 0 -3.14159 -2.77556e-17 1.5708 </pose>
      <plugin name="ergocub_yarp_gazebo_plugin_IMU" filename="libgazebo_yarp_imu.so">
        <yarpConfigurationFile>model://ergoCub/conf/gazebo_ergocub_r_arm_ft_sensor_inertial.ini</yarpConfigurationFile>
      </plugin>
    </sensor>
  </gazebo>
  <sensor name="r_arm_ft_imu" type="accelerometer">
    <parent link="r_shoulder_3"/>
    <origin rpy="-3.14159 -2.77556e-17 1.5708 " xyz="0 0 0"/>
  </sensor>
  <gazebo reference="l_hip_3">
    <sensor name="l_leg_ft_imu" type="imu">
      <always_on>1</always_on>
      <update_rate>100.000000</update_rate>
      <pose>5.20417e-18 0 0 3.14159 -2.02132e-15 2.61799 </pose>
      <plugin name="ergocub_yarp_gazebo_plugin_IMU" filename="libgazebo_yarp_imu.so">
        <yarpConfigurationFile>model://ergoCub/conf/gazebo_ergocub_l_leg_ft_sensor_inertial.ini</yarpConfigurationFile>
      </plugin>
    </sensor>
  </gazebo>
  <sensor name="l_leg_ft_imu" type="accelerometer">
    <parent link="l_hip_3"/>
    <origin rpy="3.14159 -2.02132e-15 2.61799 " xyz="5.20417e-18 0 0"/>
  </sensor>
  <gazebo reference="r_hip_3">
    <sensor name="r_leg_ft_imu" type="imu">
      <always_on>1</always_on>
      <update_rate>100.000000</update_rate>
      <pose>1.21431e-17 2.77556e-17 5.55112e-17 3.14159 2.98881e-16 -2.61799 </pose>
      <plugin name="ergocub_yarp_gazebo_plugin_IMU" filename="libgazebo_yarp_imu.so">
        <yarpConfigurationFile>model://ergoCub/conf/gazebo_ergocub_r_leg_ft_sensor_inertial.ini</yarpConfigurationFile>
      </plugin>
    </sensor>
  </gazebo>
  <sensor name="r_leg_ft_imu" type="accelerometer">
    <parent link="r_hip_3"/>
    <origin rpy="3.14159 2.98881e-16 -2.61799 " xyz="1.21431e-17 2.77556e-17 5.55112e-17"/>
  </sensor>
</robot>
